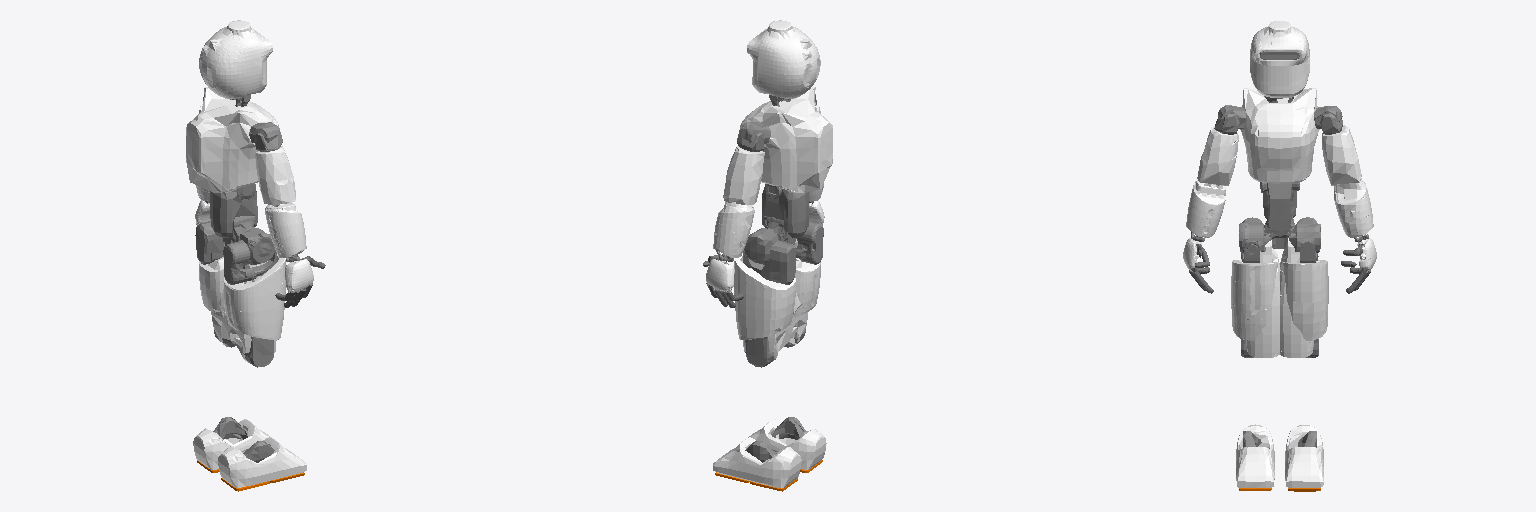
--- What the picture shows (computed from the rendered views, not written in the file) ---
3 views of the same robot in one strip: view 1: azimuth 30°, elevation 25°; view 2: azimuth 150°, elevation 25°; view 3: azimuth 270°, elevation 25° (orthographic).
Model ergoCub with 205 links and 204 joints (57 revolute, 147 fixed), rooted at root_link, posed all joints at 0 but 12 set to mid-range because 0 is outside their limits (r_middle_prox = 0.8356, r_pinkie_prox = 0.8352, r_ring_prox = 0.8356, r_thumb_prox = 0.8171, r_pinkie_dist = 0.828, r_index_prox = 0.8356, +6 more).
Links seen in each view (by area): view 1: chest, head, r_hip_3, r_ankle_2, r_upper_arm, r_forearm, l_ankle_2, torso_1, r_hip_2, l_hip_3, l_hip_2, r_hip_1 (+3 smaller); view 2: chest, head, l_hip_3, l_ankle_2, l_upper_arm, l_forearm, torso_1, r_ankle_2, l_hip_2, r_hip_3, r_hip_2, l_hip_1 (+2 smaller); view 3: chest, head, r_hip_3, l_hip_3, r_ankle_2, l_ankle_2, r_upper_arm, l_forearm, l_upper_arm, r_forearm, l_lower_leg, r_lower_leg (+3 smaller).
Link boxes in pixels (x1=…): chest: x1=186, y1=87, x2=278, y2=192; head: x1=199, y1=20, x2=272, y2=98; r_hip_3: x1=223, y1=255, x2=285, y2=339; r_ankle_2: x1=218, y1=437, x2=306, y2=487; r_upper_arm: x1=255, y1=146, x2=295, y2=204; r_forearm: x1=265, y1=203, x2=306, y2=257; l_ankle_2: x1=193, y1=419, x2=269, y2=469; torso_1: x1=210, y1=189, x2=257, y2=237; r_hip_2: x1=223, y1=240, x2=276, y2=284; l_hip_3: x1=199, y1=257, x2=223, y2=316; l_hip_2: x1=195, y1=221, x2=224, y2=264; r_hip_1: x1=240, y1=228, x2=274, y2=264; chest: x1=740, y1=87, x2=832, y2=192; head: x1=747, y1=20, x2=820, y2=98; l_hip_3: x1=734, y1=253, x2=795, y2=339; l_ankle_2: x1=713, y1=437, x2=801, y2=488; l_upper_arm: x1=723, y1=146, x2=764, y2=204; l_forearm: x1=713, y1=201, x2=754, y2=257; torso_1: x1=762, y1=184, x2=808, y2=237; r_ankle_2: x1=748, y1=419, x2=826, y2=469; l_hip_2: x1=743, y1=240, x2=795, y2=284; r_hip_3: x1=795, y1=258, x2=820, y2=317; r_hip_2: x1=796, y1=221, x2=823, y2=264; l_hip_1: x1=744, y1=228, x2=779, y2=264; chest: x1=1240, y1=88, x2=1319, y2=183; head: x1=1250, y1=21, x2=1309, y2=97; r_hip_3: x1=1231, y1=259, x2=1277, y2=340; l_hip_3: x1=1282, y1=260, x2=1328, y2=340; r_ankle_2: x1=1236, y1=424, x2=1274, y2=487; l_ankle_2: x1=1285, y1=425, x2=1323, y2=487; r_upper_arm: x1=1197, y1=126, x2=1238, y2=185; l_forearm: x1=1334, y1=178, x2=1373, y2=237; l_upper_arm: x1=1322, y1=125, x2=1361, y2=185; r_forearm: x1=1186, y1=180, x2=1225, y2=237; l_lower_leg: x1=1280, y1=238, x2=1313, y2=357; r_lower_leg: x1=1246, y1=240, x2=1279, y2=357.
Bounding box of the posed robot: 0.3293 × 0.5858 × 1.49 m (x, y, z).
67 mesh visuals loaded from 67 distinct referenced files (67 binary STL).

The robot description file, URDF, robot "ergoCub":
<?xml version="1.0"?>
<robot name="ergoCub">
  <link name="root_link">
    <inertial>
      <mass value="2.823751482824641"/>
      <origin xyz="0.0024748962432214403 -1.050794470993344e-4 0.023450368787955644" rpy="0 -0 0"/>
      <inertia ixx="0.005630606285299466" ixy="1.4369039688385168e-6" ixz="2.329934099458601e-5" iyy="0.004380033669258687" iyz="1.4098441290533537e-5" izz="0.003616681010808376"/>
    </inertial>
    <visual>
      <origin xyz="0 0 0" rpy="0 -0 0"/>
      <geometry>
        <mesh filename="package://ergoCub/meshes/simmechanics/sim_ecub_1-1_root_link.stl" scale="0.001 0.001 0.001"/>
      </geometry>
      <material name="">
        <color rgba="0.6 0.6 0.6 1"/>
      </material>
    </visual>
    <collision>
      <origin xyz="0 0 0" rpy="0 -0 0"/>
      <geometry>
        <mesh filename="package://ergoCub/meshes/simmechanics/sim_ecub_1-1_root_link.stl" scale="0.001 0.001 0.001"/>
      </geometry>
      <material name="">
        <color rgba="0.6 0.6 0.6 1"/>
      </material>
    </collision>
  </link>
  <joint name="l_hip_pitch" type="revolute">
    <origin xyz="0.02109999999999964 0.050500000000000836 1.942890293094024e-16" rpy="3.958535957527503e-15 3.810968172190701e-15 1.167434911886406e-16"/>
    <axis xyz="-5.772831379991284e-17 -1 -1.3843833381666392e-17"/>
    <parent link="root_link"/>
    <child link="l_hip_1"/>
    <limit lower="-0.767944870877505" upper="1.9198621771937625" effort="1e+9" velocity="1e+9"/>
    <dynamics damping="2" friction="0"/>
  </joint>
  <link name="l_hip_1">
    <inertial>
      <mass value="2.231768868859629"/>
      <origin xyz="-0.0040154224851623455 0.028247280560774652 -6.811143992383195e-4" rpy="0 -0 0"/>
      <inertia ixx="0.002210921814931002" ixy="5.971255499379551e-5" ixz="-1.5432160879022988e-5" iyy="0.002695326128467937" iyz="-5.838535051658118e-6" izz="0.0024610381641843883"/>
    </inertial>
    <visual>
      <origin xyz="0 0 0" rpy="0 -0 0"/>
      <geometry>
        <mesh filename="package://ergoCub/meshes/simmechanics/sim_ecub_1-1_l_hip_1.stl" scale="0.001 0.001 0.001"/>
      </geometry>
      <material name="">
        <color rgba="0.6 0.6 0.6 1"/>
      </material>
    </visual>
    <collision>
      <origin xyz="0 0 0" rpy="0 -0 0"/>
      <geometry>
        <mesh filename="package://ergoCub/meshes/simmechanics/sim_ecub_1-1_l_hip_1.stl" scale="0.001 0.001 0.001"/>
      </geometry>
      <material name="">
        <color rgba="0.6 0.6 0.6 1"/>
      </material>
    </collision>
  </link>
  <joint name="r_hip_pitch" type="revolute">
    <origin xyz="0.021099999999999643 -0.05049999999999917 -2.220446049250313e-16" rpy="3.986223624290839e-15 9.012328668422501e-14 4.978996250550603e-17"/>
    <axis xyz="-1.0880513989386065e-16 -1 1.384383338166008e-17"/>
    <parent link="root_link"/>
    <child link="r_hip_1"/>
    <limit lower="-0.767944870877505" upper="1.9198621771937625" effort="1e+9" velocity="1e+9"/>
    <dynamics damping="2" friction="0"/>
  </joint>
  <link name="r_hip_1">
    <inertial>
      <mass value="2.2320852637398954"/>
      <origin xyz="-0.004032117730258793 -0.028249385885545365 -6.739019720393702e-4" rpy="0 -0 0"/>
      <inertia ixx="0.00221225947743564" ixy="-6.126720536020865e-5" ixz="-1.5035655169601288e-5" iyy="0.002695545891317729" iyz="6.443355522460266e-6" izz="0.0024608876750051726"/>
    </inertial>
    <visual>
      <origin xyz="0 0 0" rpy="0 -0 0"/>
      <geometry>
        <mesh filename="package://ergoCub/meshes/simmechanics/sim_ecub_1-1_r_hip_1.stl" scale="0.001 0.001 0.001"/>
      </geometry>
      <material name="">
        <color rgba="0.6 0.6 0.6 1"/>
      </material>
    </visual>
    <collision>
      <origin xyz="0 0 0" rpy="0 -0 0"/>
      <geometry>
        <mesh filename="package://ergoCub/meshes/simmechanics/sim_ecub_1-1_r_hip_1.stl" scale="0.001 0.001 0.001"/>
      </geometry>
      <material name="">
        <color rgba="0.6 0.6 0.6 1"/>
      </material>
    </collision>
  </link>
  <joint name="torso_roll" type="revolute">
    <origin xyz="-2.2569638495687323e-18 5.551115123122706e-20 0.060500000000000054" rpy="0 -2.2470258116354473e-44 5.656623812198896e-30"/>
    <axis xyz="-1 0 1.4239886692466155e-15"/>
    <parent link="root_link"/>
    <child link="torso_1"/>
    <limit lower="-0.4363323129985824" upper="0.4363323129985824" effort="1e+9" velocity="1e+9"/>
    <dynamics damping="2" friction="0"/>
  </joint>
  <link name="torso_1">
    <inertial>
      <mass value="2.0645667"/>
      <origin xyz="-0.00963997362197503 6.168494736287859e-4 0.08244231288506354" rpy="0 -0 0"/>
      <inertia ixx="0.007406085999999999" ixy="0" ixz="0" iyy="0.0059470732999999994" iyz="0" izz="0.0031780111"/>
    </inertial>
    <visual>
      <origin xyz="0 0 0" rpy="0 -0 0"/>
      <geometry>
        <mesh filename="package://ergoCub/meshes/simmechanics/sim_ecub_1-1_torso_1.stl" scale="0.001 0.001 0.001"/>
      </geometry>
      <material name="">
        <color rgba="0.6 0.6 0.6 1"/>
      </material>
    </visual>
    <collision>
      <origin xyz="0 0 0" rpy="0 -0 0"/>
      <geometry>
        <mesh filename="package://ergoCub/meshes/simmechanics/sim_ecub_1-1_torso_1.stl" scale="0.001 0.001 0.001"/>
      </geometry>
      <material name="">
        <color rgba="0.6 0.6 0.6 1"/>
      </material>
    </collision>
  </link>
  <joint name="torso_pitch" type="revolute">
    <origin xyz="-5.38113111978747e-17 1.2992659680832192e-16 0.11800000000000001" rpy="3.9326723383983675e-15 1.4212932480528843e-15 -6.055761952500853e-16"/>
    <axis xyz="-6.055761952500853e-16 1 3.970745251080037e-17"/>
    <parent link="torso_1"/>
    <child link="torso_2"/>
    <limit lower="-0.3490658503988659" upper="1.1344640137963142" effort="1e+9" velocity="1e+9"/>
    <dynamics damping="2" friction="0"/>
  </joint>
  <link name="torso_2">
    <inertial>
      <mass value="0.8774795142816888"/>
      <origin xyz="4.802946268065555e-4 -0.00891620641408551 0.020260818168849178" rpy="0 -0 0"/>
      <inertia ixx="0.00163419325186844" ixy="-4.300310450507801e-6" ixz="-8.256581531804982e-6" iyy="8.541952711452276e-4" iyz="-1.5615184359413345e-4" izz="0.0013041130771172063"/>
    </inertial>
    <visual>
      <origin xyz="0 0 0" rpy="0 -0 0"/>
      <geometry>
        <mesh filename="package://ergoCub/meshes/simmechanics/sim_ecub_1-2_torso_2.stl" scale="0.001 0.001 0.001"/>
      </geometry>
      <material name="">
        <color rgba="0.6 0.6 0.6 1"/>
      </material>
    </visual>
    <collision>
      <origin xyz="0 0 0" rpy="0 -0 0"/>
      <geometry>
        <mesh filename="package://ergoCub/meshes/simmechanics/sim_ecub_1-2_torso_2.stl" scale="0.001 0.001 0.001"/>
      </geometry>
      <material name="">
        <color rgba="0.6 0.6 0.6 1"/>
      </material>
    </collision>
  </link>
  <joint name="torso_yaw" type="revolute">
    <origin xyz="2.2536066041728058e-15 2.936116736753903e-17 0.0744999999999999" rpy="-1.3484181051718323e-16 3.002886226091647e-14 5.984762474963518e-16"/>
    <axis xyz="5.752916687998266e-17 -1.447419303903344e-22 -1"/>
    <parent link="torso_2"/>
    <child link="chest"/>
    <limit lower="-0.7853981633974483" upper="0.7853981633974483" effort="1e+9" velocity="1e+9"/>
    <dynamics damping="2" friction="0"/>
  </joint>
  <link name="chest">
    <inertial>
      <mass value="8.169083432788879"/>
      <origin xyz="-0.03577155414469084 -4.1126494112009727e-4 0.08258002384912994" rpy="0 -0 0"/>
      <inertia ixx="0.0410145221879172" ixy="4.588408723680847e-5" ixz="2.1271671513563295e-5" iyy="0.05435611762471025" iyz="-1.1928930234383851e-4" izz="0.04217566475312"/>
    </inertial>
    <visual>
      <origin xyz="0 0 0" rpy="0 -0 0"/>
      <geometry>
        <mesh filename="package://ergoCub/meshes/simmechanics/sim_ecub_1-3_chest_wo_neck.stl" scale="0.001 0.001 0.001"/>
      </geometry>
      <material name="">
        <color rgba="1 1 1 1"/>
      </material>
    </visual>
    <collision>
      <origin xyz="0 0 0" rpy="0 -0 0"/>
      <geometry>
        <mesh filename="package://ergoCub/meshes/simmechanics/sim_ecub_1-3_chest_wo_neck.stl" scale="0.001 0.001 0.001"/>
      </geometry>
      <material name="">
        <color rgba="1 1 1 1"/>
      </material>
    </collision>
  </link>
  <joint name="l_shoulder_pitch" type="revolute">
    <origin xyz="-0.013518676842609795 0.06704761117227473 0.12351981080941817" rpy="0.2536123238732619 -0.052031605504489334 -0.27527873241387424"/>
    <axis xyz="-1.0373646386341306e-15 1.0000000000000002 3.0531133177191805e-16"/>
    <parent link="chest"/>
    <child link="l_shoulder_1"/>
    <limit lower="-2.9670597283903604" upper="0.6108652381980153" effort="1e+9" velocity="1e+9"/>
    <dynamics damping="2" friction="0"/>
  </joint>
  <link name="l_shoulder_1">
    <inertial>
      <mass value="0.7913756606310043"/>
      <origin xyz="1.4824275422014796e-4 0.06782971819041986 5.036196460999898e-4" rpy="0 -0 0"/>
      <inertia ixx="0.01" ixy="0" ixz="0" iyy="0.01" iyz="0" izz="0.01"/>
    </inertial>
    <visual>
      <origin xyz="0 0 0" rpy="0 -0 0"/>
      <geometry>
        <mesh filename="package://ergoCub/meshes/simmechanics/sim_ecub_1-1_l_shoulder_1.stl" scale="0.001 0.001 0.001"/>
      </geometry>
      <material name="">
        <color rgba="0.6 0.6 0.6 1"/>
      </material>
    </visual>
    <collision>
      <origin xyz="0 0 0" rpy="0 -0 0"/>
      <geometry>
        <mesh filename="package://ergoCub/meshes/simmechanics/sim_ecub_1-1_l_shoulder_1.stl" scale="0.001 0.001 0.001"/>
      </geometry>
      <material name="">
        <color rgba="0.6 0.6 0.6 1"/>
      </material>
    </collision>
  </link>
  <joint name="r_shoulder_pitch" type="revolute">
    <origin xyz="-0.013518676842610022 -0.06704761117227463 0.12351981080941811" rpy="-0.25360828496584126 -0.051731522979371364 0.27520084887423063"/>
    <axis xyz="-4.2500725161431774e-16 1.0000000000000002 3.58046925441613e-15"/>
    <parent link="chest"/>
    <child link="r_shoulder_1"/>
    <limit lower="-2.9670597283903604" upper="0.6108652381980153" effort="1e+9" velocity="1e+9"/>
    <dynamics damping="2" friction="0"/>
  </joint>
  <link name="r_shoulder_1">
    <inertial>
      <mass value="0.7922822880502421"/>
      <origin xyz="1.7243569867328445e-4 -0.06784040318161474 4.7600094527533443e-4" rpy="0 -0 0"/>
      <inertia ixx="0.01" ixy="0" ixz="0" iyy="0.01" iyz="0" izz="0.01"/>
    </inertial>
    <visual>
      <origin xyz="0 0 0" rpy="0 -0 0"/>
      <geometry>
        <mesh filename="package://ergoCub/meshes/simmechanics/sim_ecub_1-1_r_shoulder_1.stl" scale="0.001 0.001 0.001"/>
      </geometry>
      <material name="">
        <color rgba="0.6 0.6 0.6 1"/>
      </material>
    </visual>
    <collision>
      <origin xyz="0 0 0" rpy="0 -0 0"/>
      <geometry>
        <mesh filename="package://ergoCub/meshes/simmechanics/sim_ecub_1-1_r_shoulder_1.stl" scale="0.001 0.001 0.001"/>
      </geometry>
      <material name="">
        <color rgba="0.6 0.6 0.6 1"/>
      </material>
    </collision>
  </link>
  <joint name="neck_fixed_joint" type="fixed">
    <origin xyz="-0.0037500000000000224 7.160617258996019e-18 0.18230000000000013" rpy="1.1636614291924176e-16 -5.361598973742056e-17 -1.1031230768714217e-15"/>
    <parent link="chest"/>
    <child link="neck_1"/>
  </joint>
  <link name="neck_1">
    <inertial>
      <mass value="0.25627387976979793"/>
      <origin xyz="0.006551572810114587 -0.0027050942316333556 0.03528711380390005" rpy="0 -0 0"/>
      <inertia ixx="1.9974023662230547e-4" ixy="2.651751037073238e-7" ixz="-1.54446091528798e-5" iyy="1.2271241386755159e-4" iyz="4.168707548284002e-6" izz="1.2470608919718895e-4"/>
    </inertial>
    <visual>
      <origin xyz="0 0 0" rpy="0 -0 0"/>
      <geometry>
        <mesh filename="package://ergoCub/meshes/simmechanics/sim_ecub_1-3_head_neck_1.stl" scale="0.001 0.001 0.001"/>
      </geometry>
      <material name="">
        <color rgba="0.6 0.6 0.6 1"/>
      </material>
    </visual>
    <collision>
      <origin xyz="0 0 0" rpy="0 -0 0"/>
      <geometry>
        <mesh filename="package://ergoCub/meshes/simmechanics/sim_ecub_1-3_head_neck_1.stl" scale="0.001 0.001 0.001"/>
      </geometry>
      <material name="">
        <color rgba="0.6 0.6 0.6 1"/>
      </material>
    </collision>
  </link>
  <joint name="neck_pitch" type="revolute">
    <origin xyz="0.008650000000000047 6.05379956331667e-17 0.04500000000000004" rpy="-3.5421458065567654e-16 5.094543454338989e-17 -1.095302133069358e-15"/>
    <axis xyz="1.095302133069358e-15 -1 -3.5421458065567787e-16"/>
    <parent link="neck_1"/>
    <child link="neck_2"/>
    <limit lower="-0.7853981633974483" upper="0.3839724354387525" effort="1e+9" velocity="1e+9"/>
    <dynamics damping="2" friction="0"/>
  </joint>
  <link name="neck_2">
    <inertial>
      <mass value="0.2945770397905417"/>
      <origin xyz="-0.010459771530164481 2.0082617155355452e-4 0.009087209541868035" rpy="0 -0 0"/>
      <inertia ixx="1.2591560224570937e-4" ixy="-3.064039041078833e-6" ixz="2.6108646064688653e-6" iyy="2.3611402495028025e-4" iyz="-1.0387919568957451e-6" izz="3.055276927828535e-4"/>
    </inertial>
    <visual>
      <origin xyz="0 0 0" rpy="0 -0 0"/>
      <geometry>
        <mesh filename="package://ergoCub/meshes/simmechanics/sim_ecub_1-3_head_neck_2.stl" scale="0.001 0.001 0.001"/>
      </geometry>
      <material name="">
        <color rgba="0.6 0.6 0.6 1"/>
      </material>
    </visual>
    <collision>
      <origin xyz="0 0 0" rpy="0 -0 0"/>
      <geometry>
        <mesh filename="package://ergoCub/meshes/simmechanics/sim_ecub_1-3_head_neck_2.stl" scale="0.001 0.001 0.001"/>
      </geometry>
      <material name="">
        <color rgba="0.6 0.6 0.6 1"/>
      </material>
    </collision>
  </link>
  <joint name="neck_roll" type="revolute">
    <origin xyz="1.727699395961263e-8 7.447476889056201e-16 0.010999999999983912" rpy="-5.29209836021509e-15 1.57063582308918e-6 7.312551718703137e-15"/>
    <axis xyz="0.9999999999987667 5.181477640600676e-15 1.5706357525073104e-6"/>
    <parent link="neck_2"/>
    <child link="neck_3"/>
    <limit lower="-0.3490658503988659" upper="0.3490658503988659" effort="1e+9" velocity="1e+9"/>
    <dynamics damping="2" friction="0"/>
  </joint>
  <link name="neck_3">
    <inertial>
      <mass value="0.26196252682452986"/>
      <origin xyz="-0.01128743581519258 1.9992128363116957e-7 0.0441664976596047" rpy="0 -0 0"/>
      <inertia ixx="2.1042529365574477e-4" ixy="1.6665678269668257e-8" ixz="-8.803107073461479e-5" iyy="2.703191160638858e-4" iyz="0" izz="1.0757199897321482e-4"/>
    </inertial>
    <visual>
      <origin xyz="0 0 0" rpy="0 -0 0"/>
      <geometry>
        <mesh filename="package://ergoCub/meshes/simmechanics/sim_ecub_1-3_head_neck_3.stl" scale="0.001 0.001 0.001"/>
      </geometry>
      <material name="">
        <color rgba="0.6 0.6 0.6 1"/>
      </material>
    </visual>
    <collision>
      <origin xyz="0 0 0" rpy="0 -0 0"/>
      <geometry>
        <mesh filename="package://ergoCub/meshes/simmechanics/sim_ecub_1-3_head_neck_3.stl" scale="0.001 0.001 0.001"/>
      </geometry>
      <material name="">
        <color rgba="0.6 0.6 0.6 1"/>
      </material>
    </collision>
  </link>
  <joint name="neck_yaw" type="revolute">
    <origin xyz="-1.2588645634161594e-7 -3.511736027695927e-16 0.06914999999990112" rpy="5.476218470552679e-15 -1.5706357540219146e-6 5.308786623366525e-15"/>
    <axis xyz="1.5706357540212687e-6 5.476218470545924e-15 0.9999999999987664"/>
    <parent link="neck_3"/>
    <child link="head"/>
    <limit lower="-0.7853981633974483" upper="0.7853981633974483" effort="1e+9" velocity="1e+9"/>
    <dynamics damping="2" friction="0"/>
  </joint>
  <link name="head">
    <inertial>
      <mass value="1.6902682"/>
      <origin xyz="-0.01620091412622722 -0.002268813231724542 0.03500744217497026" rpy="0 -0 0"/>
      <inertia ixx="0.0097840569" ixy="0" ixz="0" iyy="0.010869342" iyz="0" izz="0.0070099259"/>
    </inertial>
    <visual>
      <origin xyz="0 0 0" rpy="0 -0 0"/>
      <geometry>
        <mesh filename="package://ergoCub/meshes/simmechanics/sim_ecub_1-1_head.stl" scale="0.001 0.001 0.001"/>
      </geometry>
      <material name="">
        <color rgba="1 1 1 1"/>
      </material>
    </visual>
    <collision>
      <origin xyz="0 0 0" rpy="0 -0 0"/>
      <geometry>
        <mesh filename="package://ergoCub/meshes/simmechanics/sim_ecub_1-1_head.stl" scale="0.001 0.001 0.001"/>
      </geometry>
      <material name="">
        <color rgba="1 1 1 1"/>
      </material>
    </collision>
  </link>
  <joint name="camera_tilt" type="revolute">
    <origin xyz="0.06251000000000004 -3.0000000001050474e-5 0.07639250000000042" rpy="9.111439807333146e-15 2.5958199361708845e-4 1.6567881612289887e-15"/>
    <axis xyz="2.46237494755185e-16 -1 -1.3590792672083997e-15"/>
    <parent link="head"/>
    <child link="realsense"/>
    <limit lower="-0.5235987755982988" upper="0.5235987755982988" effort="1e+9" velocity="1e+9"/>
    <dynamics damping="2" friction="0"/>
  </joint>
  <link name="realsense">
    <inertial>
      <mass value="0.0973042045264468"/>
      <origin xyz="-0.01566548310600667 0.004519995218644514 0.002745610154123612" rpy="0 -0 0"/>
      <inertia ixx="0.01" ixy="0" ixz="0" iyy="0.01" iyz="0" izz="0.01"/>
    </inertial>
    <visual>
      <origin xyz="0 0 0" rpy="0 -0 0"/>
      <geometry>
        <mesh filename="package://ergoCub/meshes/simmechanics/sim_ecub_1-1_realsense.stl" scale="0.001 0.001 0.001"/>
      </geometry>
      <material name="">
        <color rgba="0.6 0.6 0.6 1"/>
      </material>
    </visual>
    <collision>
      <origin xyz="0 0 0" rpy="0 -0 0"/>
      <geometry>
        <mesh filename="package://ergoCub/meshes/simmechanics/sim_ecub_1-1_realsense.stl" scale="0.001 0.001 0.001"/>
      </geometry>
      <material name="">
        <color rgba="0.6 0.6 0.6 1"/>
      </material>
    </collision>
  </link>
  <joint name="r_shoulder_roll" type="revolute">
    <origin xyz="0.0074999999999997725 -0.09329999999999986 -3.0531133177191805e-16" rpy="-9.714451465470112e-15 9.776901510605285e-15 -5.773159728050809e-15"/>
    <axis xyz="-1.0000000000000009 -1.2316536679444543e-16 -6.800116025828547e-16"/>
    <parent link="r_shoulder_1"/>
    <child link="r_shoulder_2"/>
    <limit lower="-0.2617993877991494" upper="2.6179938779914944" effort="1e+9" velocity="1e+9"/>
    <dynamics damping="2" friction="0"/>
  </joint>
  <link name="r_shoulder_2">
    <inertial>
      <mass value="0.4392272062642899"/>
      <origin xyz="0.005113618901434032 -2.13348557806331e-4 -0.020425805469504787" rpy="0 -0 0"/>
      <inertia ixx="0.01" ixy="0" ixz="0" iyy="0.01" iyz="0" izz="0.01"/>
    </inertial>
    <visual>
      <origin xyz="0 0 0" rpy="0 -0 0"/>
      <geometry>
        <mesh filename="package://ergoCub/meshes/simmechanics/sim_ecub_1-1_r_shoulder_2.stl" scale="0.001 0.001 0.001"/>
      </geometry>
      <material name="">
        <color rgba="0.6 0.6 0.6 1"/>
      </material>
    </visual>
    <collision>
      <origin xyz="0 0 0" rpy="0 -0 0"/>
      <geometry>
        <mesh filename="package://ergoCub/meshes/simmechanics/sim_ecub_1-1_r_shoulder_2.stl" scale="0.001 0.001 0.001"/>
      </geometry>
      <material name="">
        <color rgba="0.6 0.6 0.6 1"/>
      </material>
    </collision>
  </link>
  <joint name="r_arm_ft_sensor" type="fixed">
    <origin xyz="-0.0068499999999999985 -8.326672684688674e-17 -0.05429999999999996" rpy="-1.942890293094024e-16 -1.8735013540549517e-16 1.5543122344752182e-15"/>
    <parent link="r_shoulder_2"/>
    <child link="r_shoulder_3"/>
  </joint>
  <link name="r_shoulder_3">
    <inertial>
      <mass value="0.271466272759966"/>
      <origin xyz="-8.31167799586717e-5 -3.0654831449927755e-5 -0.007966545320293866" rpy="0 -0 0"/>
      <inertia ixx="0.01" ixy="0" ixz="0" iyy="0.01" iyz="0" izz="0.01"/>
    </inertial>
    <visual>
      <origin xyz="0 0 0" rpy="0 -0 0"/>
      <geometry>
        <mesh filename="package://ergoCub/meshes/simmechanics/sim_ecub_1-1_r_shoulder_3.stl" scale="0.001 0.001 0.001"/>
      </geometry>
      <material name="">
        <color rgba="0.6 0.6 0.6 1"/>
      </material>
    </visual>
    <collision>
      <origin xyz="0 0 0" rpy="0 -0 0"/>
      <geometry>
        <mesh filename="package://ergoCub/meshes/simmechanics/sim_ecub_1-1_r_shoulder_3.stl" scale="0.001 0.001 0.001"/>
      </geometry>
      <material name="">
        <color rgba="0.6 0.6 0.6 1"/>
      </material>
    </collision>
  </link>
  <joint name="r_shoulder_yaw" type="revolute">
    <origin xyz="1.734723475976807e-17 5.551115123125783e-17 -0.022500000000000034" rpy="2.7755575615628914e-17 -2.0816681711721685e-16 7.438494264988546e-15"/>
    <axis xyz="1.5959455978986687e-16 1.11022302462516e-16 1"/>
    <parent link="r_shoulder_3"/>
    <child link="r_upper_arm"/>
    <limit lower="-0.9075712110370514" upper="1.4311699866353502" effort="1e+9" velocity="1e+9"/>
    <dynamics damping="2" friction="0"/>
  </joint>
  <link name="r_upper_arm">
    <inertial>
      <mass value="1.7722348545631907"/>
      <origin xyz="1.4699786491786937e-4 -0.0023354938418406186 -0.05011711267210951" rpy="0 -0 0"/>
      <inertia ixx="0.0034219198528275844" ixy="3.081029189714289e-5" ixz="2.5743017599563002e-5" iyy="0.003510878854314856" iyz="-1.0938393403810045e-4" izz="0.0015765483711818404"/>
    </inertial>
    <visual>
      <origin xyz="0 0 0" rpy="0 -0 0"/>
      <geometry>
        <mesh filename="package://ergoCub/meshes/simmechanics/sim_ecub_1-1_r_upperarm.stl" scale="0.001 0.001 0.001"/>
      </geometry>
      <material name="">
        <color rgba="1 1 1 1"/>
      </material>
    </visual>
    <collision>
      <origin xyz="0 0 0" rpy="0 -0 0"/>
      <geometry>
        <mesh filename="package://ergoCub/meshes/simmechanics/sim_ecub_1-1_r_upperarm.stl" scale="0.001 0.001 0.001"/>
      </geometry>
      <material name="">
        <color rgba="1 1 1 1"/>
      </material>
    </collision>
  </link>
  <joint name="r_elbow" type="revolute">
    <origin xyz="0.009999999999999969 0.0015000000000003622 -0.12370000000000009" rpy="2.7755575615628852e-17 -5.835609773185979e-15 -7.882583474838586e-15"/>
    <axis xyz="-1.4398204850609735e-16 -1.0000000000000029 1.307287611496122e-14"/>
    <parent link="r_upper_arm"/>
    <child link="r_forearm"/>
    <limit lower="-0.08726646259971647" upper="2.0943951023931953" effort="1e+9" velocity="1e+9"/>
    <dynamics damping="2" friction="0"/>
  </joint>
  <link name="r_forearm">
    <inertial>
      <mass value="1.4760712424977045"/>
      <origin xyz="-0.01830687629472739 -0.002214887320910963 -0.08814943647449926" rpy="0 -0 0"/>
      <inertia ixx="0.009999999999999998" ixy="0" ixz="0" iyy="0.01" iyz="0" izz="0.01"/>
    </inertial>
    <visual>
      <origin xyz="0 0 0" rpy="0 -0 0"/>
      <geometry>
        <mesh filename="package://ergoCub/meshes/simmechanics/sim_ecub_1-1_r_forearm.stl" scale="0.001 0.001 0.001"/>
      </geometry>
      <material name="">
        <color rgba="1 1 1 1"/>
      </material>
    </visual>
    <collision>
      <origin xyz="0 0 0" rpy="0 -0 0"/>
      <geometry>
        <mesh filename="package://ergoCub/meshes/simmechanics/sim_ecub_1-1_r_forearm.stl" scale="0.001 0.001 0.001"/>
      </geometry>
      <material name="">
        <color rgba="1 1 1 1"/>
      </material>
    </collision>
  </link>
  <joint name="r_wrist_yaw" type="revolute">
    <origin xyz="-0.014999999999999706 -0.001999999999996449 -0.1943500000000011" rpy="-2.109423746787793e-15 -1.1622647289044608e-14 -2.7755575615628846e-15"/>
    <axis xyz="5.613565168260975e-15 -1.2656542480726807e-14 1.000000000000002"/>
    <parent link="r_forearm"/>
    <child link="r_wrist_1"/>
    <limit lower="-1.6057029118347832" upper="1.6057029118347832" effort="1e+9" velocity="1e+9"/>
    <dynamics damping="2" friction="0"/>
  </joint>
  <link name="r_wrist_1">
    <inertial>
      <mass value="0.12269276206782376"/>
      <origin xyz="-1.4544607175177166e-4 1.559247070407055e-4 0.022377800821402394" rpy="0 -0 0"/>
      <inertia ixx="0.01" ixy="0" ixz="0" iyy="0.01" iyz="0" izz="0.01"/>
    </inertial>
    <visual>
      <origin xyz="0 0 0" rpy="0 -0 0"/>
      <geometry>
        <mesh filename="package://ergoCub/meshes/simmechanics/sim_ecub_1-1_r_wrist_1.stl" scale="0.001 0.001 0.001"/>
      </geometry>
      <material name="">
        <color rgba="0.6 0.6 0.6 1"/>
      </material>
    </visual>
    <collision>
      <origin xyz="0 0 0" rpy="0 -0 0"/>
      <geometry>
        <mesh filename="package://ergoCub/meshes/simmechanics/sim_ecub_1-1_r_wrist_1.stl" scale="0.001 0.001 0.001"/>
      </geometry>
      <material name="">
        <color rgba="0.6 0.6 0.6 1"/>
      </material>
    </collision>
  </link>
  <joint name="r_wrist_roll" type="revolute">
    <origin xyz="1.1102230246251565e-16 -2.7755575615628914e-17 5.551115123125783e-17" rpy="4.1633363423443375e-16 -1.734723475976807e-16 -3.88578058618805e-16"/>
    <axis xyz="0.9999999999999994 1.4051260155412125e-16 -3.6082248300317597e-16"/>
    <parent link="r_wrist_1"/>
    <child link="r_wrist_2"/>
    <limit lower="-0.3490658503988659" upper="0.5235987755982988" effort="1e+9" velocity="1e+9"/>
    <dynamics damping="2" friction="0"/>
  </joint>
  <link name="r_wrist_2">
    <inertial>
      <mass value="0.021188357245777188"/>
      <origin xyz="5.05499045400093e-11 7.897372606293362e-4 -0.004696960055006527" rpy="0 -0 0"/>
      <inertia ixx="0.01" ixy="0" ixz="0" iyy="0.01" iyz="0" izz="0.01"/>
    </inertial>
    <visual>
      <origin xyz="0 0 0" rpy="0 -0 0"/>
      <geometry>
        <mesh filename="package://ergoCub/meshes/simmechanics/sim_ecub_1-1_r_wrist_2.stl" scale="0.001 0.001 0.001"/>
      </geometry>
      <material name="">
        <color rgba="0.5 0.5 0.5 1"/>
      </material>
    </visual>
    <collision>
      <origin xyz="0 0 0" rpy="0 -0 0"/>
      <geometry>
        <mesh filename="package://ergoCub/meshes/simmechanics/sim_ecub_1-1_r_wrist_2.stl" scale="0.001 0.001 0.001"/>
      </geometry>
      <material name="">
        <color rgba="0.5 0.5 0.5 1"/>
      </material>
    </collision>
  </link>
  <joint name="r_wrist_pitch" type="revolute">
    <origin xyz="-1.734723475976807e-17 1.3877787807814457e-16 0" rpy="4.440892098500627e-16 -3.469446951953614e-17 5.551115123125785e-17"/>
    <axis xyz="-3.1225022567582546e-17 -1 -6.38378239159465e-16"/>
    <parent link="r_wrist_2"/>
    <child link="r_hand_palm"/>
    <limit lower="-0.3490658503988659" upper="0.3490658503988659" effort="1e+9" velocity="1e+9"/>
    <dynamics damping="2" friction="0"/>
  </joint>
  <link name="r_hand_palm">
    <inertial>
      <mass value="0.2020068404688116"/>
      <origin xyz="-0.003982157972782507 -0.0021135289059891482 -0.05842371394186491" rpy="0 -0 0"/>
      <inertia ixx="0.01" ixy="0" ixz="0" iyy="0.01" iyz="0" izz="0.01"/>
    </inertial>
    <visual>
      <origin xyz="0 0 0" rpy="0 -0 0"/>
      <geometry>
        <mesh filename="package://ergoCub/meshes/simmechanics/sim_ecub_1-1_r_hand_palm.stl" scale="0.001 0.001 0.001"/>
      </geometry>
      <material name="">
        <color rgba="1 1 1 1"/>
      </material>
    </visual>
    <collision>
      <origin xyz="0 0 0" rpy="0 -0 0"/>
      <geometry>
        <mesh filename="package://ergoCub/meshes/simmechanics/sim_ecub_1-1_r_hand_palm.stl" scale="0.001 0.001 0.001"/>
      </geometry>
      <material name="">
        <color rgba="1 1 1 1"/>
      </material>
    </collision>
  </link>
  <joint name="r_index_add" type="revolute">
    <origin xyz="0.022499999999999742 0.0015000000000002789 -0.06859999999999963" rpy="-1.2770461711840311e-15 0.29670597283904027 3.141592653589792"/>
    <axis xyz="-4.834212114732264e-16 -0.9999999999999998 1.937758094941441e-15"/>
    <parent link="r_hand_palm"/>
    <child link="r_hand_index_1"/>
    <limit lower="0" upper="0.2617993877991494" effort="1e+9" velocity="1e+9"/>
    <dynamics damping="2" friction="0"/>
  </joint>
  <link name="r_hand_index_1">
    <inertial>
      <mass value="0.019232477290189804"/>
      <origin xyz="-0.008420124408709713 0.003850331678233287 -0.01714942611279774" rpy="0 -0 0"/>
      <inertia ixx="0.01" ixy="0" ixz="0" iyy="0.01" iyz="0" izz="0.01"/>
    </inertial>
    <visual>
      <origin xyz="0 0 0" rpy="0 -0 0"/>
      <geometry>
        <mesh filename="package://ergoCub/meshes/simmechanics/sim_ecub_1-1_r_hand_index_1.stl" scale="0.001 0.001 0.001"/>
      </geometry>
      <material name="">
        <color rgba="0.5 0.5 0.5 1"/>
      </material>
    </visual>
    <collision>
      <origin xyz="0 0 0" rpy="0 -0 0"/>
      <geometry>
        <mesh filename="package://ergoCub/meshes/simmechanics/sim_ecub_1-1_r_hand_index_1.stl" scale="0.001 0.001 0.001"/>
      </geometry>
      <material name="">
        <color rgba="0.5 0.5 0.5 1"/>
      </material>
    </collision>
  </link>
  <joint name="r_middle_prox" type="revolute">
    <origin xyz="0.009600000000000244 0.0015000000000005564 -0.10299999999999951" rpy="-1.693090112553364e-15 1.8318679906315083e-15 3.1415926535897927"/>
    <axis xyz="-0.9999999999999996 -4.395789288125233e-15 6.383782391594615e-16"/>
    <parent link="r_hand_palm"/>
    <child link="r_hand_middle_1"/>
    <limit lower="0.10035643198967395" upper="1.5707963267948966" effort="1e+9" velocity="1e+9"/>
    <dynamics damping="2" friction="0"/>
  </joint>
  <link name="r_hand_middle_1">
    <inertial>
      <mass value="0.007486365997467528"/>
      <origin xyz="5.610258533731913e-5 0.0011131046827904112 -0.01742880983276912" rpy="0 -0 0"/>
      <inertia ixx="0.01" ixy="0" ixz="0" iyy="0.01" iyz="0" izz="0.01"/>
    </inertial>
    <visual>
      <origin xyz="0 0 0" rpy="0 -0 0"/>
      <geometry>
        <mesh filename="package://ergoCub/meshes/simmechanics/sim_ecub_1-1_r_hand_middle_1.stl" scale="0.001 0.001 0.001"/>
      </geometry>
      <material name="">
        <color rgba="0.5 0.5 0.5 1"/>
      </material>
    </visual>
    <collision>
      <origin xyz="0 0 0" rpy="0 -0 0"/>
      <geometry>
        <mesh filename="package://ergoCub/meshes/simmechanics/sim_ecub_1-1_r_hand_middle_1.stl" scale="0.001 0.001 0.001"/>
      </geometry>
      <material name="">
        <color rgba="0.5 0.5 0.5 1"/>
      </material>
    </collision>
  </link>
  <joint name="r_pinkie_prox" type="revolute">
    <origin xyz="-0.035982680943166055 0.0023777595791097117 -0.09206828131946351" rpy="4.109534399434918e-4 -0.08726646259972853 3.115412714809877"/>
    <axis xyz="-0.9999999999999999 4.162814570048828e-15 -1.5265566588595902e-16"/>
    <parent link="r_hand_palm"/>
    <child link="r_hand_pinkie_1"/>
    <limit lower="0.09965830028887622" upper="1.5707963267948966" effort="1e+9" velocity="1e+9"/>
    <dynamics damping="2" friction="0"/>
  </joint>
  <link name="r_hand_pinkie_1">
    <inertial>
      <mass value="0.006357585733638135"/>
      <origin xyz="3.616260147435227e-5 0.0012147050941129778 -0.015053109692718447" rpy="0 -0 0"/>
      <inertia ixx="0.01" ixy="0" ixz="0" iyy="0.01" iyz="0" izz="0.01"/>
    </inertial>
    <visual>
      <origin xyz="0 0 0" rpy="0 -0 0"/>
      <geometry>
        <mesh filename="package://ergoCub/meshes/simmechanics/sim_ecub_1-1_r_hand_pinkie_1.stl" scale="0.001 0.001 0.001"/>
      </geometry>
      <material name="">
        <color rgba="0.5 0.5 0.5 1"/>
      </material>
    </visual>
    <collision>
      <origin xyz="0 0 0" rpy="0 -0 0"/>
      <geometry>
        <mesh filename="package://ergoCub/meshes/simmechanics/sim_ecub_1-1_r_hand_pinkie_1.stl" scale="0.001 0.001 0.001"/>
      </geometry>
      <material name="">
        <color rgba="0.5 0.5 0.5 1"/>
      </material>
    </collision>
  </link>
  <joint name="r_ring_prox" type="revolute">
    <origin xyz="-0.015417755558119792 0.0018498137284708727 -0.09788067183884416" rpy="-1.6995574417295673e-15 -0.08726646259972864 3.115412714809877"/>
    <axis xyz="-0.9999999999999997 -3.654951333042828e-15 -4.8155923693116165e-15"/>
    <parent link="r_hand_palm"/>
    <child link="r_hand_ring_1"/>
    <limit lower="0.10035643198967395" upper="1.5707963267948966" effort="1e+9" velocity="1e+9"/>
    <dynamics damping="2" friction="0"/>
  </joint>
  <link name="r_hand_ring_1">
    <inertial>
      <mass value="0.007486365997467528"/>
      <origin xyz="5.6102585337293107e-5 0.0011131045999587252 -0.017428809839565573" rpy="0 -0 0"/>
      <inertia ixx="0.01" ixy="0" ixz="0" iyy="0.01" iyz="0" izz="0.01"/>
    </inertial>
    <visual>
      <origin xyz="0 0 0" rpy="0 -0 0"/>
      <geometry>
        <mesh filename="package://ergoCub/meshes/simmechanics/sim_ecub_1-1_r_hand_ring_1.stl" scale="0.001 0.001 0.001"/>
      </geometry>
      <material name="">
        <color rgba="0.5 0.5 0.5 1"/>
      </material>
    </visual>
    <collision>
      <origin xyz="0 0 0" rpy="0 -0 0"/>
      <geometry>
        <mesh filename="package://ergoCub/meshes/simmechanics/sim_ecub_1-1_r_hand_ring_1.stl" scale="0.001 0.001 0.001"/>
      </geometry>
      <material name="">
        <color rgba="0.5 0.5 0.5 1"/>
      </material>
    </collision>
  </link>
  <joint name="r_thumb_add" type="revolute">
    <origin xyz="0.02337486325639066 0.0030000000000002525 -0.03452383847355414" rpy="1.6806540148409136e-15 -0.22689280275926532 -9.685124831286626e-16"/>
    <axis xyz="1.1657341758564144e-15 2.392230977218984e-15 1"/>
    <parent link="r_hand_palm"/>
    <child link="r_hand_thumb_1"/>
    <limit lower="0" upper="1.7453292519943295" effort="1e+9" velocity="1e+9"/>
    <dynamics damping="2" friction="0"/>
  </joint>
  <link name="r_hand_thumb_1">
    <inertial>
      <mass value="0.02894174189037044"/>
      <origin xyz="0.0183756324403817 -4.55521018183358e-5 0.002126473485347669" rpy="0 -0 0"/>
      <inertia ixx="0.01" ixy="0" ixz="0" iyy="0.01" iyz="0" izz="0.01"/>
    </inertial>
    <visual>
      <origin xyz="0 0 0" rpy="0 -0 0"/>
      <geometry>
        <mesh filename="package://ergoCub/meshes/simmechanics/sim_ecub_1-1_r_hand_thumb_1.stl" scale="0.001 0.001 0.001"/>
      </geometry>
      <material name="">
        <color rgba="0.5 0.5 0.5 1"/>
      </material>
    </visual>
    <collision>
      <origin xyz="0 0 0" rpy="0 -0 0"/>
      <geometry>
        <mesh filename="package://ergoCub/meshes/simmechanics/sim_ecub_1-1_r_hand_thumb_1.stl" scale="0.001 0.001 0.001"/>
      </geometry>
      <material name="">
        <color rgba="0.5 0.5 0.5 1"/>
      </material>
    </collision>
  </link>
  <joint name="r_thumb_prox" type="revolute">
    <origin xyz="0.03807465449956031 0.0034691095803253136 -0.0036017448035495503" rpy="1.4307927286319264 0.19703059795893463 -1.4222071875351316"/>
    <axis xyz="-1.0000000000000007 -1.4127587988355117e-14 2.0990154059319366e-15"/>
    <parent link="r_hand_thumb_1"/>
    <child link="r_hand_thumb_2"/>
    <limit lower="0.06335545184739416" upper="1.5707963267948966" effort="1e+9" velocity="1e+9"/>
    <dynamics damping="2" friction="0"/>
  </joint>
  <link name="r_hand_thumb_2">
    <inertial>
      <mass value="0.00744305878263309"/>
      <origin xyz="1.1691406974989604e-5 3.0451621296398446e-4 -0.014894613060785539" rpy="0 -0 0"/>
      <inertia ixx="0.01" ixy="0" ixz="0" iyy="0.01" iyz="0" izz="0.01"/>
    </inertial>
    <visual>
      <origin xyz="0 0 0" rpy="0 -0 0"/>
      <geometry>
        <mesh filename="package://ergoCub/meshes/simmechanics/sim_ecub_1-1_r_hand_thumb_2.stl" scale="0.001 0.001 0.001"/>
      </geometry>
      <material name="">
        <color rgba="0.5 0.5 0.5 1"/>
      </material>
    </visual>
    <collision>
      <origin xyz="0 0 0" rpy="0 -0 0"/>
      <geometry>
        <mesh filename="package://ergoCub/meshes/simmechanics/sim_ecub_1-1_r_hand_thumb_2.stl" scale="0.001 0.001 0.001"/>
      </geometry>
      <material name="">
        <color rgba="0.5 0.5 0.5 1"/>
      </material>
    </collision>
  </link>
  <joint name="r_thumb_dist" type="revolute">
    <origin xyz="-1.6653345369377348e-16 -0.003710625528295375 -0.034835057889843965" rpy="-0.06328877395262113 1.7208456881689926e-15 1.4162282457874628e-14"/>
    <axis xyz="-1.0000000000000018 -2.949391298346234e-14 1.4388438388751082e-15"/>
    <parent link="r_hand_thumb_2"/>
    <child link="r_hand_thumb_3"/>
    <limit lower="0" upper="1.6074482410867774" effort="1e+9" velocity="1e+9"/>
    <dynamics damping="2" friction="0"/>
  </joint>
  <link name="r_hand_thumb_3">
    <inertial>
      <mass value="0.008481423658381124"/>
      <origin xyz="-2.8601851543103015e-5 0.002737889256839321 -0.016935937291633126" rpy="0 -0 0"/>
      <inertia ixx="0.01" ixy="0" ixz="0" iyy="0.01" iyz="0" izz="0.01"/>
    </inertial>
    <visual>
      <origin xyz="0 0 0" rpy="0 -0 0"/>
      <geometry>
        <mesh filename="package://ergoCub/meshes/simmechanics/sim_ecub_1-1_r_hand_thumb_3.stl" scale="0.001 0.001 0.001"/>
      </geometry>
      <material name="">
        <color rgba="0.5 0.5 0.5 1"/>
      </material>
    </visual>
    <collision>
      <origin xyz="0 0 0" rpy="0 -0 0"/>
      <geometry>
        <mesh filename="package://ergoCub/meshes/simmechanics/sim_ecub_1-1_r_hand_thumb_3.stl" scale="0.001 0.001 0.001"/>
      </geometry>
      <material name="">
        <color rgba="0.5 0.5 0.5 1"/>
      </material>
    </collision>
  </link>
  <joint name="r_ring_dist" type="revolute">
    <origin xyz="3.642919299551295e-17 -0.0014999999999998348 -0.04000000000000026" rpy="-1.3877787807814462e-16 -6.245004513516506e-17 -8.326672684688677e-17"/>
    <axis xyz="-0.9999999999999997 2.602085213965211e-16 -3.469446951953781e-18"/>
    <parent link="r_hand_ring_1"/>
    <child link="r_hand_ring_2"/>
    <limit lower="0" upper="1.5502014416213634" effort="1e+9" velocity="1e+9"/>
    <dynamics damping="2" friction="0"/>
  </joint>
  <link name="r_hand_ring_2">
    <inertial>
      <mass value="0.007251413355667432"/>
      <origin xyz="4.43251343077225e-5 0.00275470906266162 -0.018890876418029168" rpy="0 -0 0"/>
      <inertia ixx="0.01" ixy="0" ixz="0" iyy="0.01" iyz="0" izz="0.01"/>
    </inertial>
    <visual>
      <origin xyz="0 0 0" rpy="0 -0 0"/>
      <geometry>
        <mesh filename="package://ergoCub/meshes/simmechanics/sim_ecub_1-1_r_hand_ring_2.stl" scale="0.001 0.001 0.001"/>
      </geometry>
      <material name="">
        <color rgba="0.5 0.5 0.5 1"/>
      </material>
    </visual>
    <collision>
      <origin xyz="0 0 0" rpy="0 -0 0"/>
      <geometry>
        <mesh filename="package://ergoCub/meshes/simmechanics/sim_ecub_1-1_r_hand_ring_2.stl" scale="0.001 0.001 0.001"/>
      </geometry>
      <material name="">
        <color rgba="0.5 0.5 0.5 1"/>
      </material>
    </collision>
  </link>
  <joint name="r_pinkie_dist" type="revolute">
    <origin xyz="2.7755575615628914e-17 -0.001514193309379186 -0.034999388832118394" rpy="-0.0012956915198226962 1.3877787807814457e-17 -1.1102230246251568e-16"/>
    <axis xyz="-0.9999999999999999 1.0701582508147451e-15 -2.652958239131663e-15"/>
    <parent link="r_hand_pinkie_1"/>
    <child link="r_hand_pinkie_2"/>
    <limit lower="0.04852015320544236" upper="1.6074482410867774" effort="1e+9" velocity="1e+9"/>
    <dynamics damping="2" friction="0"/>
  </joint>
  <link name="r_hand_pinkie_2">
    <inertial>
      <mass value="0.007240237490764073"/>
      <origin xyz="2.1391072559044655e-5 0.0027712863562942003 -0.018930305880602127" rpy="0 -0 0"/>
      <inertia ixx="0.01" ixy="0" ixz="0" iyy="0.01" iyz="0" izz="0.01"/>
    </inertial>
    <visual>
      <origin xyz="0 0 0" rpy="0 -0 0"/>
      <geometry>
        <mesh filename="package://ergoCub/meshes/simmechanics/sim_ecub_1-1_r_hand_pinkie_2.stl" scale="0.001 0.001 0.001"/>
      </geometry>
      <material name="">
        <color rgba="0.5 0.5 0.5 1"/>
      </material>
    </visual>
    <collision>
      <origin xyz="0 0 0" rpy="0 -0 0"/>
      <geometry>
        <mesh filename="package://ergoCub/meshes/simmechanics/sim_ecub_1-1_r_hand_pinkie_2.stl" scale="0.001 0.001 0.001"/>
      </geometry>
      <material name="">
        <color rgba="0.5 0.5 0.5 1"/>
      </material>
    </collision>
  </link>
  <joint name="r_middle_dist" type="revolute">
    <origin xyz="9.020562075079397e-17 -0.001499999999999807 -0.040000000000000036" rpy="-7.535550952675337e-8 -8.326672684688674e-17 -5.551115123125785e-17"/>
    <axis xyz="-0.9999999999999996 -2.347081101431665e-15 3.233524386538358e-15"/>
    <parent link="r_hand_middle_1"/>
    <child link="r_hand_middle_2"/>
    <limit lower="0" upper="1.5502014416213634" effort="1e+9" velocity="1e+9"/>
    <dynamics damping="2" friction="0"/>
  </joint>
  <link name="r_hand_middle_2">
    <inertial>
      <mass value="0.007251413355667432"/>
      <origin xyz="4.432513430769475e-5 0.0027547091926723166 -0.018890876399070666" rpy="0 -0 0"/>
      <inertia ixx="0.01" ixy="0" ixz="0" iyy="0.01" iyz="0" izz="0.01"/>
    </inertial>
    <visual>
      <origin xyz="0 0 0" rpy="0 -0 0"/>
      <geometry>
        <mesh filename="package://ergoCub/meshes/simmechanics/sim_ecub_1-1_r_hand_middle_2.stl" scale="0.001 0.001 0.001"/>
      </geometry>
      <material name="">
        <color rgba="0.5 0.5 0.5 1"/>
      </material>
    </visual>
    <collision>
      <origin xyz="0 0 0" rpy="0 -0 0"/>
      <geometry>
        <mesh filename="package://ergoCub/meshes/simmechanics/sim_ecub_1-1_r_hand_middle_2.stl" scale="0.001 0.001 0.001"/>
      </geometry>
      <material name="">
        <color rgba="0.5 0.5 0.5 1"/>
      </material>
    </collision>
  </link>
  <joint name="r_index_prox" type="revolute">
    <origin xyz="-0.009192533317427906 -8.326672684688674e-17 -0.030713451316238316" rpy="1.1140400056415111e-4 7.632783294297951e-17 -3.8857805861880484e-16"/>
    <axis xyz="-0.9999999999999999 3.3790279562200132e-15 -2.061234122742923e-15"/>
    <parent link="r_hand_index_1"/>
    <child link="r_hand_index_2"/>
    <limit lower="0.10035643198967395" upper="1.5707963267948966" effort="1e+9" velocity="1e+9"/>
    <dynamics damping="2" friction="0"/>
  </joint>
  <link name="r_hand_index_2">
    <inertial>
      <mass value="0.007486365997467528"/>
      <origin xyz="5.610258533736423e-5 0.0011131050125119946 -0.01742880980571504" rpy="0 -0 0"/>
      <inertia ixx="0.01" ixy="0" ixz="0" iyy="0.01" iyz="0" izz="0.01"/>
    </inertial>
    <visual>
      <origin xyz="0 0 0" rpy="0 -0 0"/>
      <geometry>
        <mesh filename="package://ergoCub/meshes/simmechanics/sim_ecub_1-1_r_hand_index_2.stl" scale="0.001 0.001 0.001"/>
      </geometry>
      <material name="">
        <color rgba="0.5 0.5 0.5 1"/>
      </material>
    </visual>
    <collision>
      <origin xyz="0 0 0" rpy="0 -0 0"/>
      <geometry>
        <mesh filename="package://ergoCub/meshes/simmechanics/sim_ecub_1-1_r_hand_index_2.stl" scale="0.001 0.001 0.001"/>
      </geometry>
      <material name="">
        <color rgba="0.5 0.5 0.5 1"/>
      </material>
    </collision>
  </link>
  <joint name="r_index_dist" type="revolute">
    <origin xyz="6.938893903907228e-17 -0.001500000000000029 -0.039999999999999925" rpy="-8.326672684688677e-17 2.7755575615628914e-17 -3.3306690738754706e-16"/>
    <axis xyz="-0.9999999999999998 -3.67761376907083e-16 -7.077671781985371e-16"/>
    <parent link="r_hand_index_2"/>
    <child link="r_hand_index_3"/>
    <limit lower="0" upper="1.5502014416213634" effort="1e+9" velocity="1e+9"/>
    <dynamics damping="2" friction="0"/>
  </joint>
  <link name="r_hand_index_3">
    <inertial>
      <mass value="0.007251413355667432"/>
      <origin xyz="4.432513430773638e-5 0.0027547026217409343 -0.01889087735725714" rpy="0 -0 0"/>
      <inertia ixx="0.01" ixy="0" ixz="0" iyy="0.01" iyz="0" izz="0.01"/>
    </inertial>
    <visual>
      <origin xyz="0 0 0" rpy="0 -0 0"/>
      <geometry>
        <mesh filename="package://ergoCub/meshes/simmechanics/sim_ecub_1-1_r_hand_index_3.stl" scale="0.001 0.001 0.001"/>
      </geometry>
      <material name="">
        <color rgba="0.5 0.5 0.5 1"/>
      </material>
    </visual>
    <collision>
      <origin xyz="0 0 0" rpy="0 -0 0"/>
      <geometry>
        <mesh filename="package://ergoCub/meshes/simmechanics/sim_ecub_1-1_r_hand_index_3.stl" scale="0.001 0.001 0.001"/>
      </geometry>
      <material name="">
        <color rgba="0.5 0.5 0.5 1"/>
      </material>
    </collision>
  </link>
  <joint name="l_shoulder_roll" type="revolute">
    <origin xyz="0.005000000000000063 0.09329999999999988 -1.942890293094024e-16" rpy="2.6867397195928788e-14 1.2073675392798577e-15 -2.275957200481571e-15"/>
    <axis xyz="1 3.781697177629856e-16 2.7200464103316824e-15"/>
    <parent link="l_shoulder_1"/>
    <child link="l_shoulder_2"/>
    <limit lower="-0.2617993877991494" upper="2.6179938779914944" effort="1e+9" velocity="1e+9"/>
    <dynamics damping="2" friction="0"/>
  </joint>
  <link name="l_shoulder_2">
    <inertial>
      <mass value="0.44093319265387243"/>
      <origin xyz="0.007519395712385758 1.8727197477702573e-4 -0.020486062588588566" rpy="0 -0 0"/>
      <inertia ixx="0.01" ixy="0" ixz="0" iyy="0.01" iyz="0" izz="0.01"/>
    </inertial>
    <visual>
      <origin xyz="0 0 0" rpy="0 -0 0"/>
      <geometry>
        <mesh filename="package://ergoCub/meshes/simmechanics/sim_ecub_1-1_l_shoulder_2.stl" scale="0.001 0.001 0.001"/>
      </geometry>
      <material name="">
        <color rgba="0.6 0.6 0.6 1"/>
      </material>
    </visual>
    <collision>
      <origin xyz="0 0 0" rpy="0 -0 0"/>
      <geometry>
        <mesh filename="package://ergoCub/meshes/simmechanics/sim_ecub_1-1_l_shoulder_2.stl" scale="0.001 0.001 0.001"/>
      </geometry>
      <material name="">
        <color rgba="0.6 0.6 0.6 1"/>
      </material>
    </collision>
  </link>
  <joint name="l_arm_ft_sensor" type="fixed">
    <origin xyz="-0.004349999999999986 0 -0.054300000000000015" rpy="1.6653345369377353e-16 3.469446951953614e-17 1.4432899320127049e-15"/>
    <parent link="l_shoulder_2"/>
    <child link="l_shoulder_3"/>
  </joint>
  <link name="l_shoulder_3">
    <inertial>
      <mass value="0.271466272759966"/>
      <origin xyz="8.311677995862313e-5 3.065483169523153e-5 -0.007966545320293866" rpy="0 -0 0"/>
      <inertia ixx="0.01" ixy="0" ixz="0" iyy="0.01" iyz="0" izz="0.01"/>
    </inertial>
    <visual>
      <origin xyz="0 0 0" rpy="0 -0 0"/>
      <geometry>
        <mesh filename="package://ergoCub/meshes/simmechanics/sim_ecub_1-1_l_shoulder_3.stl" scale="0.001 0.001 0.001"/>
      </geometry>
      <material name="">
        <color rgba="0.6 0.6 0.6 1"/>
      </material>
    </visual>
    <collision>
      <origin xyz="0 0 0" rpy="0 -0 0"/>
      <geometry>
        <mesh filename="package://ergoCub/meshes/simmechanics/sim_ecub_1-1_l_shoulder_3.stl" scale="0.001 0.001 0.001"/>
      </geometry>
      <material name="">
        <color rgba="0.6 0.6 0.6 1"/>
      </material>
    </collision>
  </link>
  <joint name="l_shoulder_yaw" type="revolute">
    <origin xyz="-3.8163916471489756e-17 2.7755575615628914e-17 -0.022500000000000034" rpy="-3.2196467714129615e-15 -3.0100921755149557e-14 6.16173778666964e-15"/>
    <axis xyz="-3.0156432906380815e-14 3.108624468950439e-15 -0.9999999999999977"/>
    <parent link="l_shoulder_3"/>
    <child link="l_upper_arm"/>
    <limit lower="-0.9075712110370514" upper="1.4311699866353502" effort="1e+9" velocity="1e+9"/>
    <dynamics damping="2" friction="0"/>
  </joint>
  <link name="l_upper_arm">
    <inertial>
      <mass value="1.7708527474969076"/>
      <origin xyz="1.3049265136780286e-4 0.0022530185376357925 -0.050065038959805325" rpy="0 -0 0"/>
      <inertia ixx="0.003417154867942194" ixy="-2.952452997527239e-5" ixz="2.6752323704214618e-5" iyy="0.0035109035513553296" iyz="1.0388063737032838e-4" izz="0.0015716101936389657"/>
    </inertial>
    <visual>
      <origin xyz="0 0 0" rpy="0 -0 0"/>
      <geometry>
        <mesh filename="package://ergoCub/meshes/simmechanics/sim_ecub_1-1_l_upperarm.stl" scale="0.001 0.001 0.001"/>
      </geometry>
      <material name="">
        <color rgba="1 1 1 1"/>
      </material>
    </visual>
    <collision>
      <origin xyz="0 0 0" rpy="0 -0 0"/>
      <geometry>
        <mesh filename="package://ergoCub/meshes/simmechanics/sim_ecub_1-1_l_upperarm.stl" scale="0.001 0.001 0.001"/>
      </geometry>
      <material name="">
        <color rgba="1 1 1 1"/>
      </material>
    </collision>
  </link>
  <joint name="l_elbow" type="revolute">
    <origin xyz="0.009999999999996267 -0.0014999999999996683 -0.12369999999999949" rpy="-3.275157922644225e-15 -3.0031532816110484e-14 -8.215650382226203e-15"/>
    <axis xyz="-3.295974604344064e-17 -0.9999999999999952 6.439293542825655e-15"/>
    <parent link="l_upper_arm"/>
    <child link="l_forearm"/>
    <limit lower="-0.08726646259971647" upper="2.0943951023931953" effort="1e+9" velocity="1e+9"/>
    <dynamics damping="2" friction="0"/>
  </joint>
  <link name="l_forearm">
    <inertial>
      <mass value="1.4604487031386884"/>
      <origin xyz="-0.018553263328673478 0.0023119252259846124 -0.08919372240797706" rpy="0 -0 0"/>
      <inertia ixx="0.009999999999999998" ixy="0" ixz="0" iyy="0.010000000000000002" iyz="0" izz="0.01"/>
    </inertial>
    <visual>
      <origin xyz="0 0 0" rpy="0 -0 0"/>
      <geometry>
        <mesh filename="package://ergoCub/meshes/simmechanics/sim_ecub_1-1_l_forearm.stl" scale="0.001 0.001 0.001"/>
      </geometry>
      <material name="">
        <color rgba="1 1 1 1"/>
      </material>
    </visual>
    <collision>
      <origin xyz="0 0 0" rpy="0 -0 0"/>
      <geometry>
        <mesh filename="package://ergoCub/meshes/simmechanics/sim_ecub_1-1_l_forearm.stl" scale="0.001 0.001 0.001"/>
      </geometry>
      <material name="">
        <color rgba="1 1 1 1"/>
      </material>
    </collision>
  </link>
  <joint name="l_wrist_yaw" type="revolute">
    <origin xyz="-0.014999999999992582 0.0020000000000007234 -0.19435000000000124" rpy="-1.9428902930940274e-16 -7.657069422961627e-14 -2.220446049250318e-16"/>
    <axis xyz="-3.017724958809254e-14 2.858824288409786e-15 -0.9999999999999982"/>
    <parent link="l_forearm"/>
    <child link="l_wrist_1"/>
    <limit lower="-1.6057029118347832" upper="1.6057029118347832" effort="1e+9" velocity="1e+9"/>
    <dynamics damping="2" friction="0"/>
  </joint>
  <link name="l_wrist_1">
    <inertial>
      <mass value="0.1226928"/>
      <origin xyz="1.4545073498396788e-4 -1.5595311920038601e-4 0.022377795694245" rpy="0 -0 0"/>
      <inertia ixx="0.01" ixy="0" ixz="0" iyy="0.01" iyz="0" izz="0.01"/>
    </inertial>
    <visual>
      <origin xyz="0 0 0" rpy="0 -0 0"/>
      <geometry>
        <mesh filename="package://ergoCub/meshes/simmechanics/sim_ecub_1-1_l_wrist_1.stl" scale="0.001 0.001 0.001"/>
      </geometry>
      <material name="">
        <color rgba="0.6 0.6 0.6 1"/>
      </material>
    </visual>
    <collision>
      <origin xyz="0 0 0" rpy="0 -0 0"/>
      <geometry>
        <mesh filename="package://ergoCub/meshes/simmechanics/sim_ecub_1-1_l_wrist_1.stl" scale="0.001 0.001 0.001"/>
      </geometry>
      <material name="">
        <color rgba="0.6 0.6 0.6 1"/>
      </material>
    </collision>
  </link>
  <joint name="l_wrist_roll" type="revolute">
    <origin xyz="4.163336342344337e-17 8.326672684688674e-17 -5.551115123125783e-17" rpy="5.828670879282071e-16 1.1796119636642288e-16 -3.8857805861880464e-16"/>
    <axis xyz="-1.0000000000000004 4.909267437014365e-16 -2.1510571102112398e-16"/>
    <parent link="l_wrist_1"/>
    <child link="l_wrist_2"/>
    <limit lower="-0.3490658503988659" upper="0.5235987755982988" effort="1e+9" velocity="1e+9"/>
    <dynamics damping="2" friction="0"/>
  </joint>
  <link name="l_wrist_2">
    <inertial>
      <mass value="0.02118836"/>
      <origin xyz="-7.4183919215875535e-9 -7.897157534373368e-4 -0.0046969679508168105" rpy="0 -0 0"/>
      <inertia ixx="0.01" ixy="0" ixz="0" iyy="0.01" iyz="0" izz="0.01"/>
    </inertial>
    <visual>
      <origin xyz="0 0 0" rpy="0 -0 0"/>
      <geometry>
        <mesh filename="package://ergoCub/meshes/simmechanics/sim_ecub_1-1_l_wrist_2.stl" scale="0.001 0.001 0.001"/>
      </geometry>
      <material name="">
        <color rgba="0.5 0.5 0.5 1"/>
      </material>
    </visual>
    <collision>
      <origin xyz="0 0 0" rpy="0 -0 0"/>
      <geometry>
        <mesh filename="package://ergoCub/meshes/simmechanics/sim_ecub_1-1_l_wrist_2.stl" scale="0.001 0.001 0.001"/>
      </geometry>
      <material name="">
        <color rgba="0.5 0.5 0.5 1"/>
      </material>
    </collision>
  </link>
  <joint name="l_wrist_pitch" type="revolute">
    <origin xyz="-1.457167719820518e-16 -2.7755575615628914e-16 2.220446049250313e-16" rpy="-1.9428902930940235e-16 -1.457167719820518e-16 -2.220446049250312e-16"/>
    <axis xyz="3.105155021998485e-16 -1.0000000000000004 -1.1379786002407855e-15"/>
    <parent link="l_wrist_2"/>
    <child link="l_hand_palm"/>
    <limit lower="-0.3490658503988659" upper="0.3490658503988659" effort="1e+9" velocity="1e+9"/>
    <dynamics damping="2" friction="0"/>
  </joint>
  <link name="l_hand_palm">
    <inertial>
      <mass value="0.20364988213680776"/>
      <origin xyz="-0.003950502224178115 0.0019881930945492288 -0.058015852438740544" rpy="0 -0 0"/>
      <inertia ixx="0.01" ixy="0" ixz="0" iyy="0.01" iyz="0" izz="0.01"/>
    </inertial>
    <visual>
      <origin xyz="0 0 0" rpy="0 -0 0"/>
      <geometry>
        <mesh filename="package://ergoCub/meshes/simmechanics/sim_ecub_1-1_l_hand_palm.stl" scale="0.001 0.001 0.001"/>
      </geometry>
      <material name="">
        <color rgba="1 1 1 1"/>
      </material>
    </visual>
    <collision>
      <origin xyz="0 0 0" rpy="0 -0 0"/>
      <geometry>
        <mesh filename="package://ergoCub/meshes/simmechanics/sim_ecub_1-1_l_hand_palm.stl" scale="0.001 0.001 0.001"/>
      </geometry>
      <material name="">
        <color rgba="1 1 1 1"/>
      </material>
    </collision>
  </link>
  <joint name="l_index_add" type="revolute">
    <origin xyz="0.02249999999999993 -0.0015000000000006952 -0.06859999999999966" rpy="-1.3060699478018485e-15 -0.29670597283903655 -1.1609510647127538e-16"/>
    <axis xyz="1.023000229600463e-15 1 -1.2595591059890244e-15"/>
    <parent link="l_hand_palm"/>
    <child link="l_hand_index_1"/>
    <limit lower="0" upper="0.2617993877991494" effort="1e+9" velocity="1e+9"/>
    <dynamics damping="2" friction="0"/>
  </joint>
  <link name="l_hand_index_1">
    <inertial>
      <mass value="0.01923264"/>
      <origin xyz="0.008430306749277854 0.0038510231844406384 -0.017148502808541133" rpy="0 -0 0"/>
      <inertia ixx="0.01" ixy="0" ixz="0" iyy="0.01" iyz="0" izz="0.01"/>
    </inertial>
    <visual>
      <origin xyz="0 0 0" rpy="0 -0 0"/>
      <geometry>
        <mesh filename="package://ergoCub/meshes/simmechanics/sim_ecub_1-1_l_hand_index_1.stl" scale="0.001 0.001 0.001"/>
      </geometry>
      <material name="">
        <color rgba="0.5 0.5 0.5 1"/>
      </material>
    </visual>
    <collision>
      <origin xyz="0 0 0" rpy="0 -0 0"/>
      <geometry>
        <mesh filename="package://ergoCub/meshes/simmechanics/sim_ecub_1-1_l_hand_index_1.stl" scale="0.001 0.001 0.001"/>
      </geometry>
      <material name="">
        <color rgba="0.5 0.5 0.5 1"/>
      </material>
    </collision>
  </link>
  <joint name="l_middle_prox" type="revolute">
    <origin xyz="0.009599999999999838 -0.0015000000000004177 -0.10299999999999992" rpy="5.479728916544173e-4 1.9567680809018384e-15 -7.771561172376093e-16"/>
    <axis xyz="-1.0000000000000004 1.6098145522958363e-16 3.663405274214013e-15"/>
    <parent link="l_hand_palm"/>
    <child link="l_hand_middle_1"/>
    <limit lower="0.10035643198967395" upper="1.5707963267948966" effort="1e+9" velocity="1e+9"/>
    <dynamics damping="2" friction="0"/>
  </joint>
  <link name="l_hand_middle_1">
    <inertial>
      <mass value="0.007486366"/>
      <origin xyz="5.609414423399586e-5 0.0010938363913530202 -0.0174225309754375" rpy="0 -0 0"/>
      <inertia ixx="0.01" ixy="0" ixz="0" iyy="0.01" iyz="0" izz="0.01"/>
    </inertial>
    <visual>
      <origin xyz="0 0 0" rpy="0 -0 0"/>
      <geometry>
        <mesh filename="package://ergoCub/meshes/simmechanics/sim_ecub_1-1_l_hand_middle_1.stl" scale="0.001 0.001 0.001"/>
      </geometry>
      <material name="">
        <color rgba="0.5 0.5 0.5 1"/>
      </material>
    </visual>
    <collision>
      <origin xyz="0 0 0" rpy="0 -0 0"/>
      <geometry>
        <mesh filename="package://ergoCub/meshes/simmechanics/sim_ecub_1-1_l_hand_middle_1.stl" scale="0.001 0.001 0.001"/>
      </geometry>
      <material name="">
        <color rgba="0.5 0.5 0.5 1"/>
      </material>
    </collision>
  </link>
  <joint name="l_pinkie_prox" type="revolute">
    <origin xyz="-0.03598232224952738 -0.0023883158589563525 -0.09206560929209867" rpy="-1.993458867755874e-5 0.08728175651239245 0.026187612448127187"/>
    <axis xyz="-0.9999999998538295 7.6447724638575e-6 -1.529375771061603e-5"/>
    <parent link="l_hand_palm"/>
    <child link="l_hand_pinkie_1"/>
    <limit lower="0.09965830028887622" upper="1.5707963267948966" effort="1e+9" velocity="1e+9"/>
    <dynamics damping="2" friction="0"/>
  </joint>
  <link name="l_hand_pinkie_1">
    <inertial>
      <mass value="0.006357586"/>
      <origin xyz="3.6554577562467744e-5 0.0012135491682558897 -0.015052861815374408" rpy="0 -0 0"/>
      <inertia ixx="0.01" ixy="0" ixz="0" iyy="0.01" iyz="0" izz="0.01"/>
    </inertial>
    <visual>
      <origin xyz="0 0 0" rpy="0 -0 0"/>
      <geometry>
        <mesh filename="package://ergoCub/meshes/simmechanics/sim_ecub_1-1_l_hand_pinkie_1.stl" scale="0.001 0.001 0.001"/>
      </geometry>
      <material name="">
        <color rgba="0.5 0.5 0.5 1"/>
      </material>
    </visual>
    <collision>
      <origin xyz="0 0 0" rpy="0 -0 0"/>
      <geometry>
        <mesh filename="package://ergoCub/meshes/simmechanics/sim_ecub_1-1_l_hand_pinkie_1.stl" scale="0.001 0.001 0.001"/>
      </geometry>
      <material name="">
        <color rgba="0.5 0.5 0.5 1"/>
      </material>
    </collision>
  </link>
  <joint name="l_ring_prox" type="revolute">
    <origin xyz="-0.015417755558119986 -0.0018498137284709004 -0.09788067183884425" rpy="-4.001819088229759e-5 0.08726646259973239 0.026179938779914397"/>
    <axis xyz="-1.0000000000000002 3.0008259738851725e-17 3.3861802251067274e-15"/>
    <parent link="l_hand_palm"/>
    <child link="l_hand_ring_1"/>
    <limit lower="0.10035643198967395" upper="1.5707963267948966" effort="1e+9" velocity="1e+9"/>
    <dynamics damping="2" friction="0"/>
  </joint>
  <link name="l_hand_ring_1">
    <inertial>
      <mass value="0.007486366"/>
      <origin xyz="5.610953414397422e-5 0.001113903955753115 -0.017428756834488968" rpy="0 -0 0"/>
      <inertia ixx="0.01" ixy="0" ixz="0" iyy="0.01" iyz="0" izz="0.01"/>
    </inertial>
    <visual>
      <origin xyz="0 0 0" rpy="0 -0 0"/>
      <geometry>
        <mesh filename="package://ergoCub/meshes/simmechanics/sim_ecub_1-1_l_hand_ring_1.stl" scale="0.001 0.001 0.001"/>
      </geometry>
      <material name="">
        <color rgba="0.5 0.5 0.5 1"/>
      </material>
    </visual>
    <collision>
      <origin xyz="0 0 0" rpy="0 -0 0"/>
      <geometry>
        <mesh filename="package://ergoCub/meshes/simmechanics/sim_ecub_1-1_l_hand_ring_1.stl" scale="0.001 0.001 0.001"/>
      </geometry>
      <material name="">
        <color rgba="0.5 0.5 0.5 1"/>
      </material>
    </collision>
  </link>
  <joint name="l_thumb_add" type="revolute">
    <origin xyz="0.023374863256390745 -0.003000000000000169 -0.03452383847355461" rpy="-0.04044970061859094 0.22331918636553416 2.9608435412698353"/>
    <axis xyz="-2.7755575615628914e-17 9.298117831235686e-16 -1"/>
    <parent link="l_hand_palm"/>
    <child link="l_hand_thumb_1"/>
    <limit lower="0" upper="1.7453292519943295" effort="1e+9" velocity="1e+9"/>
    <dynamics damping="2" friction="0"/>
  </joint>
  <link name="l_hand_thumb_1">
    <inertial>
      <mass value="0.029029542280278556"/>
      <origin xyz="-0.018039176431428286 -0.0028662725726853466 0.0021177719486905056" rpy="0 -0 0"/>
      <inertia ixx="0.01" ixy="0" ixz="0" iyy="0.01" iyz="0" izz="0.01"/>
    </inertial>
    <visual>
      <origin xyz="0 0 0" rpy="0 -0 0"/>
      <geometry>
        <mesh filename="package://ergoCub/meshes/simmechanics/sim_ecub_1-1_l_hand_thumb_1.stl" scale="0.001 0.001 0.001"/>
      </geometry>
      <material name="">
        <color rgba="0.5 0.5 0.5 1"/>
      </material>
    </visual>
    <collision>
      <origin xyz="0 0 0" rpy="0 -0 0"/>
      <geometry>
        <mesh filename="package://ergoCub/meshes/simmechanics/sim_ecub_1-1_l_hand_thumb_1.stl" scale="0.001 0.001 0.001"/>
      </geometry>
      <material name="">
        <color rgba="0.5 0.5 0.5 1"/>
      </material>
    </collision>
  </link>
  <joint name="l_thumb_prox" type="revolute">
    <origin xyz="-0.038093197450346235 -0.0032591938585447566 -0.00360174480372083" rpy="1.4305744121725275 -0.19703059799949263 1.5984202269739933"/>
    <axis xyz="-0.9999999999999997 1.5642404038729296e-11 1.7937474075524484e-10"/>
    <parent link="l_hand_thumb_1"/>
    <child link="l_hand_thumb_2"/>
    <limit lower="0.06335545184739416" upper="1.5707963267948966" effort="1e+9" velocity="1e+9"/>
    <dynamics damping="2" friction="0"/>
  </joint>
  <link name="l_hand_thumb_2">
    <inertial>
      <mass value="0.00744305878263309"/>
      <origin xyz="1.1691393252494242e-5 3.0451625727886955e-4 -0.014894613059881514" rpy="0 -0 0"/>
      <inertia ixx="0.01" ixy="0" ixz="0" iyy="0.01" iyz="0" izz="0.01"/>
    </inertial>
    <visual>
      <origin xyz="0 0 0" rpy="0 -0 0"/>
      <geometry>
        <mesh filename="package://ergoCub/meshes/simmechanics/sim_ecub_1-1_l_hand_thumb_2.stl" scale="0.001 0.001 0.001"/>
      </geometry>
      <material name="">
        <color rgba="0.5 0.5 0.5 1"/>
      </material>
    </visual>
    <collision>
      <origin xyz="0 0 0" rpy="0 -0 0"/>
      <geometry>
        <mesh filename="package://ergoCub/meshes/simmechanics/sim_ecub_1-1_l_hand_thumb_2.stl" scale="0.001 0.001 0.001"/>
      </geometry>
      <material name="">
        <color rgba="0.5 0.5 0.5 1"/>
      </material>
    </collision>
  </link>
  <joint name="l_thumb_dist" type="revolute">
    <origin xyz="1.1102230246251565e-16 -0.003710625424652614 -0.03483505790088371" rpy="-0.06328877097738345 6.661338147750939e-16 3.3653635433950077e-15"/>
    <axis xyz="-0.9999999999999994 4.264582097089499e-12 1.800055427914974e-10"/>
    <parent link="l_hand_thumb_2"/>
    <child link="l_hand_thumb_3"/>
    <limit lower="0" upper="1.6074482410867774" effort="1e+9" velocity="1e+9"/>
    <dynamics damping="2" friction="0"/>
  </joint>
  <link name="l_hand_thumb_3">
    <inertial>
      <mass value="0.00839103052424309"/>
      <origin xyz="-2.8909987974501394e-5 0.0027777675147018788 -0.016956792352400222" rpy="0 -0 0"/>
      <inertia ixx="0.01" ixy="0" ixz="0" iyy="0.01" iyz="0" izz="0.01"/>
    </inertial>
    <visual>
      <origin xyz="0 0 0" rpy="0 -0 0"/>
      <geometry>
        <mesh filename="package://ergoCub/meshes/simmechanics/sim_ecub_1-1_l_hand_thumb_3.stl" scale="0.001 0.001 0.001"/>
      </geometry>
      <material name="">
        <color rgba="0.5 0.5 0.5 1"/>
      </material>
    </visual>
    <collision>
      <origin xyz="0 0 0" rpy="0 -0 0"/>
      <geometry>
        <mesh filename="package://ergoCub/meshes/simmechanics/sim_ecub_1-1_l_hand_thumb_3.stl" scale="0.001 0.001 0.001"/>
      </geometry>
      <material name="">
        <color rgba="0.5 0.5 0.5 1"/>
      </material>
    </collision>
  </link>
  <joint name="l_ring_dist" type="revolute">
    <origin xyz="-9.107298248878237e-17 -0.0015000000000000568 -0.03999999999999998" rpy="-1.2044308636090684e-4 -2.0816681711721685e-16 -1.1102230246251565e-16"/>
    <axis xyz="-1 2.128533271077363e-15 -1.9406609352452043e-16"/>
    <parent link="l_hand_ring_1"/>
    <child link="l_hand_ring_2"/>
    <limit lower="0" upper="1.5502014416213634" effort="1e+9" velocity="1e+9"/>
    <dynamics damping="2" friction="0"/>
  </joint>
  <link name="l_hand_ring_2">
    <inertial>
      <mass value="0.007251413"/>
      <origin xyz="4.433654030530642e-5 0.0027546754597598533 -0.01889085949732494" rpy="0 -0 0"/>
      <inertia ixx="0.01" ixy="0" ixz="0" iyy="0.01" iyz="0" izz="0.01"/>
    </inertial>
    <visual>
      <origin xyz="0 0 0" rpy="0 -0 0"/>
      <geometry>
        <mesh filename="package://ergoCub/meshes/simmechanics/sim_ecub_1-1_l_hand_ring_2.stl" scale="0.001 0.001 0.001"/>
      </geometry>
      <material name="">
        <color rgba="0.5 0.5 0.5 1"/>
      </material>
    </visual>
    <collision>
      <origin xyz="0 0 0" rpy="0 -0 0"/>
      <geometry>
        <mesh filename="package://ergoCub/meshes/simmechanics/sim_ecub_1-1_l_hand_ring_2.stl" scale="0.001 0.001 0.001"/>
      </geometry>
      <material name="">
        <color rgba="0.5 0.5 0.5 1"/>
      </material>
    </collision>
  </link>
  <joint name="l_pinkie_dist" type="revolute">
    <origin xyz="-5.204170427930421e-17 -0.0014999999959516286 -0.03500000000409337" rpy="-4.438681233668093e-5 -3.469446951953614e-17 -2.2204460492503136e-16"/>
    <axis xyz="-0.9999999998538291 7.645451295684913e-6 -1.529341837105445e-5"/>
    <parent link="l_hand_pinkie_1"/>
    <child link="l_hand_pinkie_2"/>
    <limit lower="0.04852015320544236" upper="1.6074482410867774" effort="1e+9" velocity="1e+9"/>
    <dynamics damping="2" friction="0"/>
  </joint>
  <link name="l_hand_pinkie_2">
    <inertial>
      <mass value="0.007240237"/>
      <origin xyz="2.2378292628411067e-5 0.0027712834790767915 -0.018930353878106154" rpy="0 -0 0"/>
      <inertia ixx="0.01" ixy="0" ixz="0" iyy="0.01" iyz="0" izz="0.01"/>
    </inertial>
    <visual>
      <origin xyz="0 0 0" rpy="0 -0 0"/>
      <geometry>
        <mesh filename="package://ergoCub/meshes/simmechanics/sim_ecub_1-1_l_hand_pinkie_2.stl" scale="0.001 0.001 0.001"/>
      </geometry>
      <material name="">
        <color rgba="0.5 0.5 0.5 1"/>
      </material>
    </visual>
    <collision>
      <origin xyz="0 0 0" rpy="0 -0 0"/>
      <geometry>
        <mesh filename="package://ergoCub/meshes/simmechanics/sim_ecub_1-1_l_hand_pinkie_2.stl" scale="0.001 0.001 0.001"/>
      </geometry>
      <material name="">
        <color rgba="0.5 0.5 0.5 1"/>
      </material>
    </collision>
  </link>
  <joint name="l_middle_dist" type="revolute">
    <origin xyz="0 -0.0015000000000000013 -0.040000000000000036" rpy="0.017535706363213326 1.3877787807814457e-17 -5.551115123125783e-17"/>
    <axis xyz="-1 -2.6981348892220745e-16 -3.1133679763001863e-15"/>
    <parent link="l_hand_middle_1"/>
    <child link="l_hand_middle_2"/>
    <limit lower="0" upper="1.5502014416213634" effort="1e+9" velocity="1e+9"/>
    <dynamics damping="2" friction="0"/>
  </joint>
  <link name="l_hand_middle_2">
    <inertial>
      <mass value="0.007251413"/>
      <origin xyz="4.4316320155644157e-5 0.0027547229469275236 -0.018890877319942878" rpy="0 -0 0"/>
      <inertia ixx="0.01" ixy="0" ixz="0" iyy="0.01" iyz="0" izz="0.01"/>
    </inertial>
    <visual>
      <origin xyz="0 0 0" rpy="0 -0 0"/>
      <geometry>
        <mesh filename="package://ergoCub/meshes/simmechanics/sim_ecub_1-1_l_hand_middle_2.stl" scale="0.001 0.001 0.001"/>
      </geometry>
      <material name="">
        <color rgba="0.5 0.5 0.5 1"/>
      </material>
    </visual>
    <collision>
      <origin xyz="0 0 0" rpy="0 -0 0"/>
      <geometry>
        <mesh filename="package://ergoCub/meshes/simmechanics/sim_ecub_1-1_l_hand_middle_2.stl" scale="0.001 0.001 0.001"/>
      </geometry>
      <material name="">
        <color rgba="0.5 0.5 0.5 1"/>
      </material>
    </collision>
  </link>
  <joint name="l_index_prox" type="revolute">
    <origin xyz="0.00919253331742774 -8.326672684688674e-17 -0.030713451316238316" rpy="3.885780586188048e-16 -2.0816681711721685e-17 0"/>
    <axis xyz="-1 8.049116928532401e-16 4.2743586448068535e-15"/>
    <parent link="l_hand_index_1"/>
    <child link="l_hand_index_2"/>
    <limit lower="0.10035643198967395" upper="1.5707963267948966" effort="1e+9" velocity="1e+9"/>
    <dynamics damping="2" friction="0"/>
  </joint>
  <link name="l_hand_index_2">
    <inertial>
      <mass value="0.007486366"/>
      <origin xyz="5.6100110941745274e-5 0.001113133191428639 -0.01742880406449937" rpy="0 -0 0"/>
      <inertia ixx="0.01" ixy="0" ixz="0" iyy="0.01" iyz="0" izz="0.01"/>
    </inertial>
    <visual>
      <origin xyz="0 0 0" rpy="0 -0 0"/>
      <geometry>
        <mesh filename="package://ergoCub/meshes/simmechanics/sim_ecub_1-1_l_hand_index_2.stl" scale="0.001 0.001 0.001"/>
      </geometry>
      <material name="">
        <color rgba="0.5 0.5 0.5 1"/>
      </material>
    </visual>
    <collision>
      <origin xyz="0 0 0" rpy="0 -0 0"/>
      <geometry>
        <mesh filename="package://ergoCub/meshes/simmechanics/sim_ecub_1-1_l_hand_index_2.stl" scale="0.001 0.001 0.001"/>
      </geometry>
      <material name="">
        <color rgba="0.5 0.5 0.5 1"/>
      </material>
    </collision>
  </link>
  <joint name="l_index_dist" type="revolute">
    <origin xyz="-6.938893903907228e-17 -0.001500000000000029 -0.04000000000000009" rpy="-7.482326133678726e-8 1.3877787807814457e-17 0"/>
    <axis xyz="-1 2.081667921960643e-16 1.7347235486634922e-16"/>
    <parent link="l_hand_index_2"/>
    <child link="l_hand_index_3"/>
    <limit lower="0" upper="1.5502014416213634" effort="1e+9" velocity="1e+9"/>
    <dynamics damping="2" friction="0"/>
  </joint>
  <link name="l_hand_index_3">
    <inertial>
      <mass value="0.007251413"/>
      <origin xyz="4.431356673249148e-5 0.0027546711855188366 -0.018890916917498335" rpy="0 -0 0"/>
      <inertia ixx="0.01" ixy="0" ixz="0" iyy="0.01" iyz="0" izz="0.01"/>
    </inertial>
    <visual>
      <origin xyz="0 0 0" rpy="0 -0 0"/>
      <geometry>
        <mesh filename="package://ergoCub/meshes/simmechanics/sim_ecub_1-1_l_hand_index_3.stl" scale="0.001 0.001 0.001"/>
      </geometry>
      <material name="">
        <color rgba="0.5 0.5 0.5 1"/>
      </material>
    </visual>
    <collision>
      <origin xyz="0 0 0" rpy="0 -0 0"/>
      <geometry>
        <mesh filename="package://ergoCub/meshes/simmechanics/sim_ecub_1-1_l_hand_index_3.stl" scale="0.001 0.001 0.001"/>
      </geometry>
      <material name="">
        <color rgba="0.5 0.5 0.5 1"/>
      </material>
    </collision>
  </link>
  <joint name="r_hip_roll" type="revolute">
    <origin xyz="-0.047250000000000625 -0.033099999999999824 -0.009000000000000091" rpy="-2.73316156054826e-16 2.504641391024977e-16 -3.1036377681447894e-15"/>
    <axis xyz="-1 -3.3813287685016297e-16 -7.120227705451219e-17"/>
    <parent link="r_hip_1"/>
    <child link="r_hip_2"/>
    <limit lower="-0.3490658503988659" upper="1.9373154697137058" effort="1e+9" velocity="1e+9"/>
    <dynamics damping="2" friction="0"/>
  </joint>
  <link name="r_hip_2">
    <inertial>
      <mass value="1.8425374083524118"/>
      <origin xyz="-0.004338858395569037 -4.276785411407025e-5 -0.03711583728304848" rpy="0 -0 0"/>
      <inertia ixx="0.003120303249647105" ixy="2.3735315120274186e-6" ixz="0.0010124685247925123" iyy="0.005459166113270065" iyz="-1.8523984061140002e-6" izz="0.003419002844852166"/>
    </inertial>
    <visual>
      <origin xyz="0 0 0" rpy="0 -0 0"/>
      <geometry>
        <mesh filename="package://ergoCub/meshes/simmechanics/sim_ecub_1-1_r_hip_2.stl" scale="0.001 0.001 0.001"/>
      </geometry>
      <material name="">
        <color rgba="0.6 0.6 0.6 1"/>
      </material>
    </visual>
    <collision>
      <origin xyz="0 0 0" rpy="0 -0 0"/>
      <geometry>
        <mesh filename="package://ergoCub/meshes/simmechanics/sim_ecub_1-1_r_hip_2.stl" scale="0.001 0.001 0.001"/>
      </geometry>
      <material name="">
        <color rgba="0.6 0.6 0.6 1"/>
      </material>
    </collision>
  </link>
  <joint name="r_leg_ft_sensor" type="fixed">
    <origin xyz="0.036699999999999976 -5.551115123125783e-17 -0.08969999999999992" rpy="-1.3775953441385743e-15 5.490828022886651e-16 1.6105578736269433e-15"/>
    <parent link="r_hip_2"/>
    <child link="r_hip_3"/>
  </joint>
  <link name="r_hip_3">
    <inertial>
      <mass value="2.147900058066585"/>
      <origin xyz="0.0051510124501743006 0.012832092744145235 -0.05168842502826221" rpy="0 -0 0"/>
      <inertia ixx="0.007193177523135792" ixy="3.498727117566612e-5" ixz="2.4096738440560362e-5" iyy="0.008149001665389528" iyz="-1.2572783372468582e-4" izz="0.0057278283877820494"/>
    </inertial>
    <visual>
      <origin xyz="0 0 0" rpy="0 -0 0"/>
      <geometry>
        <mesh filename="package://ergoCub/meshes/simmechanics/sim_ecub_1-1_r_hip_3.stl" scale="0.001 0.001 0.001"/>
      </geometry>
      <material name="">
        <color rgba="1 1 1 1"/>
      </material>
    </visual>
    <collision>
      <origin xyz="0 0 0" rpy="0 -0 0"/>
      <geometry>
        <mesh filename="package://ergoCub/meshes/simmechanics/sim_ecub_1-1_r_hip_3.stl" scale="0.001 0.001 0.001"/>
      </geometry>
      <material name="">
        <color rgba="1 1 1 1"/>
      </material>
    </collision>
  </link>
  <joint name="r_hip_yaw" type="revolute">
    <origin xyz="-2.8275992658421956e-16 0.014999999999999764 -0.07269999999999871" rpy="-3.9451416337953255e-15 7.430123072146073e-16 1.2193157749540274e-6"/>
    <axis xyz="-2.3953050245594653e-20 1.4749328491810898e-15 -1"/>
    <parent link="r_hip_3"/>
    <child link="r_upper_leg"/>
    <limit lower="-1.413716694115407" upper="1.413716694115407" effort="1e+9" velocity="1e+9"/>
    <dynamics damping="2" friction="0"/>
  </joint>
  <link name="r_upper_leg">
    <inertial>
      <mass value="2.784923431729287"/>
      <origin xyz="0.008517474024287675 -0.014468465702474021 -0.12674960557185616" rpy="0 -0 0"/>
      <inertia ixx="0.01186013252999811" ixy="5.455450241372543e-5" ixz="5.393573740676933e-4" iyy="0.01210913335208505" iyz="-4.0331041015476653e-4" izz="0.0022609706907693243"/>
    </inertial>
    <visual>
      <origin xyz="0 0 0" rpy="0 -0 0"/>
      <geometry>
        <mesh filename="package://ergoCub/meshes/simmechanics/sim_ecub_1-1_r_upper_leg.stl" scale="0.001 0.001 0.001"/>
      </geometry>
      <material name="">
        <color rgba="0.6 0.6 0.6 1"/>
      </material>
    </visual>
    <collision>
      <origin xyz="0 0 0" rpy="0 -0 0"/>
      <geometry>
        <mesh filename="package://ergoCub/meshes/simmechanics/sim_ecub_1-1_r_upper_leg.stl" scale="0.001 0.001 0.001"/>
      </geometry>
      <material name="">
        <color rgba="0.6 0.6 0.6 1"/>
      </material>
    </collision>
  </link>
  <joint name="r_knee" type="revolute">
    <origin xyz="0.01060000963260985 0.00789998707525931 -0.17970000000000058" rpy="6.892643261935339e-14 -6.650159361880639e-14 -1.219315770090442e-6"/>
    <axis xyz="1.2193157766326317e-6 -0.9999999999992567 4.719551160658935e-15"/>
    <parent link="r_upper_leg"/>
    <child link="r_lower_leg"/>
    <limit lower="-1.8325957145940461" upper="0.12217304763960307" effort="1e+9" velocity="1e+9"/>
    <dynamics damping="2" friction="0"/>
  </joint>
  <link name="r_lower_leg">
    <inertial>
      <mass value="3.7621532589747924"/>
      <origin xyz="0.0012157689164458522 -0.006184734585333342 -0.21372759879868175" rpy="0 -0 0"/>
      <inertia ixx="0.04644215616821937" ixy="3.7269274872175814e-5" ixz="-8.519885904633137e-4" iyy="0.047738936736850285" iyz="-0.0018042981721195497" izz="0.004839671863500647"/>
    </inertial>
    <visual>
      <origin xyz="0 0 0" rpy="0 -0 0"/>
      <geometry>
        <mesh filename="package://ergoCub/meshes/simmechanics/sim_ecub_1-1_r_lower_leg.stl" scale="0.001 0.001 0.001"/>
      </geometry>
      <material name="">
        <color rgba="1 1 1 1"/>
      </material>
    </visual>
    <collision>
      <origin xyz="0 0 0" rpy="0 -0 0"/>
      <geometry>
        <mesh filename="package://ergoCub/meshes/simmechanics/sim_ecub_1-1_r_lower_leg.stl" scale="0.001 0.001 0.001"/>
      </geometry>
      <material name="">
        <color rgba="1 1 1 1"/>
      </material>
    </collision>
  </link>
  <joint name="r_ankle_pitch" type="revolute">
    <origin xyz="-5.936223734792634e-15 -0.03190000000000005 -0.3210000000000002" rpy="-2.9932805576414174e-15 -2.0242047360524565e-14 8.880636788937802e-17"/>
    <axis xyz="-3.505264366441263e-17 1 -1.331317022347139e-16"/>
    <parent link="r_lower_leg"/>
    <child link="r_ankle_1"/>
    <limit lower="-0.7853981633974483" upper="0.7853981633974483" effort="1e+9" velocity="1e+9"/>
    <dynamics damping="2" friction="0"/>
  </joint>
  <link name="r_ankle_1">
    <inertial>
      <mass value="0.3481278950635556"/>
      <origin xyz="-0.0013672309746954776 -6.60186959019704e-4 -0.014087432401547305" rpy="0 -0 0"/>
      <inertia ixx="0.01" ixy="0" ixz="0" iyy="0.01" iyz="0" izz="0.01"/>
    </inertial>
    <visual>
      <origin xyz="0 0 0" rpy="0 -0 0"/>
      <geometry>
        <mesh filename="package://ergoCub/meshes/simmechanics/sim_ecub_1-1_r_ankle_1.stl" scale="0.001 0.001 0.001"/>
      </geometry>
      <material name="">
        <color rgba="0.6 0.6 0.6 1"/>
      </material>
    </visual>
    <collision>
      <origin xyz="0 0 0" rpy="0 -0 0"/>
      <geometry>
        <mesh filename="package://ergoCub/meshes/simmechanics/sim_ecub_1-1_r_ankle_1.stl" scale="0.001 0.001 0.001"/>
      </geometry>
      <material name="">
        <color rgba="0.6 0.6 0.6 1"/>
      </material>
    </collision>
  </link>
  <joint name="r_ankle_roll" type="revolute">
    <origin xyz="-0.052750000000001546 0.018200000000000008 -0.0349999999999977" rpy="-1.0176053241861382e-24 3.8838282931741325e-14 -9.278622199115707e-23"/>
    <axis xyz="-1 -1.628246671334752e-16 2.560295622560413e-15"/>
    <parent link="r_ankle_1"/>
    <child link="r_ankle_2"/>
    <limit lower="-0.4363323129985824" upper="0.4363323129985824" effort="1e+9" velocity="1e+9"/>
    <dynamics damping="2" friction="0"/>
  </joint>
  <link name="r_ankle_2">
    <inertial>
      <mass value="1.5418216247038539"/>
      <origin xyz="0.04052646811695935 -8.642493098851012e-5 -0.023871143533700234" rpy="0 -0 0"/>
      <inertia ixx="0.01" ixy="0" ixz="0" iyy="0.009999999999999998" iyz="0" izz="0.01"/>
    </inertial>
    <visual>
      <origin xyz="0 0 0" rpy="0 -0 0"/>
      <geometry>
        <mesh filename="package://ergoCub/meshes/simmechanics/sim_ecub_1-1_r_ankle_2.stl" scale="0.001 0.001 0.001"/>
      </geometry>
      <material name="">
        <color rgba="1 1 1 1"/>
      </material>
    </visual>
    <collision>
      <origin xyz="0 0 0" rpy="0 -0 0"/>
      <geometry>
        <mesh filename="package://ergoCub/meshes/simmechanics/sim_ecub_1-1_r_ankle_2.stl" scale="0.001 0.001 0.001"/>
      </geometry>
      <material name="">
        <color rgba="1 1 1 1"/>
      </material>
    </collision>
  </link>
  <joint name="r_foot_front_ft_sensor" type="fixed">
    <origin xyz="0.13525000000000004 0 -0.04789999999999972" rpy="2.6613913647124785e-17 -9.20811369242055e-17 -1.4551888385804406e-15"/>
    <parent link="r_ankle_2"/>
    <child link="r_foot_front"/>
  </joint>
  <link name="r_foot_front">
    <inertial>
      <mass value="0.22110467939552797"/>
      <origin xyz="5.879202911245884e-4 -3.747924692820703e-9 -0.02000061661590058" rpy="0 -0 0"/>
      <inertia ixx="0.009999999999999998" ixy="0" ixz="0" iyy="0.01" iyz="0" izz="0.01"/>
    </inertial>
    <visual>
      <origin xyz="0 0 0" rpy="0 -0 0"/>
      <geometry>
        <mesh filename="package://ergoCub/meshes/simmechanics/sim_ecub_1-1_r_foot_front.stl" scale="0.001 0.001 0.001"/>
      </geometry>
      <material name="">
        <color rgba="1 0.51 0 1"/>
      </material>
    </visual>
    <collision>
      <origin xyz="0 0 -0.0193" rpy="0 -0 0"/>
      <geometry>
        <box size="0.117 0.1 0.006"/>
      </geometry>
    </collision>
  </link>
  <joint name="r_foot_rear_ft_sensor" type="fixed">
    <origin xyz="0.016 0 -0.04789999999999961" rpy="2.6613913647112164e-17 -9.208113692420588e-17 -1.566211141042955e-15"/>
    <parent link="r_ankle_2"/>
    <child link="r_foot_rear"/>
  </joint>
  <link name="r_foot_rear">
    <inertial>
      <mass value="0.22110467939552797"/>
      <origin xyz="5.879202911244878e-4 -3.747924665065128e-9 -0.020000616615901023" rpy="0 -0 0"/>
      <inertia ixx="0.01" ixy="0" ixz="0" iyy="0.01" iyz="0" izz="0.01"/>
    </inertial>
    <visual>
      <origin xyz="0 0 0" rpy="0 -0 0"/>
      <geometry>
        <mesh filename="package://ergoCub/meshes/simmechanics/sim_ecub_1-1_r_foot_rear.stl" scale="0.001 0.001 0.001"/>
      </geometry>
      <material name="">
        <color rgba="1 0.51 0 1"/>
      </material>
    </visual>
    <collision>
      <origin xyz="0 0 -0.0193" rpy="0 -0 0"/>
      <geometry>
        <box size="0.117 0.1 0.006"/>
      </geometry>
    </collision>
  </link>
  <joint name="l_hip_roll" type="revolute">
    <origin xyz="-0.04725000000000078 0.033100000000000004 -0.009000000000000119" rpy="7.584245024416732e-16 1.5745686587446743e-30 1.1102230246251548e-16"/>
    <axis xyz="1 -6.123233995736708e-17 6.3201403498236e-16"/>
    <parent link="l_hip_1"/>
    <child link="l_hip_2"/>
    <limit lower="-0.3490658503988659" upper="1.9373154697137058" effort="1e+9" velocity="1e+9"/>
    <dynamics damping="2" friction="0"/>
  </joint>
  <link name="l_hip_2">
    <inertial>
      <mass value="1.8338392164825101"/>
      <origin xyz="-0.004125697068299468 3.917475804632309e-5 -0.03750964603556273" rpy="0 -0 0"/>
      <inertia ixx="0.003159514595905926" ixy="-1.6542815235215681e-6" ixz="9.977368607484037e-4" iyy="0.005488243677251951" iyz="-2.1904093887368695e-6" izz="0.0033984945726571185"/>
    </inertial>
    <visual>
      <origin xyz="0 0 0" rpy="0 -0 0"/>
      <geometry>
        <mesh filename="package://ergoCub/meshes/simmechanics/sim_ecub_1-1_l_hip_2.stl" scale="0.001 0.001 0.001"/>
      </geometry>
      <material name="">
        <color rgba="0.6 0.6 0.6 1"/>
      </material>
    </visual>
    <collision>
      <origin xyz="0 0 0" rpy="0 -0 0"/>
      <geometry>
        <mesh filename="package://ergoCub/meshes/simmechanics/sim_ecub_1-1_l_hip_2.stl" scale="0.001 0.001 0.001"/>
      </geometry>
      <material name="">
        <color rgba="0.6 0.6 0.6 1"/>
      </material>
    </collision>
  </link>
  <joint name="l_leg_ft_sensor" type="fixed">
    <origin xyz="0.036699999999999844 -1.3877787807814457e-17 -0.08970000000000003" rpy="-1.1075796462727634e-15 -1.9903300580169828e-30 2.775557561562846e-16"/>
    <parent link="l_hip_2"/>
    <child link="l_hip_3"/>
  </joint>
  <link name="l_hip_3">
    <inertial>
      <mass value="2.147524084050246"/>
      <origin xyz="0.005176125839593024 -0.01282881302682233 -0.05174852447453404" rpy="0 -0 0"/>
      <inertia ixx="0.007242161971060034" ixy="-3.321392954197042e-5" ixz="2.505985505401264e-5" iyy="0.008197962692605146" iyz="1.2474874840596051e-4" izz="0.005727458772759987"/>
    </inertial>
    <visual>
      <origin xyz="0 0 0" rpy="0 -0 0"/>
      <geometry>
        <mesh filename="package://ergoCub/meshes/simmechanics/sim_ecub_1-1_l_hip_3.stl" scale="0.001 0.001 0.001"/>
      </geometry>
      <material name="">
        <color rgba="1 1 1 1"/>
      </material>
    </visual>
    <collision>
      <origin xyz="0 0 0" rpy="0 -0 0"/>
      <geometry>
        <mesh filename="package://ergoCub/meshes/simmechanics/sim_ecub_1-1_l_hip_3.stl" scale="0.001 0.001 0.001"/>
      </geometry>
      <material name="">
        <color rgba="1 1 1 1"/>
      </material>
    </collision>
  </link>
  <joint name="l_hip_yaw" type="revolute">
    <origin xyz="-8.396061623727746e-16 -0.014999999999999944 -0.07269999999999993" rpy="3.0118838875648327e-16 1.1431429037212378e-14 -2.775557561562751e-16"/>
    <axis xyz="-8.622588011769357e-16 1.5936665473077025e-16 1"/>
    <parent link="l_hip_3"/>
    <child link="l_upper_leg"/>
    <limit lower="-1.413716694115407" upper="1.413716694115407" effort="1e+9" velocity="1e+9"/>
    <dynamics damping="2" friction="0"/>
  </joint>
  <link name="l_upper_leg">
    <inertial>
      <mass value="2.784923431765453"/>
      <origin xyz="0.008503494694160183 0.014484874736048647 -0.12674659802303312" rpy="0 -0 0"/>
      <inertia ixx="0.011852293952284196" ixy="-4.907145319317264e-5" ixz="5.393933817879138e-4" iyy="0.012109807149567942" iyz="3.9208918647670385e-4" izz="0.002253627916731084"/>
    </inertial>
    <visual>
      <origin xyz="0 0 0" rpy="0 -0 0"/>
      <geometry>
        <mesh filename="package://ergoCub/meshes/simmechanics/sim_ecub_1-1_l_upper_leg.stl" scale="0.001 0.001 0.001"/>
      </geometry>
      <material name="">
        <color rgba="0.6 0.6 0.6 1"/>
      </material>
    </visual>
    <collision>
      <origin xyz="0 0 0" rpy="0 -0 0"/>
      <geometry>
        <mesh filename="package://ergoCub/meshes/simmechanics/sim_ecub_1-1_l_upper_leg.stl" scale="0.001 0.001 0.001"/>
      </geometry>
      <material name="">
        <color rgba="0.6 0.6 0.6 1"/>
      </material>
    </collision>
  </link>
  <joint name="l_knee" type="revolute">
    <origin xyz="0.010600000000000822 -0.007900000000000185 -0.17969999999999958" rpy="1.970486418692682e-16 -1.1419428146632273e-14 2.8602839935211434e-15"/>
    <axis xyz="-2.608937546411318e-16 -1 5.166588955193111e-17"/>
    <parent link="l_upper_leg"/>
    <child link="l_lower_leg"/>
    <limit lower="-1.8325957145940461" upper="0.12217304763960307" effort="1e+9" velocity="1e+9"/>
    <dynamics damping="2" friction="0"/>
  </joint>
  <link name="l_lower_leg">
    <inertial>
      <mass value="3.767581145212888"/>
      <origin xyz="0.0014201768088090358 0.006186333743956739 -0.21383298861124922" rpy="0 -0 0"/>
      <inertia ixx="0.04647110900067475" ixy="-2.1189289797886653e-5" ixz="-8.110710215722959e-4" iyy="0.04776726641499918" iyz="0.0018123762001582078" izz="0.004840491251955261"/>
    </inertial>
    <visual>
      <origin xyz="0 0 0" rpy="0 -0 0"/>
      <geometry>
        <mesh filename="package://ergoCub/meshes/simmechanics/sim_ecub_1-1_l_lower_leg.stl" scale="0.001 0.001 0.001"/>
      </geometry>
      <material name="">
        <color rgba="1 1 1 1"/>
      </material>
    </visual>
    <collision>
      <origin xyz="0 0 0" rpy="0 -0 0"/>
      <geometry>
        <mesh filename="package://ergoCub/meshes/simmechanics/sim_ecub_1-1_l_lower_leg.stl" scale="0.001 0.001 0.001"/>
      </geometry>
      <material name="">
        <color rgba="1 1 1 1"/>
      </material>
    </collision>
  </link>
  <joint name="l_ankle_pitch" type="revolute">
    <origin xyz="-4.468647674116255e-15 0.03189999999999981 -0.3209999999999995" rpy="-1.9704864186927032e-16 -8.673617379880112e-19 -1.8683953730959558e-16"/>
    <axis xyz="-2.389602037081462e-16 1 1.4538275231733847e-16"/>
    <parent link="l_lower_leg"/>
    <child link="l_ankle_1"/>
    <limit lower="-0.7853981633974483" upper="0.7853981633974483" effort="1e+9" velocity="1e+9"/>
    <dynamics damping="2" friction="0"/>
  </joint>
  <link name="l_ankle_1">
    <inertial>
      <mass value="0.3481278951519182"/>
      <origin xyz="-0.0013852125067176195 6.601869600093568e-4 -0.014087432474324535" rpy="0 -0 0"/>
      <inertia ixx="0.01" ixy="0" ixz="0" iyy="0.01" iyz="0" izz="0.01"/>
    </inertial>
    <visual>
      <origin xyz="0 0 0" rpy="0 -0 0"/>
      <geometry>
        <mesh filename="package://ergoCub/meshes/simmechanics/sim_ecub_1-1_l_ankle_1.stl" scale="0.001 0.001 0.001"/>
      </geometry>
      <material name="">
        <color rgba="0.6 0.6 0.6 1"/>
      </material>
    </visual>
    <collision>
      <origin xyz="0 0 0" rpy="0 -0 0"/>
      <geometry>
        <mesh filename="package://ergoCub/meshes/simmechanics/sim_ecub_1-1_l_ankle_1.stl" scale="0.001 0.001 0.001"/>
      </geometry>
      <material name="">
        <color rgba="0.6 0.6 0.6 1"/>
      </material>
    </collision>
  </link>
  <joint name="l_ankle_roll" type="revolute">
    <origin xyz="-0.052750000000000324 -0.01819999999999991 -0.03499999999999959" rpy="3.340196646750626e-19 1.1217589357404033e-14 -2.3665827156630354e-30"/>
    <axis xyz="1 -4.05028482201375e-16 -1.2496691978128869e-15"/>
    <parent link="l_ankle_1"/>
    <child link="l_ankle_2"/>
    <limit lower="-0.4363323129985824" upper="0.4363323129985824" effort="1e+9" velocity="1e+9"/>
    <dynamics damping="2" friction="0"/>
  </joint>
  <link name="l_ankle_2">
    <inertial>
      <mass value="1.5418216247038539"/>
      <origin xyz="0.0405224005088543 -9.790751646740482e-5 -0.02387114353368558" rpy="0 -0 0"/>
      <inertia ixx="0.01" ixy="0" ixz="0" iyy="0.010000000000000002" iyz="0" izz="0.01"/>
    </inertial>
    <visual>
      <origin xyz="0 0 0" rpy="0 -0 0"/>
      <geometry>
        <mesh filename="package://ergoCub/meshes/simmechanics/sim_ecub_1-1_l_ankle_2.stl" scale="0.001 0.001 0.001"/>
      </geometry>
      <material name="">
        <color rgba="1 1 1 1"/>
      </material>
    </visual>
    <collision>
      <origin xyz="0 0 0" rpy="0 -0 0"/>
      <geometry>
        <mesh filename="package://ergoCub/meshes/simmechanics/sim_ecub_1-1_l_ankle_2.stl" scale="0.001 0.001 0.001"/>
      </geometry>
      <material name="">
        <color rgba="1 1 1 1"/>
      </material>
    </collision>
  </link>
  <joint name="l_foot_front_ft_sensor" type="fixed">
    <origin xyz="0.13524999999999998 -5.551115123125783e-17 -0.04789999999999894" rpy="-8.997944700177166e-31 1.9428902930939596e-16 -9.788946385468152e-16"/>
    <parent link="l_ankle_2"/>
    <child link="l_foot_front"/>
  </joint>
  <link name="l_foot_front">
    <inertial>
      <mass value="0.22110467939552797"/>
      <origin xyz="5.879202911245329e-4 -3.747924692820703e-9 -0.02000061661590158" rpy="0 -0 0"/>
      <inertia ixx="0.01" ixy="0" ixz="0" iyy="0.01" iyz="0" izz="0.01"/>
    </inertial>
    <visual>
      <origin xyz="0 0 0" rpy="0 -0 0"/>
      <geometry>
        <mesh filename="package://ergoCub/meshes/simmechanics/sim_ecub_1-1_l_foot_front.stl" scale="0.001 0.001 0.001"/>
      </geometry>
      <material name="">
        <color rgba="1 0.51 0 1"/>
      </material>
    </visual>
    <collision>
      <origin xyz="0 0 -0.0193" rpy="0 -0 0"/>
      <geometry>
        <box size="0.117 0.1 0.006"/>
      </geometry>
    </collision>
  </link>
  <joint name="l_foot_rear_ft_sensor" type="fixed">
    <origin xyz="0.015999999999999986 -4.163336342344337e-17 -0.04789999999999994" rpy="-1.0970096963229695e-30 1.942890293093975e-16 2.0306083615826833e-17"/>
    <parent link="l_ankle_2"/>
    <child link="l_foot_rear"/>
  </joint>
  <link name="l_foot_rear">
    <inertial>
      <mass value="0.22110467939552797"/>
      <origin xyz="5.879202911244826e-4 -3.7479246789429155e-9 -0.020000616615901134" rpy="0 -0 0"/>
      <inertia ixx="0.01" ixy="0" ixz="0" iyy="0.01" iyz="0" izz="0.01"/>
    </inertial>
    <visual>
      <origin xyz="0 0 0" rpy="0 -0 0"/>
      <geometry>
        <mesh filename="package://ergoCub/meshes/simmechanics/sim_ecub_1-1_l_foot_rear.stl" scale="0.001 0.001 0.001"/>
      </geometry>
      <material name="">
        <color rgba="1 0.51 0 1"/>
      </material>
    </visual>
    <collision>
      <origin xyz="0 0 -0.0193" rpy="0 -0 0"/>
      <geometry>
        <box size="0.117 0.1 0.006"/>
      </geometry>
    </collision>
  </link>
  <link name="head_imu_0"/>
  <joint name="head_imu_0_fixed_joint" type="fixed">
    <origin xyz="-0.004299999999999899 -0.005500000000001061 0.03823450000000106" rpy="-3.141592653589788 -9.688477917552238e-15 1.5707963267948986"/>
    <parent link="head"/>
    <child link="head_imu_0"/>
  </joint>
  <link name="realsense_imu_0"/>
  <joint name="realsense_imu_0_fixed_joint" type="fixed">
    <origin xyz="0.007515481871156526 0.010000000000000002 1.7352099479506222e-8" rpy="-1.5707963267948966 3.7596758519972983e-16 -1.5707963267948966"/>
    <parent link="realsense"/>
    <child link="realsense_imu_0"/>
  </joint>
  <link name="l_arm_ft"/>
  <joint name="l_arm_ft_fixed_joint" type="fixed">
    <origin xyz="-0.004349999999999996 -2.7755575615628914e-17 -0.054300000000000015" rpy="3.141592653589793 2.498001805406602e-16 -1.5707963267948952"/>
    <parent link="l_shoulder_2"/>
    <child link="l_arm_ft"/>
  </joint>
  <link name="l_foot_front_ft"/>
  <joint name="l_foot_front_ft_fixed_joint" type="fixed">
    <origin xyz="0.13525 -4.163336342344337e-17 -0.047899999999999054" rpy="-4.259189482954547e-17 -7.513330770412076e-17 -2.0943951023931966"/>
    <parent link="l_ankle_2"/>
    <child link="l_foot_front_ft"/>
  </joint>
  <link name="l_foot_rear_ft"/>
  <joint name="l_foot_rear_ft_fixed_joint" type="fixed">
    <origin xyz="0.015999999999999993 -2.7755575615628914e-17 -0.04789999999999983" rpy="-4.259189482954531e-17 -7.513330770412153e-17 -2.0943951023931957"/>
    <parent link="l_ankle_2"/>
    <child link="l_foot_rear_ft"/>
  </joint>
  <link name="l_leg_ft"/>
  <joint name="l_leg_ft_fixed_joint" type="fixed">
    <origin xyz="0.03669999999999986 -1.3877787807814457e-17 -0.08969999999999997" rpy="-3.1415926535897927 -1.4675346083959194e-15 2.617993877991494"/>
    <parent link="l_hip_2"/>
    <child link="l_leg_ft"/>
  </joint>
  <link name="r_arm_ft"/>
  <joint name="r_arm_ft_fixed_joint" type="fixed">
    <origin xyz="-0.006849999999999986 -2.7755575615628914e-17 -0.05429999999999999" rpy="3.141592653589793 1.6653345369377348e-16 1.5707963267948981"/>
    <parent link="r_shoulder_2"/>
    <child link="r_arm_ft"/>
  </joint>
  <link name="r_foot_front_ft"/>
  <joint name="r_foot_front_ft_fixed_joint" type="fixed">
    <origin xyz="0.13525 1.3877787807814457e-17 -0.04789999999999983" rpy="-4.2591894829555776e-17 -7.513330770412949e-17 -2.094395102393197"/>
    <parent link="r_ankle_2"/>
    <child link="r_foot_front_ft"/>
  </joint>
  <link name="r_foot_rear_ft"/>
  <joint name="r_foot_rear_ft_fixed_joint" type="fixed">
    <origin xyz="0.016 1.3877787807814457e-17 -0.04789999999999994" rpy="-4.2591894829543154e-17 -7.513330770412949e-17 -2.0943951023931966"/>
    <parent link="r_ankle_2"/>
    <child link="r_foot_rear_ft"/>
  </joint>
  <link name="r_leg_ft"/>
  <joint name="r_leg_ft_fixed_joint" type="fixed">
    <origin xyz="0.03669999999999999 0 -0.08969999999999997" rpy="-3.1415926535897927 -8.654368135774127e-16 -2.6179938779914935"/>
    <parent link="r_hip_2"/>
    <child link="r_leg_ft"/>
  </joint>
  <link name="realsense_depth_frame"/>
  <joint name="realsense_depth_frame_fixed_joint" type="fixed">
    <origin xyz="0.007515481871156526 0.010000000000000002 1.7352099479506222e-8" rpy="-1.5707963267948966 3.7596758519972983e-16 -1.5707963267948966"/>
    <parent link="realsense"/>
    <child link="realsense_depth_frame"/>
  </joint>
  <link name="imu_frame"/>
  <joint name="imu_frame_fixed_joint" type="fixed">
    <origin xyz="-0.004299999999999899 -0.005500000000001061 0.03823450000000106" rpy="-3.141592653589788 -9.688477917552238e-15 1.5707963267948986"/>
    <parent link="head"/>
    <child link="imu_frame"/>
  </joint>
  <link name="realsense_rgb_frame"/>
  <joint name="realsense_rgb_frame_fixed_joint" type="fixed">
    <origin xyz="0.007515481871156526 -0.011499999999999996 1.7352099701550827e-8" rpy="-1.5707963267948966 3.7596758519972983e-16 -1.5707963267948966"/>
    <parent link="realsense"/>
    <child link="realsense_rgb_frame"/>
  </joint>
  <link name="head_laser_frame"/>
  <joint name="head_laser_frame_fixed_joint" type="fixed">
    <origin xyz="5.000000000061726e-5 -1.938549701738834e-15 0.13480249990363524" rpy="9.721954681893984e-15 5.33156930061495e-15 3.167605067133685e-15"/>
    <parent link="head"/>
    <child link="head_laser_frame"/>
  </joint>
  <link name="l_hand_index_skin_0"/>
  <joint name="l_hand_index_skin_0_fixed_joint" type="fixed">
    <origin xyz="-1.3877787807814457e-17 -0.002433918058236534 -0.03140545777888892" rpy="-5.286130912234566e-16 1.2225055986691187 -1.570796326794897"/>
    <parent link="l_hand_index_3"/>
    <child link="l_hand_index_skin_0"/>
  </joint>
  <link name="l_hand_index_skin_1"/>
  <joint name="l_hand_index_skin_1_fixed_joint" type="fixed">
    <origin xyz="0.0032999999999999974 -0.0031311476143919548 -0.033280418005286916" rpy="-5.049308804587452e-16 1.2200949024613605 -1.570796326794897"/>
    <parent link="l_hand_index_3"/>
    <child link="l_hand_index_skin_1"/>
  </joint>
  <link name="l_hand_index_skin_10"/>
  <joint name="l_hand_index_skin_10_fixed_joint" type="fixed">
    <origin xyz="-0.003300000000000025 -0.004081940988398508 -0.03776668459795801" rpy="-3.1415926535897913 1.5049109712528748 1.5707963267948997"/>
    <parent link="l_hand_index_3"/>
    <child link="l_hand_index_skin_10"/>
  </joint>
  <link name="l_hand_index_skin_11"/>
  <joint name="l_hand_index_skin_11_fixed_joint" type="fixed">
    <origin xyz="-0.0033000000000000113 -0.0031311476143919548 -0.033280418005286916" rpy="-5.049308804587451e-16 1.2200949024613599 -1.570796326794897"/>
    <parent link="l_hand_index_3"/>
    <child link="l_hand_index_skin_11"/>
  </joint>
  <link name="l_hand_index_skin_2"/>
  <joint name="l_hand_index_skin_2_fixed_joint" type="fixed">
    <origin xyz="-6.938893903907228e-18 -0.003758241653579991 -0.035192049408458936" rpy="-6.620570360759466e-16 1.3056813328515076 -1.5707963267948972"/>
    <parent link="l_hand_index_3"/>
    <child link="l_hand_index_skin_2"/>
  </joint>
  <link name="l_hand_index_skin_3"/>
  <joint name="l_hand_index_skin_3_fixed_joint" type="fixed">
    <origin xyz="0.0032999999999999974 -0.004081940988398425 -0.03776668459795801" rpy="-3.1415926535897913 1.5049109712528748 1.5707963267948997"/>
    <parent link="l_hand_index_3"/>
    <child link="l_hand_index_skin_3"/>
  </joint>
  <link name="l_hand_index_skin_4"/>
  <joint name="l_hand_index_skin_4_fixed_joint" type="fixed">
    <origin xyz="0.005929525942276338 -0.001192320688661208 -0.03799999999999998" rpy="3.1415926535897922 1.2994442229713599 2.7771555423255903"/>
    <parent link="l_hand_index_3"/>
    <child link="l_hand_index_skin_4"/>
  </joint>
  <link name="l_hand_index_skin_5"/>
  <joint name="l_hand_index_skin_5_fixed_joint" type="fixed">
    <origin xyz="1.3877787807814457e-17 -0.0034840921633512434 -0.03982136611863335" rpy="-3.1415926535897927 1.088751329798359 1.5707963267948972"/>
    <parent link="l_hand_index_3"/>
    <child link="l_hand_index_skin_5"/>
  </joint>
  <link name="l_hand_index_skin_6"/>
  <joint name="l_hand_index_skin_6_fixed_joint" type="fixed">
    <origin xyz="0.0032999999999999696 -0.001828801718873424 -0.04176963440415199" rpy="3.141592653589793 0.7788155893137823 2.5320677565812"/>
    <parent link="l_hand_index_3"/>
    <child link="l_hand_index_skin_6"/>
  </joint>
  <link name="l_hand_index_skin_7"/>
  <joint name="l_hand_index_skin_7_fixed_joint" type="fixed">
    <origin xyz="-6.938893903907228e-18 -2.9018466437888413e-4 -0.043259640911881" rpy="-3.141592653589793 0.6209480183022732 1.571212482632116"/>
    <parent link="l_hand_index_3"/>
    <child link="l_hand_index_skin_7"/>
  </joint>
  <link name="l_hand_index_skin_8"/>
  <joint name="l_hand_index_skin_8_fixed_joint" type="fixed">
    <origin xyz="-0.003300000000000025 -0.0018288017188733685 -0.041769634404151934" rpy="-3.1415926535897927 0.7788155893137829 0.6095248970085935"/>
    <parent link="l_hand_index_3"/>
    <child link="l_hand_index_skin_8"/>
  </joint>
  <link name="l_hand_index_skin_9"/>
  <joint name="l_hand_index_skin_9_fixed_joint" type="fixed">
    <origin xyz="-0.005929525942276387 -0.001192320688661208 -0.03799999999999998" rpy="-3.141592653589792 1.2994442229713608 0.36443711126420336"/>
    <parent link="l_hand_index_3"/>
    <child link="l_hand_index_skin_9"/>
  </joint>
  <link name="l_hand_middle_skin_0"/>
  <joint name="l_hand_middle_skin_0_fixed_joint" type="fixed">
    <origin xyz="0 -0.002433918058236506 -0.03140545777888887" rpy="1.626501819149097e-16 1.22250559866912 -1.5707963267948966"/>
    <parent link="l_hand_middle_2"/>
    <child link="l_hand_middle_skin_0"/>
  </joint>
  <link name="l_hand_middle_skin_1"/>
  <joint name="l_hand_middle_skin_1_fixed_joint" type="fixed">
    <origin xyz="0.0033000000000000043 -0.003131147614391927 -0.033280418005286805" rpy="1.615778817467984e-16 1.2200949024613614 -1.5707963267948966"/>
    <parent link="l_hand_middle_2"/>
    <child link="l_hand_middle_skin_1"/>
  </joint>
  <link name="l_hand_middle_skin_10"/>
  <joint name="l_hand_middle_skin_10_fixed_joint" type="fixed">
    <origin xyz="-0.003299999999999973 -0.004081940988398425 -0.037766684597957956" rpy="3.1415926535897922 1.5049109712528765 1.5707963267948972"/>
    <parent link="l_hand_middle_2"/>
    <child link="l_hand_middle_skin_10"/>
  </joint>
  <link name="l_hand_middle_skin_11"/>
  <joint name="l_hand_middle_skin_11_fixed_joint" type="fixed">
    <origin xyz="-0.003299999999999994 -0.0031311476143918715 -0.033280418005286805" rpy="1.615778817467984e-16 1.2200949024613614 -1.5707963267948966"/>
    <parent link="l_hand_middle_2"/>
    <child link="l_hand_middle_skin_11"/>
  </joint>
  <link name="l_hand_middle_skin_2"/>
  <joint name="l_hand_middle_skin_2_fixed_joint" type="fixed">
    <origin xyz="-6.938893903907228e-18 -0.0037582416535799634 -0.035192049408458936" rpy="2.118582515443029e-16 1.305681332851508 -1.5707963267948966"/>
    <parent link="l_hand_middle_2"/>
    <child link="l_hand_middle_skin_2"/>
  </joint>
  <link name="l_hand_middle_skin_3"/>
  <joint name="l_hand_middle_skin_3_fixed_joint" type="fixed">
    <origin xyz="0.0033000000000000113 -0.004081940988398369 -0.03776668459795801" rpy="3.1415926535897922 1.5049109712528765 1.5707963267948968"/>
    <parent link="l_hand_middle_2"/>
    <child link="l_hand_middle_skin_3"/>
  </joint>
  <link name="l_hand_middle_skin_4"/>
  <joint name="l_hand_middle_skin_4_fixed_joint" type="fixed">
    <origin xyz="0.005929525942276356 -0.0011923206886611804 -0.03799999999999998" rpy="3.1415926535897922 1.2994442229713614 2.7771555423255903"/>
    <parent link="l_hand_middle_2"/>
    <child link="l_hand_middle_skin_4"/>
  </joint>
  <link name="l_hand_middle_skin_5"/>
  <joint name="l_hand_middle_skin_5_fixed_joint" type="fixed">
    <origin xyz="1.0408340855860843e-17 -0.0034840921633511046 -0.03982136611863335" rpy="3.141592653589793 1.0887513297983595 1.570796326794897"/>
    <parent link="l_hand_middle_2"/>
    <child link="l_hand_middle_skin_5"/>
  </joint>
  <link name="l_hand_middle_skin_6"/>
  <joint name="l_hand_middle_skin_6_fixed_joint" type="fixed">
    <origin xyz="0.003300000000000008 -0.0018288017188733685 -0.04176963440415188" rpy="3.1415926535897927 0.7788155893137828 2.5320677565811995"/>
    <parent link="l_hand_middle_2"/>
    <child link="l_hand_middle_skin_6"/>
  </joint>
  <link name="l_hand_middle_skin_7"/>
  <joint name="l_hand_middle_skin_7_fixed_joint" type="fixed">
    <origin xyz="-3.469446951953614e-18 -2.9018466437885637e-4 -0.04325964091188095" rpy="3.141592653589793 0.6209480183022731 1.571212482632116"/>
    <parent link="l_hand_middle_2"/>
    <child link="l_hand_middle_skin_7"/>
  </joint>
  <link name="l_hand_middle_skin_8"/>
  <joint name="l_hand_middle_skin_8_fixed_joint" type="fixed">
    <origin xyz="-0.003299999999999994 -0.0018288017188733963 -0.041769634404151934" rpy="-3.141592653589793 0.7788155893137828 0.6095248970085932"/>
    <parent link="l_hand_middle_2"/>
    <child link="l_hand_middle_skin_8"/>
  </joint>
  <link name="l_hand_middle_skin_9"/>
  <joint name="l_hand_middle_skin_9_fixed_joint" type="fixed">
    <origin xyz="-0.0059295259422763695 -0.001192320688661208 -0.03799999999999998" rpy="-3.1415926535897922 1.2994442229713608 0.3644371112642029"/>
    <parent link="l_hand_middle_2"/>
    <child link="l_hand_middle_skin_9"/>
  </joint>
  <link name="l_hand_pinkie_skin_0"/>
  <joint name="l_hand_pinkie_skin_0_fixed_joint" type="fixed">
    <origin xyz="1.1364587082021704e-6 -0.0024339180633243807 -0.03140545776518122" rpy="4.4810406990145916e-5 1.222505598463966 -1.5707618523704918"/>
    <parent link="l_hand_pinkie_2"/>
    <child link="l_hand_pinkie_skin_0"/>
  </joint>
  <link name="l_hand_pinkie_skin_1"/>
  <joint name="l_hand_pinkie_skin_1_fixed_joint" type="fixed">
    <origin xyz="0.003301159802142385 -0.003131172849448638 -0.033280367523160825" rpy="4.451498643578038e-5 1.2200949022586114 -1.5707621667995164"/>
    <parent link="l_hand_pinkie_2"/>
    <child link="l_hand_pinkie_skin_1"/>
  </joint>
  <link name="l_hand_pinkie_skin_10"/>
  <joint name="l_hand_pinkie_skin_10_fixed_joint" type="fixed">
    <origin xyz="-0.003298778855785424 -0.004081915763448796 -0.037766735051979805" rpy="3.14136036390978 1.5049109693635563 1.5705568956520668"/>
    <parent link="l_hand_pinkie_2"/>
    <child link="l_hand_pinkie_skin_10"/>
  </joint>
  <link name="l_hand_pinkie_skin_11"/>
  <joint name="l_hand_pinkie_skin_11_fixed_joint" type="fixed">
    <origin xyz="-0.003298840196892895 -0.0031311223894700813 -0.033280468459722046" rpy="4.4514986435780384e-5 1.2200949022586114 -1.5707621667995162"/>
    <parent link="l_hand_pinkie_2"/>
    <child link="l_hand_pinkie_skin_11"/>
  </joint>
  <link name="l_hand_pinkie_skin_2"/>
  <joint name="l_hand_pinkie_skin_2_fixed_joint" type="fixed">
    <origin xyz="1.1842435866243894e-6 -0.0037582416586290635 -0.0351920493944633" rpy="5.8367315429754e-5 1.305681332537708 -1.570747644146057"/>
    <parent link="l_hand_pinkie_2"/>
    <child link="l_hand_pinkie_skin_2"/>
  </joint>
  <link name="l_hand_pinkie_skin_3"/>
  <joint name="l_hand_pinkie_skin_3_fixed_joint" type="fixed">
    <origin xyz="0.0033012211432498564 -0.00408196622342738 -0.03776663411541853" rpy="3.14136036390978 1.5049109693635563 1.5705568956520668"/>
    <parent link="l_hand_pinkie_2"/>
    <child link="l_hand_pinkie_skin_3"/>
  </joint>
  <link name="l_hand_pinkie_skin_4"/>
  <joint name="l_hand_pinkie_skin_4_fixed_joint" type="fixed">
    <origin xyz="0.005930772745783179 -0.0011923660276871306 -0.037999909302654955" rpy="3.141572315440389 1.2994585118923023 2.7771283028717044"/>
    <parent link="l_hand_pinkie_2"/>
    <child link="l_hand_pinkie_skin_4"/>
  </joint>
  <link name="l_hand_pinkie_skin_5"/>
  <joint name="l_hand_pinkie_skin_5_fixed_joint" type="fixed">
    <origin xyz="1.2571376604118834e-6 -0.003484092168408337 -0.03982136610406428" rpy="3.1415596646367674 1.0887513294579219 1.570759451523612"/>
    <parent link="l_hand_pinkie_2"/>
    <child link="l_hand_pinkie_skin_5"/>
  </joint>
  <link name="l_hand_pinkie_skin_6"/>
  <joint name="l_hand_pinkie_skin_6_fixed_joint" type="fixed">
    <origin xyz="0.0033012995883024976 -0.00182882695396816 -0.04176958392088087" rpy="3.1415803523625088 0.7788281285900823 2.532051470238895"/>
    <parent link="l_hand_pinkie_2"/>
    <child link="l_hand_pinkie_skin_6"/>
  </joint>
  <link name="l_hand_pinkie_skin_7"/>
  <joint name="l_hand_pinkie_skin_7_fixed_joint" type="fixed">
    <origin xyz="1.3341394995113054e-6 -2.901846695293475e-4 -0.04325964089653633" rpy="3.141573850067606 0.6209480244661378 1.571193897169884"/>
    <parent link="l_hand_pinkie_2"/>
    <child link="l_hand_pinkie_skin_7"/>
  </joint>
  <link name="l_hand_pinkie_skin_8"/>
  <joint name="l_hand_pinkie_skin_8_fixed_joint" type="fixed">
    <origin xyz="-0.003298700410732769 -0.0018287764939896034 -0.041769684857442146" rpy="3.1415803529363586 0.7788030498279591 0.6095086111791652"/>
    <parent link="l_hand_pinkie_2"/>
    <child link="l_hand_pinkie_skin_8"/>
  </joint>
  <link name="l_hand_pinkie_skin_9"/>
  <joint name="l_hand_pinkie_skin_9_fixed_joint" type="fixed">
    <origin xyz="-0.005928279137036092 -0.0011922753598834768 -0.0380000906680969" rpy="3.14157231834453 1.2994299338602708 0.36440987468608"/>
    <parent link="l_hand_pinkie_2"/>
    <child link="l_hand_pinkie_skin_9"/>
  </joint>
  <link name="l_hand_ring_skin_0"/>
  <joint name="l_hand_ring_skin_0_fixed_joint" type="fixed">
    <origin xyz="6.938893903907228e-18 -0.0024339180582365616 -0.03140545777888881" rpy="5.692756367021836e-16 1.222505598669119 -1.5707963267948966"/>
    <parent link="l_hand_ring_2"/>
    <child link="l_hand_ring_skin_0"/>
  </joint>
  <link name="l_hand_ring_skin_1"/>
  <joint name="l_hand_ring_skin_1_fixed_joint" type="fixed">
    <origin xyz="0.0033000000000000095 -0.0031311476143919548 -0.033280418005286805" rpy="5.655225861137946e-16 1.2200949024613605 -1.5707963267948966"/>
    <parent link="l_hand_ring_2"/>
    <child link="l_hand_ring_skin_1"/>
  </joint>
  <link name="l_hand_ring_skin_10"/>
  <joint name="l_hand_ring_skin_10_fixed_joint" type="fixed">
    <origin xyz="-0.0033000000000000043 -0.004081940988398369 -0.037766684597957956" rpy="3.141592653589791 1.5049109712528765 1.5707963267948966"/>
    <parent link="l_hand_ring_2"/>
    <child link="l_hand_ring_skin_10"/>
  </joint>
  <link name="l_hand_ring_skin_11"/>
  <joint name="l_hand_ring_skin_11_fixed_joint" type="fixed">
    <origin xyz="-0.0032999999999999887 -0.003131147614391927 -0.03328041800528686" rpy="5.655225861137945e-16 1.2200949024613605 -1.5707963267948966"/>
    <parent link="l_hand_ring_2"/>
    <child link="l_hand_ring_skin_11"/>
  </joint>
  <link name="l_hand_ring_skin_2"/>
  <joint name="l_hand_ring_skin_2_fixed_joint" type="fixed">
    <origin xyz="-5.204170427930421e-18 -0.003758241653579991 -0.03519204940845888" rpy="6.885393175189842e-16 1.305681332851508 -1.5707963267948963"/>
    <parent link="l_hand_ring_2"/>
    <child link="l_hand_ring_skin_2"/>
  </joint>
  <link name="l_hand_ring_skin_3"/>
  <joint name="l_hand_ring_skin_3_fixed_joint" type="fixed">
    <origin xyz="0.003300000000000008 -0.004081940988398397 -0.037766684597957956" rpy="3.141592653589791 1.5049109712528765 1.5707963267948968"/>
    <parent link="l_hand_ring_2"/>
    <child link="l_hand_ring_skin_3"/>
  </joint>
  <link name="l_hand_ring_skin_4"/>
  <joint name="l_hand_ring_skin_4_fixed_joint" type="fixed">
    <origin xyz="0.005929525942276373 -0.0011923206886612359 -0.03799999999999992" rpy="3.141592653589792 1.299444222971361 2.7771555423255903"/>
    <parent link="l_hand_ring_2"/>
    <child link="l_hand_ring_skin_4"/>
  </joint>
  <link name="l_hand_ring_skin_5"/>
  <joint name="l_hand_ring_skin_5_fixed_joint" type="fixed">
    <origin xyz="6.938893903907228e-18 -0.00348409216335116 -0.03982136611863335" rpy="3.1415926535897927 1.088751329798359 1.5707963267948968"/>
    <parent link="l_hand_ring_2"/>
    <child link="l_hand_ring_skin_5"/>
  </joint>
  <link name="l_hand_ring_skin_6"/>
  <joint name="l_hand_ring_skin_6_fixed_joint" type="fixed">
    <origin xyz="0.003299999999999994 -0.0018288017188733685 -0.041769634404151934" rpy="3.1415926535897927 0.7788155893137829 2.5320677565811995"/>
    <parent link="l_hand_ring_2"/>
    <child link="l_hand_ring_skin_6"/>
  </joint>
  <link name="l_hand_ring_skin_7"/>
  <joint name="l_hand_ring_skin_7_fixed_joint" type="fixed">
    <origin xyz="1.9081958235744878e-17 -2.9018466437888413e-4 -0.04325964091188089" rpy="3.141592653589793 0.6209480183022733 1.5712124826321159"/>
    <parent link="l_hand_ring_2"/>
    <child link="l_hand_ring_skin_7"/>
  </joint>
  <link name="l_hand_ring_skin_8"/>
  <joint name="l_hand_ring_skin_8_fixed_joint" type="fixed">
    <origin xyz="-0.0032999999999999852 -0.0018288017188733685 -0.041769634404151934" rpy="-3.141592653589793 0.7788155893137823 0.6095248970085929"/>
    <parent link="l_hand_ring_2"/>
    <child link="l_hand_ring_skin_8"/>
  </joint>
  <link name="l_hand_ring_skin_9"/>
  <joint name="l_hand_ring_skin_9_fixed_joint" type="fixed">
    <origin xyz="-0.005929525942276356 -0.0011923206886611804 -0.03799999999999992" rpy="-3.1415926535897927 1.2994442229713594 0.3644371112642026"/>
    <parent link="l_hand_ring_2"/>
    <child link="l_hand_ring_skin_9"/>
  </joint>
  <link name="l_sole"/>
  <joint name="l_sole_fixed_joint" type="fixed">
    <origin xyz="0.059629999999999996 -1.3877787807814457e-17 -0.024299999999999877" rpy="0 1.5094274020956558e-31 0"/>
    <parent link="l_foot_rear"/>
    <child link="l_sole"/>
  </joint>
  <link name="l_hand_thumb_skin_0"/>
  <joint name="l_hand_thumb_skin_0_fixed_joint" type="fixed">
    <origin xyz="-2.2125551391027898e-11 -0.002433587294553452 -0.026405457778888853" rpy="-1.1609482034540493e-11 -1.2225055986691151 1.5707963268683354"/>
    <parent link="l_hand_thumb_3"/>
    <child link="l_hand_thumb_skin_0"/>
  </joint>
  <link name="l_hand_thumb_skin_1"/>
  <joint name="l_hand_thumb_skin_1_fixed_joint" type="fixed">
    <origin xyz="0.003299999977533996 -0.0031308168507229173 -0.028280418005880898" rpy="3.141592653571252 -0.6108652381980162 -1.570796327023918"/>
    <parent link="l_hand_thumb_3"/>
    <child link="l_hand_thumb_skin_1"/>
  </joint>
  <link name="l_hand_thumb_skin_10"/>
  <joint name="l_hand_thumb_skin_10_fixed_joint" type="fixed">
    <origin xyz="-0.003300000023277627 -0.004081610224701271 -0.03276668459736391" rpy="3.1415926535743104 -1.5049109712528579 -1.5707963267955443"/>
    <parent link="l_hand_thumb_3"/>
    <child link="l_hand_thumb_skin_10"/>
  </joint>
  <link name="l_hand_thumb_skin_11"/>
  <joint name="l_hand_thumb_skin_11_fixed_joint" type="fixed">
    <origin xyz="-0.003300000022465971 -0.0031308168506947176 -0.02828041800469284" rpy="-1.1627790682026587e-11 -1.220094902461357 1.5707963268688572"/>
    <parent link="l_hand_thumb_3"/>
    <child link="l_hand_thumb_skin_11"/>
  </joint>
  <link name="l_hand_thumb_skin_2"/>
  <joint name="l_hand_thumb_skin_2_fixed_joint" type="fixed">
    <origin xyz="-2.2812751687695254e-11 -0.0037579108898968816 -0.030192049408458887" rpy="-1.0975528579504133e-11 -1.305681332851502 1.5707963268508718"/>
    <parent link="l_hand_thumb_3"/>
    <child link="l_hand_thumb_skin_2"/>
  </joint>
  <link name="l_hand_thumb_skin_3"/>
  <joint name="l_hand_thumb_skin_3_fixed_joint" type="fixed">
    <origin xyz="0.0032999999767223676 -0.004081610224729415 -0.03276668459855195" rpy="3.141592653571252 -0.6108652381980161 -1.570796327023918"/>
    <parent link="l_hand_thumb_3"/>
    <child link="l_hand_thumb_skin_3"/>
  </joint>
  <link name="l_hand_thumb_skin_4"/>
  <joint name="l_hand_thumb_skin_4_fixed_joint" type="fixed">
    <origin xyz="0.005929525918969086 -0.0011919899250033839 -0.03300000000106727" rpy="1.570796323948815 -1.507507555817487 -1.5707963239587988"/>
    <parent link="l_hand_thumb_3"/>
    <child link="l_hand_thumb_skin_4"/>
  </joint>
  <link name="l_hand_thumb_skin_5"/>
  <joint name="l_hand_thumb_skin_5_fixed_joint" type="fixed">
    <origin xyz="-2.364491935580304e-11 -0.0034837613996680783 -0.034821366118633304" rpy="3.141592653576766 -1.0887513297983578 -1.57079632687865"/>
    <parent link="l_hand_thumb_3"/>
    <child link="l_hand_thumb_skin_5"/>
  </joint>
  <link name="l_hand_thumb_skin_6"/>
  <joint name="l_hand_thumb_skin_6_fixed_joint" type="fixed">
    <origin xyz="0.0032999999760114918 -0.0018284709552043588 -0.03676963440474591" rpy="-4.620360040236946e-16 -0.7657426237199224 -1.5707963267949006"/>
    <parent link="l_hand_thumb_3"/>
    <child link="l_hand_thumb_skin_6"/>
  </joint>
  <link name="l_hand_thumb_skin_7"/>
  <joint name="l_hand_thumb_skin_7_fixed_joint" type="fixed">
    <origin xyz="-2.4250157437677444e-11 -2.898539006957468e-4 -0.038259640911880916" rpy="-3.1415628662062685 -0.620948017682013 -1.5704313693095489"/>
    <parent link="l_hand_thumb_3"/>
    <child link="l_hand_thumb_skin_7"/>
  </joint>
  <link name="l_hand_thumb_skin_8"/>
  <joint name="l_hand_thumb_skin_8_fixed_joint" type="fixed">
    <origin xyz="-0.0033000000239885308 -0.0018284709551761869 -0.036769634403557905" rpy="3.071469777395219 -0.7763161157147594 -2.432155397543958"/>
    <parent link="l_hand_thumb_3"/>
    <child link="l_hand_thumb_skin_8"/>
  </joint>
  <link name="l_hand_thumb_skin_9"/>
  <joint name="l_hand_thumb_skin_9_fixed_joint" type="fixed">
    <origin xyz="-0.005929525965583604 -0.0011919899249527854 -0.032999999998932564" rpy="2.9258803345668243 -1.2928372761145006 -2.5531132071417293"/>
    <parent link="l_hand_thumb_3"/>
    <child link="l_hand_thumb_skin_9"/>
  </joint>
  <link name="r_hand_index_skin_0"/>
  <joint name="r_hand_index_skin_0_fixed_joint" type="fixed">
    <origin xyz="3.469446951953614e-17 -0.002433928982192385 -0.03140545693228214" rpy="2.8463754567347765e-16 1.2225052508328904 -1.5707963267948963"/>
    <parent link="r_hand_index_3"/>
    <child link="r_hand_index_skin_0"/>
  </joint>
  <link name="r_hand_index_skin_1"/>
  <joint name="r_hand_index_skin_1_fixed_joint" type="fixed">
    <origin xyz="0.0032999999999999974 -0.0031311591905268388 -0.033280416916158295" rpy="2.4236659217065896e-16 1.2200945546251307 -1.5707963267948963"/>
    <parent link="r_hand_index_3"/>
    <child link="r_hand_index_skin_1"/>
  </joint>
  <link name="r_hand_index_skin_10"/>
  <joint name="r_hand_index_skin_10_fixed_joint" type="fixed">
    <origin xyz="-0.0032999999999999696 -0.0040819541250192715 -0.03776668317810877" rpy="3.1415926535897922 1.5049113190891115 1.5707963267948952"/>
    <parent link="r_hand_index_3"/>
    <child link="r_hand_index_skin_10"/>
  </joint>
  <link name="r_hand_index_skin_11"/>
  <joint name="r_hand_index_skin_11_fixed_joint" type="fixed">
    <origin xyz="-0.0033000000000000043 -0.0031311591905267833 -0.033280416916158295" rpy="2.4236659217065896e-16 1.2200945546251307 -1.5707963267948963"/>
    <parent link="r_hand_index_3"/>
    <child link="r_hand_index_skin_11"/>
  </joint>
  <link name="r_hand_index_skin_2"/>
  <joint name="r_hand_index_skin_2_fixed_joint" type="fixed">
    <origin xyz="6.938893903907228e-18 -0.003758253894649538 -0.03519204810120419" rpy="3.177869701880381e-16 1.3056809850152777 -1.5707963267948961"/>
    <parent link="r_hand_index_3"/>
    <child link="r_hand_index_skin_2"/>
  </joint>
  <link name="r_hand_index_skin_3"/>
  <joint name="r_hand_index_skin_3_fixed_joint" type="fixed">
    <origin xyz="0.0033000000000000043 -0.004081954125019299 -0.03776668317810877" rpy="3.1415926535897922 1.5049113190891115 1.5707963267948952"/>
    <parent link="r_hand_index_3"/>
    <child link="r_hand_index_skin_3"/>
  </joint>
  <link name="r_hand_index_skin_4"/>
  <joint name="r_hand_index_skin_4_fixed_joint" type="fixed">
    <origin xyz="0.005929525942276359 -0.0011923339064377758 -0.03799999958526529" rpy="-3.1415914410880514 1.299444346948154 2.777156710461142"/>
    <parent link="r_hand_index_3"/>
    <child link="r_hand_index_skin_4"/>
  </joint>
  <link name="r_hand_index_skin_5"/>
  <joint name="r_hand_index_skin_5_fixed_joint" type="fixed">
    <origin xyz="6.938893903907228e-18 -0.003484106014664784 -0.03982136490673749" rpy="3.141592653589793 1.0887516776345891 1.5707963267948963"/>
    <parent link="r_hand_index_3"/>
    <child link="r_hand_index_skin_5"/>
  </joint>
  <link name="r_hand_index_skin_6"/>
  <joint name="r_hand_index_skin_6_fixed_joint" type="fixed">
    <origin xyz="0.0033000000000000043 -0.0018288162478654058 -0.04176963376802595" rpy="-3.141592252887904 0.7788157884423246 2.5320680380490246"/>
    <parent link="r_hand_index_3"/>
    <child link="r_hand_index_skin_6"/>
  </joint>
  <link name="r_hand_index_skin_7"/>
  <joint name="r_hand_index_skin_7_fixed_joint" type="fixed">
    <origin xyz="-2.7755575615628914e-17 -2.901997116492028e-4 -0.04325964081094158" rpy="-3.1415926534118155 0.6209483661384732 1.5712124827356644"/>
    <parent link="r_hand_index_3"/>
    <child link="r_hand_index_skin_7"/>
  </joint>
  <link name="r_hand_index_skin_8"/>
  <joint name="r_hand_index_skin_8_fixed_joint" type="fixed">
    <origin xyz="-0.0032999999999999835 -0.0018288162478654058 -0.04176963376802595" rpy="3.141592252887904 0.7788157884423246 0.6095246155407682"/>
    <parent link="r_hand_index_3"/>
    <child link="r_hand_index_skin_8"/>
  </joint>
  <link name="r_hand_index_skin_9"/>
  <joint name="r_hand_index_skin_9_fixed_joint" type="fixed">
    <origin xyz="-0.005929525942276352 -0.0011923339064378036 -0.03799999958526534" rpy="3.1415914410880514 1.2994443469481536 0.36443594312865046"/>
    <parent link="r_hand_index_3"/>
    <child link="r_hand_index_skin_9"/>
  </joint>
  <link name="r_hand_middle_skin_0"/>
  <joint name="r_hand_middle_skin_0_fixed_joint" type="fixed">
    <origin xyz="-2.0816681711721685e-17 -0.002433918058236506 -0.03140545777888887" rpy="-2.4397527287236403e-16 1.2225055986691193 -1.570796326794897"/>
    <parent link="r_hand_middle_2"/>
    <child link="r_hand_middle_skin_0"/>
  </joint>
  <link name="r_hand_middle_skin_1"/>
  <joint name="r_hand_middle_skin_1_fixed_joint" type="fixed">
    <origin xyz="0.003299999999999987 -0.0031311476143918993 -0.033280418005286916" rpy="-2.4236682262019717e-16 1.2200949024613599 -1.5707963267948972"/>
    <parent link="r_hand_middle_2"/>
    <child link="r_hand_middle_skin_1"/>
  </joint>
  <link name="r_hand_middle_skin_10"/>
  <joint name="r_hand_middle_skin_10_fixed_joint" type="fixed">
    <origin xyz="-0.0033000000000000113 -0.004081940988398369 -0.03776668459795801" rpy="-3.141592653589792 1.5049109712528799 1.5707963267948983"/>
    <parent link="r_hand_middle_2"/>
    <child link="r_hand_middle_skin_10"/>
  </joint>
  <link name="r_hand_middle_skin_11"/>
  <joint name="r_hand_middle_skin_11_fixed_joint" type="fixed">
    <origin xyz="-0.003300000000000025 -0.0031311476143918715 -0.03328041800528686" rpy="-2.4236682262019727e-16 1.2200949024613594 -1.5707963267948972"/>
    <parent link="r_hand_middle_2"/>
    <child link="r_hand_middle_skin_11"/>
  </joint>
  <link name="r_hand_middle_skin_2"/>
  <joint name="r_hand_middle_skin_2_fixed_joint" type="fixed">
    <origin xyz="-4.5102810375396984e-17 -0.003758241653579991 -0.035192049408458936" rpy="-3.177873773164535e-16 1.3056813328515076 -1.5707963267948972"/>
    <parent link="r_hand_middle_2"/>
    <child link="r_hand_middle_skin_2"/>
  </joint>
  <link name="r_hand_middle_skin_3"/>
  <joint name="r_hand_middle_skin_3_fixed_joint" type="fixed">
    <origin xyz="0.003299999999999942 -0.004081940988398425 -0.03776668459795801" rpy="-3.141592653589792 1.5049109712528799 1.5707963267948986"/>
    <parent link="r_hand_middle_2"/>
    <child link="r_hand_middle_skin_3"/>
  </joint>
  <link name="r_hand_middle_skin_4"/>
  <joint name="r_hand_middle_skin_4_fixed_joint" type="fixed">
    <origin xyz="0.005929525942276321 -0.001192320688661208 -0.03799999999999998" rpy="-3.141592653589792 1.2994442229713614 2.7771555423255876"/>
    <parent link="r_hand_middle_2"/>
    <child link="r_hand_middle_skin_4"/>
  </joint>
  <link name="r_hand_middle_skin_5"/>
  <joint name="r_hand_middle_skin_5_fixed_joint" type="fixed">
    <origin xyz="-2.42861286636753e-17 -0.0034840921633511046 -0.03982136611863335" rpy="-3.141592653589793 1.08875132979836 1.5707963267948968"/>
    <parent link="r_hand_middle_2"/>
    <child link="r_hand_middle_skin_5"/>
  </joint>
  <link name="r_hand_middle_skin_6"/>
  <joint name="r_hand_middle_skin_6_fixed_joint" type="fixed">
    <origin xyz="0.0032999999999999766 -0.0018288017188733963 -0.041769634404151934" rpy="-3.1415926535897927 0.778815589313783 2.532067756581199"/>
    <parent link="r_hand_middle_2"/>
    <child link="r_hand_middle_skin_6"/>
  </joint>
  <link name="r_hand_middle_skin_7"/>
  <joint name="r_hand_middle_skin_7_fixed_joint" type="fixed">
    <origin xyz="-5.204170427930421e-17 -2.9018466437888413e-4 -0.04325964091188089" rpy="-3.141592653589793 0.6209480183022739 1.5712124826321157"/>
    <parent link="r_hand_middle_2"/>
    <child link="r_hand_middle_skin_7"/>
  </joint>
  <link name="r_hand_middle_skin_8"/>
  <joint name="r_hand_middle_skin_8_fixed_joint" type="fixed">
    <origin xyz="-0.0033000000000000217 -0.0018288017188733408 -0.04176963440415199" rpy="3.1415926535897927 0.778815589313783 0.6095248970085936"/>
    <parent link="r_hand_middle_2"/>
    <child link="r_hand_middle_skin_8"/>
  </joint>
  <link name="r_hand_middle_skin_9"/>
  <joint name="r_hand_middle_skin_9_fixed_joint" type="fixed">
    <origin xyz="-0.00592952594227638 -0.0011923206886611526 -0.03799999999999998" rpy="3.141592653589792 1.299444222971361 0.3644371112642049"/>
    <parent link="r_hand_middle_2"/>
    <child link="r_hand_middle_skin_9"/>
  </joint>
  <link name="r_hand_pinkie_skin_0"/>
  <joint name="r_hand_pinkie_skin_0_fixed_joint" type="fixed">
    <origin xyz="0 -0.0024339180582408637 -0.03140545777888881" rpy="2.6430654561173425e-16 1.2225055986691284 -1.5707963267948966"/>
    <parent link="r_hand_pinkie_2"/>
    <child link="r_hand_pinkie_skin_0"/>
  </joint>
  <link name="r_hand_pinkie_skin_1"/>
  <joint name="r_hand_pinkie_skin_1_fixed_joint" type="fixed">
    <origin xyz="0.0033000000000000113 -0.0031311476143962846 -0.03328041800528675" rpy="1.8177511696515236e-16 1.2200949024613699 -1.5707963267948966"/>
    <parent link="r_hand_pinkie_2"/>
    <child link="r_hand_pinkie_skin_1"/>
  </joint>
  <link name="r_hand_pinkie_skin_10"/>
  <joint name="r_hand_pinkie_skin_10_fixed_joint" type="fixed">
    <origin xyz="-0.0032999999999999974 -0.004081940988402782 -0.037766684597957845" rpy="3.1415926535897922 1.5049109712528714 1.5707963267948974"/>
    <parent link="r_hand_pinkie_2"/>
    <child link="r_hand_pinkie_skin_10"/>
  </joint>
  <link name="r_hand_pinkie_skin_11"/>
  <joint name="r_hand_pinkie_skin_11_fixed_joint" type="fixed">
    <origin xyz="-0.0032999999999999904 -0.0031311476143963124 -0.033280418005286805" rpy="1.8177511696515236e-16 1.2200949024613699 -1.5707963267948966"/>
    <parent link="r_hand_pinkie_2"/>
    <child link="r_hand_pinkie_skin_11"/>
  </joint>
  <link name="r_hand_pinkie_skin_2"/>
  <joint name="r_hand_pinkie_skin_2_fixed_joint" type="fixed">
    <origin xyz="0 -0.003758241653584321 -0.03519204940845877" rpy="3.17787377316464e-16 1.3056813328515169 -1.5707963267948966"/>
    <parent link="r_hand_pinkie_2"/>
    <child link="r_hand_pinkie_skin_2"/>
  </joint>
  <link name="r_hand_pinkie_skin_3"/>
  <joint name="r_hand_pinkie_skin_3_fixed_joint" type="fixed">
    <origin xyz="0.003300000000000018 -0.004081940988402699 -0.0377666845979579" rpy="3.1415926535897922 1.5049109712528714 1.5707963267948977"/>
    <parent link="r_hand_pinkie_2"/>
    <child link="r_hand_pinkie_skin_3"/>
  </joint>
  <link name="r_hand_pinkie_skin_4"/>
  <joint name="r_hand_pinkie_skin_4_fixed_joint" type="fixed">
    <origin xyz="0.005929525942276366 -0.0011923206886655102 -0.03799999999999981" rpy="3.1415926535897625 1.2994442229713585 2.777155542325558"/>
    <parent link="r_hand_pinkie_2"/>
    <child link="r_hand_pinkie_skin_4"/>
  </joint>
  <link name="r_hand_pinkie_skin_5"/>
  <joint name="r_hand_pinkie_skin_5_fixed_joint" type="fixed">
    <origin xyz="1.3877787807814457e-17 -0.00348409216335549 -0.03982136611863324" rpy="3.141592653589793 1.0887513297983513 1.5707963267948968"/>
    <parent link="r_hand_pinkie_2"/>
    <child link="r_hand_pinkie_skin_5"/>
  </joint>
  <link name="r_hand_pinkie_skin_6"/>
  <joint name="r_hand_pinkie_skin_6_fixed_joint" type="fixed">
    <origin xyz="0.0033000000000000043 -0.0018288017188776429 -0.04176963440415177" rpy="3.1415926535897833 0.778815589313778 2.532067756581192"/>
    <parent link="r_hand_pinkie_2"/>
    <child link="r_hand_pinkie_skin_6"/>
  </joint>
  <link name="r_hand_pinkie_skin_7"/>
  <joint name="r_hand_pinkie_skin_7_fixed_joint" type="fixed">
    <origin xyz="-6.938893903907228e-18 -2.901846643830752e-4 -0.04325964091188084" rpy="3.141592653589793 0.620948018302265 1.5712124826321159"/>
    <parent link="r_hand_pinkie_2"/>
    <child link="r_hand_pinkie_skin_7"/>
  </joint>
  <link name="r_hand_pinkie_skin_8"/>
  <joint name="r_hand_pinkie_skin_8_fixed_joint" type="fixed">
    <origin xyz="-0.0032999999999999904 -0.0018288017188776429 -0.04176963440415177" rpy="-3.1415926535897833 0.7788155893137778 0.6095248970086008"/>
    <parent link="r_hand_pinkie_2"/>
    <child link="r_hand_pinkie_skin_8"/>
  </joint>
  <link name="r_hand_pinkie_skin_9"/>
  <joint name="r_hand_pinkie_skin_9_fixed_joint" type="fixed">
    <origin xyz="-0.005929525942276352 -0.0011923206886654825 -0.03799999999999981" rpy="-3.141592653589763 1.299444222971359 0.3644371112642355"/>
    <parent link="r_hand_pinkie_2"/>
    <child link="r_hand_pinkie_skin_9"/>
  </joint>
  <link name="r_hand_ring_skin_0"/>
  <joint name="r_hand_ring_skin_0_fixed_joint" type="fixed">
    <origin xyz="3.469446951953614e-18 -0.0024339182743748355 -0.03140545776213821" rpy="1.4231890647798227e-16 1.222505591786931 -1.5707963267948966"/>
    <parent link="r_hand_ring_2"/>
    <child link="r_hand_ring_skin_0"/>
  </joint>
  <link name="r_hand_ring_skin_1"/>
  <joint name="r_hand_ring_skin_1_fixed_joint" type="fixed">
    <origin xyz="0.0032999999999999974 -0.0031311478434340456 -0.03328041798373782" rpy="1.4138064386867392e-16 1.2200948955791715 -1.5707963267948966"/>
    <parent link="r_hand_ring_2"/>
    <child link="r_hand_ring_skin_1"/>
  </joint>
  <link name="r_hand_ring_skin_10"/>
  <joint name="r_hand_ring_skin_10_fixed_joint" type="fixed">
    <origin xyz="-0.0033000000000000113 -0.004081941248315957 -0.03776668456986537" rpy="3.1415926535897927 1.5049109781350702 1.5707963267948977"/>
    <parent link="r_hand_ring_2"/>
    <child link="r_hand_ring_skin_10"/>
  </joint>
  <link name="r_hand_ring_skin_11"/>
  <joint name="r_hand_ring_skin_11_fixed_joint" type="fixed">
    <origin xyz="-0.0033000000000000026 -0.0031311478434340456 -0.033280417983737876" rpy="1.4138064386867392e-16 1.2200948955791715 -1.5707963267948966"/>
    <parent link="r_hand_ring_2"/>
    <child link="r_hand_ring_skin_11"/>
  </joint>
  <link name="r_hand_ring_skin_2"/>
  <joint name="r_hand_ring_skin_2_fixed_joint" type="fixed">
    <origin xyz="1.214306433183765e-17 -0.0037582418957782804 -0.035192049382594015" rpy="1.324114038587985e-16 1.305681325969319 -1.5707963267948966"/>
    <parent link="r_hand_ring_2"/>
    <child link="r_hand_ring_skin_2"/>
  </joint>
  <link name="r_hand_ring_skin_3"/>
  <joint name="r_hand_ring_skin_3_fixed_joint" type="fixed">
    <origin xyz="0.003299999999999987 -0.004081941248315901 -0.03776668456986537" rpy="3.1415926535897927 1.5049109781350702 1.5707963267948974"/>
    <parent link="r_hand_ring_2"/>
    <child link="r_hand_ring_skin_3"/>
  </joint>
  <link name="r_hand_ring_skin_4"/>
  <joint name="r_hand_ring_skin_4_fixed_joint" type="fixed">
    <origin xyz="0.005929525942276352 -0.0011923209501843446 -0.03799999999179421" rpy="-3.1415926295995895 1.2994442254243346 2.777155565437974"/>
    <parent link="r_hand_ring_2"/>
    <child link="r_hand_ring_skin_4"/>
  </joint>
  <link name="r_hand_ring_skin_5"/>
  <joint name="r_hand_ring_skin_5_fixed_joint" type="fixed">
    <origin xyz="-1.214306433183765e-17 -0.0034840924374092974 -0.03982136609465514" rpy="3.141592653589793 1.0887513366805477 1.570796326794897"/>
    <parent link="r_hand_ring_2"/>
    <child link="r_hand_ring_skin_5"/>
  </joint>
  <link name="r_hand_ring_skin_6"/>
  <joint name="r_hand_ring_skin_6_fixed_joint" type="fixed">
    <origin xyz="0.0032999999999999974 -0.0018288020063398913 -0.04176963439156578" rpy="-3.141592645661621 0.7788155932536848 2.53206776215024"/>
    <parent link="r_hand_ring_2"/>
    <child link="r_hand_ring_skin_6"/>
  </joint>
  <link name="r_hand_ring_skin_7"/>
  <joint name="r_hand_ring_skin_7_fixed_joint" type="fixed">
    <origin xyz="3.469446951953614e-18 -2.901849620998431e-4 -0.04325964090988388" rpy="-3.141592653586272 0.6209480251844615 1.5712124826341647"/>
    <parent link="r_hand_ring_2"/>
    <child link="r_hand_ring_skin_7"/>
  </joint>
  <link name="r_hand_ring_skin_8"/>
  <joint name="r_hand_ring_skin_8_fixed_joint" type="fixed">
    <origin xyz="-0.0032999999999999956 -0.0018288020063398913 -0.04176963439156589" rpy="3.141592645661621 0.7788155932536843 0.6095248914395535"/>
    <parent link="r_hand_ring_2"/>
    <child link="r_hand_ring_skin_8"/>
  </joint>
  <link name="r_hand_ring_skin_9"/>
  <joint name="r_hand_ring_skin_9_fixed_joint" type="fixed">
    <origin xyz="-0.0059295259422763695 -0.0011923209501843723 -0.03799999999179421" rpy="3.141592629599589 1.2994442254243332 0.36443708815181947"/>
    <parent link="r_hand_ring_2"/>
    <child link="r_hand_ring_skin_9"/>
  </joint>
  <link name="r_sole"/>
  <joint name="r_sole_fixed_joint" type="fixed">
    <origin xyz="0.05963 -1.3877787807814457e-17 -0.02429999999999999" rpy="0 3.1371750050201436e-30 0"/>
    <parent link="r_foot_rear"/>
    <child link="r_sole"/>
  </joint>
  <link name="r_hand_thumb_skin_0"/>
  <joint name="r_hand_thumb_skin_0_fixed_joint" type="fixed">
    <origin xyz="-5.551115123125783e-17 -0.002433587294553591 -0.026405457778889127" rpy="2.765053092553465e-15 -1.22250559866914 1.5707963267948857"/>
    <parent link="r_hand_thumb_3"/>
    <child link="r_hand_thumb_skin_0"/>
  </joint>
  <link name="r_hand_thumb_skin_1"/>
  <joint name="r_hand_thumb_skin_1_fixed_joint" type="fixed">
    <origin xyz="0.0032999999999999696 -0.0031308168507089285 -0.02828041800528714" rpy="3.1415926535897922 -0.6108652381980179 -1.5707963267949114"/>
    <parent link="r_hand_thumb_3"/>
    <child link="r_hand_thumb_skin_1"/>
  </joint>
  <link name="r_hand_thumb_skin_10"/>
  <joint name="r_hand_thumb_skin_10_fixed_joint" type="fixed">
    <origin xyz="-0.003300000000000053 -0.004081610224715565 -0.032766684597958284" rpy="3.141592653589779 -1.5049109712529725 -1.570796326794926"/>
    <parent link="r_hand_thumb_3"/>
    <child link="r_hand_thumb_skin_10"/>
  </joint>
  <link name="r_hand_thumb_skin_11"/>
  <joint name="r_hand_thumb_skin_11_fixed_joint" type="fixed">
    <origin xyz="-0.003300000000000053 -0.0031308168507090395 -0.02828041800528719" rpy="2.908401871442372e-15 -1.2200949024613812 1.5707963267948855"/>
    <parent link="r_hand_thumb_3"/>
    <child link="r_hand_thumb_skin_11"/>
  </joint>
  <link name="r_hand_thumb_skin_2"/>
  <joint name="r_hand_thumb_skin_2_fixed_joint" type="fixed">
    <origin xyz="0 -0.0037579108898970204 -0.03019204940845916" rpy="3.389732024708853e-15 -1.3056813328515338 1.5707963267948863"/>
    <parent link="r_hand_thumb_3"/>
    <child link="r_hand_thumb_skin_2"/>
  </joint>
  <link name="r_hand_thumb_skin_3"/>
  <joint name="r_hand_thumb_skin_3_fixed_joint" type="fixed">
    <origin xyz="0.0032999999999999974 -0.004081610224715454 -0.032766684597958305" rpy="3.1415926535897922 -0.6108652381980177 -1.5707963267949112"/>
    <parent link="r_hand_thumb_3"/>
    <child link="r_hand_thumb_skin_3"/>
  </joint>
  <link name="r_hand_thumb_skin_4"/>
  <joint name="r_hand_thumb_skin_4_fixed_joint" type="fixed">
    <origin xyz="0.005929525942276387 -0.0011919899249781263 -0.03300000000000026" rpy="1.5707963267948817 -1.507507552842365 -1.5707963267949265"/>
    <parent link="r_hand_thumb_3"/>
    <child link="r_hand_thumb_skin_4"/>
  </joint>
  <link name="r_hand_thumb_skin_5"/>
  <joint name="r_hand_thumb_skin_5_fixed_joint" type="fixed">
    <origin xyz="-5.551115123125783e-17 -0.003483761399668245 -0.034821366118633644" rpy="3.1415926535897913 -1.088751329798369 -1.5707963267949128"/>
    <parent link="r_hand_thumb_3"/>
    <child link="r_hand_thumb_skin_5"/>
  </joint>
  <link name="r_hand_thumb_skin_6"/>
  <joint name="r_hand_thumb_skin_6_fixed_joint" type="fixed">
    <origin xyz="0.0032999999999999974 -0.0018284709551903977 -0.036769634404152235" rpy="-1.3861080081060772e-15 -0.7657426207446857 -1.5707963267949117"/>
    <parent link="r_hand_thumb_3"/>
    <child link="r_hand_thumb_skin_6"/>
  </joint>
  <link name="r_hand_thumb_skin_7"/>
  <joint name="r_hand_thumb_skin_7_fixed_joint" type="fixed">
    <origin xyz="-2.7755575615628914e-17 -2.898539006959133e-4 -0.038259640911881256" rpy="-3.1415628661866624 -0.6209480176820894 -1.570431369087355"/>
    <parent link="r_hand_thumb_3"/>
    <child link="r_hand_thumb_skin_7"/>
  </joint>
  <link name="r_hand_thumb_skin_8"/>
  <joint name="r_hand_thumb_skin_8_fixed_joint" type="fixed">
    <origin xyz="-0.0032999999999999974 -0.0018284709551905087 -0.03676963440415227" rpy="3.071469774250236 -0.7763161153414891 -2.432155392931655"/>
    <parent link="r_hand_thumb_3"/>
    <child link="r_hand_thumb_skin_8"/>
  </joint>
  <link name="r_hand_thumb_skin_9"/>
  <joint name="r_hand_thumb_skin_9_fixed_joint" type="fixed">
    <origin xyz="-0.005929525942276387 -0.0011919899249783206 -0.03300000000000024" rpy="2.9258803249384773 -1.2928372753400146 -2.553113197096302"/>
    <parent link="r_hand_thumb_3"/>
    <child link="r_hand_thumb_skin_9"/>
  </joint>
  <gazebo reference="l_arm_ft_sensor">
    <sensor name="l_arm_ft" type="force_torque">
      <always_on>1</always_on>
      <update_rate>100</update_rate>
      <force_torque>
        <frame>sensor</frame>
        <measure_direction>child_to_parent</measure_direction>
      </force_torque>
      <pose>-3.46945e-18 0 0 3.14159 1.94289e-16 -1.5708 </pose>
      <plugin name="left_arm_ft_plugin" filename="libgazebo_yarp_forcetorque.so">
        <yarpConfigurationFile>model://ergoCub/conf/FT/gazebo_ergocub_left_arm_ft.ini</yarpConfigurationFile>
      </plugin>
    </sensor>
  </gazebo>
  <sensor name="l_arm_ft" type="force_torque">
    <parent joint="l_arm_ft_sensor"/>
    <force_torque>
      <frame>sensor</frame>
      <measure_direction>child_to_parent</measure_direction>
    </force_torque>
    <origin rpy="3.14159 1.94289e-16 -1.5708 " xyz="-3.46945e-18 0 0"/>
  </sensor>
  <gazebo reference="l_foot_front_ft_sensor">
    <sensor name="l_foot_front_ft" type="force_torque">
      <always_on>1</always_on>
      <update_rate>100</update_rate>
      <force_torque>
        <frame>sensor</frame>
        <measure_direction>parent_to_child</measure_direction>
      </force_torque>
      <pose>0 0 0 1.25667e-16 2.20112e-17 -2.0944 </pose>
      <plugin name="left_foot_front_ft_plugin" filename="libgazebo_yarp_forcetorque.so">
        <yarpConfigurationFile>model://ergoCub/conf/FT/gazebo_ergocub_left_foot_front_ft.ini</yarpConfigurationFile>
      </plugin>
    </sensor>
  </gazebo>
  <sensor name="l_foot_front_ft" type="force_torque">
    <parent joint="l_foot_front_ft_sensor"/>
    <force_torque>
      <frame>sensor</frame>
      <measure_direction>parent_to_child</measure_direction>
    </force_torque>
    <origin rpy="1.25667e-16 2.20112e-17 -2.0944 " xyz="0 0 0"/>
  </sensor>
  <gazebo reference="l_foot_rear_ft_sensor">
    <sensor name="l_foot_rear_ft" type="force_torque">
      <always_on>1</always_on>
      <update_rate>100</update_rate>
      <force_torque>
        <frame>sensor</frame>
        <measure_direction>parent_to_child</measure_direction>
      </force_torque>
      <pose>0 0 0 1.25667e-16 2.20112e-17 -2.0944 </pose>
      <plugin name="left_foot_rear_ft_plugin" filename="libgazebo_yarp_forcetorque.so">
        <yarpConfigurationFile>model://ergoCub/conf/FT/gazebo_ergocub_left_foot_rear_ft.ini</yarpConfigurationFile>
      </plugin>
    </sensor>
  </gazebo>
  <sensor name="l_foot_rear_ft" type="force_torque">
    <parent joint="l_foot_rear_ft_sensor"/>
    <force_torque>
      <frame>sensor</frame>
      <measure_direction>parent_to_child</measure_direction>
    </force_torque>
    <origin rpy="1.25667e-16 2.20112e-17 -2.0944 " xyz="0 0 0"/>
  </sensor>
  <gazebo reference="l_leg_ft_sensor">
    <sensor name="l_leg_ft" type="force_torque">
      <always_on>1</always_on>
      <update_rate>100</update_rate>
      <force_torque>
        <frame>sensor</frame>
        <measure_direction>child_to_parent</measure_direction>
      </force_torque>
      <pose>5.20417e-18 0 0 3.14159 -2.02132e-15 2.61799 </pose>
      <plugin name="left_leg_ft_plugin" filename="libgazebo_yarp_forcetorque.so">
        <yarpConfigurationFile>model://ergoCub/conf/FT/gazebo_ergocub_left_leg_ft.ini</yarpConfigurationFile>
      </plugin>
    </sensor>
  </gazebo>
  <sensor name="l_leg_ft" type="force_torque">
    <parent joint="l_leg_ft_sensor"/>
    <force_torque>
      <frame>sensor</frame>
      <measure_direction>child_to_parent</measure_direction>
    </force_torque>
    <origin rpy="3.14159 -2.02132e-15 2.61799 " xyz="5.20417e-18 0 0"/>
  </sensor>
  <gazebo reference="r_arm_ft_sensor">
    <sensor name="r_arm_ft" type="force_torque">
      <always_on>1</always_on>
      <update_rate>100</update_rate>
      <force_torque>
        <frame>sensor</frame>
        <measure_direction>child_to_parent</measure_direction>
      </force_torque>
      <pose>0 0 0 -3.14159 -2.77556e-17 1.5708 </pose>
      <plugin name="right_arm_ft_plugin" filename="libgazebo_yarp_forcetorque.so">
        <yarpConfigurationFile>model://ergoCub/conf/FT/gazebo_ergocub_right_arm_ft.ini</yarpConfigurationFile>
      </plugin>
    </sensor>
  </gazebo>
  <sensor name="r_arm_ft" type="force_torque">
    <parent joint="r_arm_ft_sensor"/>
    <force_torque>
      <frame>sensor</frame>
      <measure_direction>child_to_parent</measure_direction>
    </force_torque>
    <origin rpy="-3.14159 -2.77556e-17 1.5708 " xyz="0 0 0"/>
  </sensor>
  <gazebo reference="r_foot_front_ft_sensor">
    <sensor name="r_foot_front_ft" type="force_torque">
      <always_on>1</always_on>
      <update_rate>100</update_rate>
      <force_torque>
        <frame>sensor</frame>
        <measure_direction>parent_to_child</measure_direction>
      </force_torque>
      <pose>0 1.38778e-17 1.11022e-16 -1.0903e-16 -1.44222e-16 -2.0944 </pose>
      <plugin name="right_foot_front_ft_plugin" filename="libgazebo_yarp_forcetorque.so">
        <yarpConfigurationFile>model://ergoCub/conf/FT/gazebo_ergocub_right_foot_front_ft.ini</yarpConfigurationFile>
      </plugin>
    </sensor>
  </gazebo>
  <sensor name="r_foot_front_ft" type="force_torque">
    <parent joint="r_foot_front_ft_sensor"/>
    <force_torque>
      <frame>sensor</frame>
      <measure_direction>parent_to_child</measure_direction>
    </force_torque>
    <origin rpy="-1.0903e-16 -1.44222e-16 -2.0944 " xyz="0 1.38778e-17 1.11022e-16"/>
  </sensor>
  <gazebo reference="r_foot_rear_ft_sensor">
    <sensor name="r_foot_rear_ft" type="force_torque">
      <always_on>1</always_on>
      <update_rate>100</update_rate>
      <force_torque>
        <frame>sensor</frame>
        <measure_direction>parent_to_child</measure_direction>
      </force_torque>
      <pose>3.46945e-18 0 0 -1.0903e-16 -1.44222e-16 -2.0944 </pose>
      <plugin name="right_foot_rear_ft_plugin" filename="libgazebo_yarp_forcetorque.so">
        <yarpConfigurationFile>model://ergoCub/conf/FT/gazebo_ergocub_right_foot_rear_ft.ini</yarpConfigurationFile>
      </plugin>
    </sensor>
  </gazebo>
  <sensor name="r_foot_rear_ft" type="force_torque">
    <parent joint="r_foot_rear_ft_sensor"/>
    <force_torque>
      <frame>sensor</frame>
      <measure_direction>parent_to_child</measure_direction>
    </force_torque>
    <origin rpy="-1.0903e-16 -1.44222e-16 -2.0944 " xyz="3.46945e-18 0 0"/>
  </sensor>
  <gazebo reference="r_leg_ft_sensor">
    <sensor name="r_leg_ft" type="force_torque">
      <always_on>1</always_on>
      <update_rate>100</update_rate>
      <force_torque>
        <frame>sensor</frame>
        <measure_direction>child_to_parent</measure_direction>
      </force_torque>
      <pose>1.21431e-17 2.77556e-17 5.55112e-17 3.14159 2.98881e-16 -2.61799 </pose>
      <plugin name="right_leg_ft_plugin" filename="libgazebo_yarp_forcetorque.so">
        <yarpConfigurationFile>model://ergoCub/conf/FT/gazebo_ergocub_right_leg_ft.ini</yarpConfigurationFile>
      </plugin>
    </sensor>
  </gazebo>
  <sensor name="r_leg_ft" type="force_torque">
    <parent joint="r_leg_ft_sensor"/>
    <force_torque>
      <frame>sensor</frame>
      <measure_direction>child_to_parent</measure_direction>
    </force_torque>
    <origin rpy="3.14159 2.98881e-16 -2.61799 " xyz="1.21431e-17 2.77556e-17 5.55112e-17"/>
  </sensor>
  <gazebo reference="head">
    <sensor name="head_imu_0" type="imu">
      <always_on>1</always_on>
      <update_rate>100.000000</update_rate>
      <pose>-0.0043 -0.0055 0.0382345 -3.14159 -9.68848e-15 1.5708 </pose>
      <plugin name="ergocub_yarp_gazebo_plugin_IMU" filename="libgazebo_yarp_imu.so">
        <yarpConfigurationFile>model://ergoCub/conf/gazebo_ergocub_inertial.ini</yarpConfigurationFile>
      </plugin>
    </sensor>
  </gazebo>
  <sensor name="head_imu_0" type="accelerometer">
    <parent link="head"/>
    <origin rpy="-3.14159 -9.68848e-15 1.5708 " xyz="-0.0043 -0.0055 0.0382345"/>
  </sensor>
  <gazebo reference="realsense">
    <sensor name="realsense_head_depth" type="depth">
      <always_on>1</always_on>
      <update_rate>30.000000</update_rate>
      <pose>0.00751548 -0.0115 1.73521e-08 -1.5708 3.75968e-16 -1.5708 </pose>
      <camera name="intel_realsense_depth_camera">
        <pose>0 0 0 -1.57079 -1.57079 3.14159</pose>
        <horizontal_fov>1.2217</horizontal_fov>
        <distortion>
          <k1>0</k1>
          <k2>0</k2>
          <k3>0</k3>
          <p1>0</p1>
          <p2>0</p2>
          <center>319.5 239.5</center>
        </distortion>
        <image>
          <width>640</width>
          <height>480</height>
          <format>R8G8B8</format>
        </image>
        <clip>
          <near>0.175</near>
          <far>3000</far>
        </clip>
      </camera>
      <visualize>false</visualize>
      <plugin name="ergocub_yarp_gazebo_plugin_depthCamera" filename="libgazebo_yarp_depthCamera.so">
        <yarpConfigurationFile>model://ergoCub/conf/sensors/gazebo_ergocub_rgbd_camera.ini</yarpConfigurationFile>
      </plugin>
    </sensor>
  </gazebo>
  <sensor name="realsense_head_depth" type="depth">
    <parent link="realsense"/>
    <origin rpy="-1.5708 3.75968e-16 -1.5708 " xyz="0.00751548 -0.0115 1.73521e-08"/>
  </sensor>
  <gazebo reference="realsense">
    <sensor name="realsense_head_rgb" type="camera">
      <always_on>1</always_on>
      <update_rate>30.000000</update_rate>
      <pose>0.00751548 -0.0115 1.73521e-08 -1.5708 3.75968e-16 -1.5708 </pose>
      <camera name="intel_realsense_rgb_camera">
        <pose>0 0 0 -1.57079 -1.57079 3.14159</pose>
        <horizontal_fov>1.2217</horizontal_fov>
        <distortion>
          <k1>0</k1>
          <k2>0</k2>
          <k3>0</k3>
          <p1>0</p1>
          <p2>0</p2>
          <center>319.5 239.5</center>
        </distortion>
        <image>
          <width>640</width>
          <height>480</height>
          <format>R8G8B8</format>
        </image>
        <clip>
          <near>0.02</near>
          <far>3000</far>
        </clip>
      </camera>
      <visualize>false</visualize>
      <plugin name="ergocub_yarp_gazebo_plugin_camera" filename="libgazebo_yarp_camera.so">
        <yarpConfigurationFile>model://ergoCub/conf/gazebo_ergocub_rgb_camera.ini</yarpConfigurationFile>
      </plugin>
    </sensor>
  </gazebo>
  <sensor name="realsense_head_rgb" type="camera">
    <parent link="realsense"/>
    <origin rpy="-1.5708 3.75968e-16 -1.5708 " xyz="0.00751548 -0.0115 1.73521e-08"/>
  </sensor>
  <gazebo reference="realsense">
    <sensor name="realsense_imu_0" type="imu">
      <always_on>1</always_on>
      <update_rate>100.000000</update_rate>
      <pose>0.00751548 0.01 1.73521e-08 -1.5708 3.75968e-16 -1.5708 </pose>
      <plugin name="ergocub_yarp_gazebo_plugin_IMU" filename="libgazebo_yarp_imu.so">
        <yarpConfigurationFile>model://ergoCub/conf/gazebo_ergocub_realsense_inertial.ini</yarpConfigurationFile>
      </plugin>
    </sensor>
  </gazebo>
  <sensor name="realsense_imu_0" type="accelerometer">
    <parent link="realsense"/>
    <origin rpy="-1.5708 3.75968e-16 -1.5708 " xyz="0.00751548 0.01 1.73521e-08"/>
  </sensor>
  <gazebo reference="head">
    <sensor name="lasersensor_head" type="gpu_lidar">
      <always_on>1</always_on>
      <update_rate>100.000000</update_rate>
      <pose>5e-05 -1.93855e-15 0.134802 9.72195e-15 5.33157e-15 3.16761e-15 </pose>
      <always_on>1</always_on>
      <visualize>true</visualize>
      <update_rate>40</update_rate>
      <ray>
        <scan>
          <horizontal>
            <samples>720</samples>
            <resolution>0.5</resolution>
            <min_angle>0</min_angle>
            <max_angle>6.28</max_angle>
          </horizontal>
        </scan>
        <range>
          <min>0.2</min>
          <max>5</max>
          <resolution>0.01</resolution>
        </range>
        <noise>
          <type>gaussian</type>
          <mean>0</mean>
          <stddev>0.005</stddev>
        </noise>
      </ray>
      <plugin name="ergocub_yarp_gazebo_plugin_laser" filename="libgazebo_yarp_lasersensor.so">
        <yarpConfigurationFile>model://ergoCub/conf/sensors/gazebo_ergocub_lidar.ini</yarpConfigurationFile>
      </plugin>
    </sensor>
  </gazebo>
  <sensor name="lasersensor_head" type="gpu_lidar">
    <parent link="head"/>
    <origin rpy="9.72195e-15 5.33157e-15 3.16761e-15 " xyz="5e-05 -1.93855e-15 0.134802"/>
  </sensor>
  <gazebo reference="l_foot_front">
    <sensor name="l_foot_front_ft_imu" type="imu">
      <always_on>1</always_on>
      <update_rate>100.000000</update_rate>
      <pose>0 0 0 1.25667e-16 2.20112e-17 -2.0944 </pose>
      <plugin name="ergocub_yarp_gazebo_plugin_IMU" filename="libgazebo_yarp_imu.so">
        <yarpConfigurationFile>model://ergoCub/conf/gazebo_ergocub_l_foot_front_ft_sensor_inertial.ini</yarpConfigurationFile>
      </plugin>
    </sensor>
  </gazebo>
  <sensor name="l_foot_front_ft_imu" type="accelerometer">
    <parent link="l_foot_front"/>
    <origin rpy="1.25667e-16 2.20112e-17 -2.0944 " xyz="0 0 0"/>
  </sensor>
  <gazebo reference="l_foot_rear">
    <sensor name="l_foot_rear_ft_imu" type="imu">
      <always_on>1</always_on>
      <update_rate>100.000000</update_rate>
      <pose>0 0 0 1.25667e-16 2.20112e-17 -2.0944 </pose>
      <plugin name="ergocub_yarp_gazebo_plugin_IMU" filename="libgazebo_yarp_imu.so">
        <yarpConfigurationFile>model://ergoCub/conf/gazebo_ergocub_l_foot_rear_ft_sensor_inertial.ini</yarpConfigurationFile>
      </plugin>
    </sensor>
  </gazebo>
  <sensor name="l_foot_rear_ft_imu" type="accelerometer">
    <parent link="l_foot_rear"/>
    <origin rpy="1.25667e-16 2.20112e-17 -2.0944 " xyz="0 0 0"/>
  </sensor>
  <gazebo reference="r_foot_front">
    <sensor name="r_foot_front_ft_imu" type="imu">
      <always_on>1</always_on>
      <update_rate>100.000000</update_rate>
      <pose>0 1.38778e-17 1.11022e-16 -1.0903e-16 -1.44222e-16 -2.0944 </pose>
      <plugin name="ergocub_yarp_gazebo_plugin_IMU" filename="libgazebo_yarp_imu.so">
        <yarpConfigurationFile>model://ergoCub/conf/gazebo_ergocub_r_foot_front_ft_sensor_inertial.ini</yarpConfigurationFile>
      </plugin>
    </sensor>
  </gazebo>
  <sensor name="r_foot_front_ft_imu" type="accelerometer">
    <parent link="r_foot_front"/>
    <origin rpy="-1.0903e-16 -1.44222e-16 -2.0944 " xyz="0 1.38778e-17 1.11022e-16"/>
  </sensor>
  <gazebo reference="r_foot_rear">
    <sensor name="r_foot_rear_ft_imu" type="imu">
      <always_on>1</always_on>
      <update_rate>100.000000</update_rate>
      <pose>3.46945e-18 0 0 -1.0903e-16 -1.44222e-16 -2.0944 </pose>
      <plugin name="ergocub_yarp_gazebo_plugin_IMU" filename="libgazebo_yarp_imu.so">
        <yarpConfigurationFile>model://ergoCub/conf/gazebo_ergocub_r_foot_rear_ft_sensor_inertial.ini</yarpConfigurationFile>
      </plugin>
    </sensor>
  </gazebo>
  <sensor name="r_foot_rear_ft_imu" type="accelerometer">
    <parent link="r_foot_rear"/>
    <origin rpy="-1.0903e-16 -1.44222e-16 -2.0944 " xyz="3.46945e-18 0 0"/>
  </sensor>
  <gazebo reference="l_shoulder_3">
    <sensor name="l_arm_ft_imu" type="imu">
      <always_on>1</always_on>
      <update_rate>100.000000</update_rate>
      <pose>-3.46945e-18 0 0 3.14159 1.94289e-16 -1.5708 </pose>
      <plugin name="ergocub_yarp_gazebo_plugin_IMU" filename="libgazebo_yarp_imu.so">
        <yarpConfigurationFile>model://ergoCub/conf/gazebo_ergocub_l_arm_ft_sensor_inertial.ini</yarpConfigurationFile>
      </plugin>
    </sensor>
  </gazebo>
  <sensor name="l_arm_ft_imu" type="accelerometer">
    <parent link="l_shoulder_3"/>
    <origin rpy="3.14159 1.94289e-16 -1.5708 " xyz="-3.46945e-18 0 0"/>
  </sensor>
  <gazebo reference="r_shoulder_3">
    <sensor name="r_arm_ft_imu" type="imu">
      <always_on>1</always_on>
      <update_rate>100.000000</update_rate>
      <pose>0 0 0 -3.14159 -2.77556e-17 1.5708 </pose>
      <plugin name="ergocub_yarp_gazebo_plugin_IMU" filename="libgazebo_yarp_imu.so">
        <yarpConfigurationFile>model://ergoCub/conf/gazebo_ergocub_r_arm_ft_sensor_inertial.ini</yarpConfigurationFile>
      </plugin>
    </sensor>
  </gazebo>
  <sensor name="r_arm_ft_imu" type="accelerometer">
    <parent link="r_shoulder_3"/>
    <origin rpy="-3.14159 -2.77556e-17 1.5708 " xyz="0 0 0"/>
  </sensor>
  <gazebo reference="l_hip_3">
    <sensor name="l_leg_ft_imu" type="imu">
      <always_on>1</always_on>
      <update_rate>100.000000</update_rate>
      <pose>5.20417e-18 0 0 3.14159 -2.02132e-15 2.61799 </pose>
      <plugin name="ergocub_yarp_gazebo_plugin_IMU" filename="libgazebo_yarp_imu.so">
        <yarpConfigurationFile>model://ergoCub/conf/gazebo_ergocub_l_leg_ft_sensor_inertial.ini</yarpConfigurationFile>
      </plugin>
    </sensor>
  </gazebo>
  <sensor name="l_leg_ft_imu" type="accelerometer">
    <parent link="l_hip_3"/>
    <origin rpy="3.14159 -2.02132e-15 2.61799 " xyz="5.20417e-18 0 0"/>
  </sensor>
  <gazebo reference="r_hip_3">
    <sensor name="r_leg_ft_imu" type="imu">
      <always_on>1</always_on>
      <update_rate>100.000000</update_rate>
      <pose>1.21431e-17 2.77556e-17 5.55112e-17 3.14159 2.98881e-16 -2.61799 </pose>
      <plugin name="ergocub_yarp_gazebo_plugin_IMU" filename="libgazebo_yarp_imu.so">
        <yarpConfigurationFile>model://ergoCub/conf/gazebo_ergocub_r_leg_ft_sensor_inertial.ini</yarpConfigurationFile>
      </plugin>
    </sensor>
  </gazebo>
  <sensor name="r_leg_ft_imu" type="accelerometer">
    <parent link="r_hip_3"/>
    <origin rpy="3.14159 2.98881e-16 -2.61799 " xyz="1.21431e-17 2.77556e-17 5.55112e-17"/>
  </sensor>
  <gazebo>
    <plugin name="controlboard_left_hand" filename="libgazebo_yarp_controlboard.so">
      <yarpConfigurationFile>model://ergoCub/conf/gazebo_ergocub_left_hand_mk5_2.ini</yarpConfigurationFile>
      <initialConfiguration>0.0 0.06335 0.0 0.0 0.10036 0.0 0.10036 0.0 0.10036 0.0 0.10036 0.048519</initialConfiguration>
    </plugin>
  </gazebo>
  <gazebo>
    <plugin name="gzyarp::ControlBoard" filename="gz-sim-yarp-controlboard-system">
      <yarpConfigurationFile>model://ergoCub/conf/gazebo_ergocub_left_hand_mk5_2.ini</yarpConfigurationFile>
      <initialConfiguration>0.0 0.06335 0.0 0.0 0.10036 0.0 0.10036 0.0 0.10036 0.0 0.10036 0.048519</initialConfiguration>
    </plugin>
  </gazebo>
  <gazebo>
    <plugin name="controlboard_right_hand" filename="libgazebo_yarp_controlboard.so">
      <yarpConfigurationFile>model://ergoCub/conf/gazebo_ergocub_right_hand_mk5_2.ini</yarpConfigurationFile>
      <initialConfiguration>0.0 0.06335 0.0 0.0 0.10036 0.0 0.10036 0.0 0.10036 0.0 0.10036 0.048519</initialConfiguration>
    </plugin>
  </gazebo>
  <gazebo>
    <plugin name="gzyarp::ControlBoard" filename="gz-sim-yarp-controlboard-system">
      <yarpConfigurationFile>model://ergoCub/conf/gazebo_ergocub_right_hand_mk5_2.ini</yarpConfigurationFile>
      <initialConfiguration>0.0 0.06335 0.0 0.0 0.10036 0.0 0.10036 0.0 0.10036 0.0 0.10036 0.048519</initialConfiguration>
    </plugin>
  </gazebo>
  <link name="waist_imu_0"/>
  <joint name="waist_imu_0_fixed_joint" type="fixed">
    <origin xyz="0.0606 -0.00639428 0.01745" rpy="1.5708 -0.000105208 -1.5708"/>
    <parent link="torso_1"/>
    <child link="waist_imu_0"/>
    <dynamics damping="0.1"/>
  </joint>
  <gazebo>
    <plugin name="ergocub_yarp_gazebo_plugin_IMU" filename="libgazebo_yarp_imu.so">
      <yarpConfigurationFile>model://ergoCub/conf/gazebo_ergocub_waist_inertial.ini</yarpConfigurationFile>
    </plugin>
  </gazebo>
  <gazebo reference="torso_1">
    <sensor name="waist_imu_0" type="imu">
      <always_on>1</always_on>
      <update_rate>100</update_rate>
      <pose>0.0606 -0.00639428 0.01745 1.5708 -0.000105208 -1.5708</pose>
      <plugin name="ergocub_yarp_gazebo_plugin_IMU" filename="libgazebo_yarp_imu.so">
        <yarpConfigurationFile>model://ergoCub/conf/gazebo_ergocub_waist_inertial.ini</yarpConfigurationFile>
      </plugin>
    </sensor>
  </gazebo>
  <gazebo>
    <plugin name="gzyarp::Imu" filename="gz-sim-yarp-imu-system">
      <yarpConfigurationFile>model://ergoCub/conf/gazebo_ergocub_waist_inertial.ini</yarpConfigurationFile>
    </plugin>
  </gazebo>
  <sensor name="waist_imu_0" type="accelerometer">
    <parent link="torso_1"/>
    <origin xyz="0.0606 -0.00639428 0.01745" rpy="1.5708 -0.000105208 -1.5708"/>
  </sensor>
  <link name="base_link"/>
  <joint name="base_link_fixed_joint" type="fixed">
    <origin xyz="0 0 0" rpy="0 -0 0"/>
    <axis xyz="0 0 0"/>
    <parent link="root_link"/>
    <child link="base_link"/>
  </joint>
  <gazebo reference="r_arm_ft_sensor">
    <preserveFixedJoint>true</preserveFixedJoint>
    <!-- For compatibility with SDFormat < 4.4 -->
    <disableFixedJointLumping>true</disableFixedJointLumping>
  </gazebo>
  <gazebo reference="l_arm_ft_sensor">
    <preserveFixedJoint>true</preserveFixedJoint>
    <!-- For compatibility with SDFormat < 4.4 -->
    <disableFixedJointLumping>true</disableFixedJointLumping>
  </gazebo>
  <gazebo>
    <plugin name="gzyarp::ForceTorque" filename="gz-sim-yarp-forcetorque-system">
      <yarpConfigurationFile>model://ergoCub/conf/FT/gazebo_ergocub_left_arm_ft.ini</yarpConfigurationFile>
    </plugin>
  </gazebo>
  <gazebo>
    <plugin name="gzyarp::ForceTorque" filename="gz-sim-yarp-forcetorque-system">
      <yarpConfigurationFile>model://ergoCub/conf/FT/gazebo_ergocub_right_arm_ft.ini</yarpConfigurationFile>
    </plugin>
  </gazebo>
  <gazebo>
    <plugin name="gzyarp::Imu" filename="gz-sim-yarp-imu-system">
      <yarpConfigurationFile>model://ergoCub/conf/gazebo_ergocub_l_arm_ft_sensor_inertial.ini</yarpConfigurationFile>
    </plugin>
  </gazebo>
  <gazebo>
    <plugin name="gzyarp::Imu" filename="gz-sim-yarp-imu-system">
      <yarpConfigurationFile>model://ergoCub/conf/gazebo_ergocub_r_arm_ft_sensor_inertial.ini</yarpConfigurationFile>
    </plugin>
  </gazebo>
  <gazebo>
    <plugin name="controlboard_torso" filename="libgazebo_yarp_controlboard.so">
      <yarpConfigurationFile>model://ergoCub/conf/gazebo_ergocub_torso.ini</yarpConfigurationFile>
    </plugin>
  </gazebo>
  <gazebo>
    <plugin name="gzyarp::ControlBoard" filename="gz-sim-yarp-controlboard-system">
      <yarpConfigurationFile>model://ergoCub/conf/gazebo_ergocub_torso.ini</yarpConfigurationFile>
    </plugin>
  </gazebo>
  <gazebo reference="torso_pitch">
    <implicitSpringDamper>1</implicitSpringDamper>
  </gazebo>
  <gazebo reference="torso_roll">
    <implicitSpringDamper>1</implicitSpringDamper>
  </gazebo>
  <gazebo reference="torso_yaw">
    <implicitSpringDamper>1</implicitSpringDamper>
  </gazebo>
  <gazebo reference="r_shoulder_pitch">
    <implicitSpringDamper>1</implicitSpringDamper>
  </gazebo>
  <gazebo reference="r_shoulder_roll">
    <implicitSpringDamper>1</implicitSpringDamper>
  </gazebo>
  <gazebo reference="r_shoulder_yaw">
    <implicitSpringDamper>1</implicitSpringDamper>
  </gazebo>
  <gazebo reference="l_shoulder_pitch">
    <implicitSpringDamper>1</implicitSpringDamper>
  </gazebo>
  <gazebo reference="l_shoulder_roll">
    <implicitSpringDamper>1</implicitSpringDamper>
  </gazebo>
  <gazebo reference="l_shoulder_yaw">
    <implicitSpringDamper>1</implicitSpringDamper>
  </gazebo>
  <gazebo reference="realsense">
    <sensor name="realsense_head_rgbd" type="rgbd_camera">
      <always_on>1</always_on>
      <update_rate>30.000000</update_rate>
      <pose>0.00751548 -0.0115 1.73521e-08 0 0 0 </pose>
      <camera name="intel_realsense_rgbd_camera">
        <pose>0 0 0 -1.57079 -1.57079 3.14159</pose>
        <horizontal_fov>1.2217</horizontal_fov>
        <distortion>
          <k1>0</k1>
          <k2>0</k2>
          <k3>0</k3>
          <p1>0</p1>
          <p2>0</p2>
          <center>319.5 239.5</center>
        </distortion>
        <image>
          <width>640</width>
          <height>480</height>
          <format>R8G8B8</format>
        </image>
        <clip>
          <near>0.175</near>
          <far>3000</far>
        </clip>
      </camera>
      <visualize>false</visualize>
    </sensor>
  </gazebo>
  <sensor name="realsense_head_rgbd" type="rgbd_camera">
    <parent link="realsense"/>
    <origin rpy="-1.5708 3.75968e-16 -1.5708 " xyz="0.00751548 -0.0115 1.73521e-08"/>
  </sensor>
  <gazebo reference="l_leg_ft_sensor">
    <preserveFixedJoint>true</preserveFixedJoint>
    <!-- For compatibility with SDFormat < 4.4 -->
    <disableFixedJointLumping>true</disableFixedJointLumping>
  </gazebo>
  <gazebo reference="l_foot_front_ft_sensor">
    <preserveFixedJoint>true</preserveFixedJoint>
    <!-- For compatibility with SDFormat < 4.4 -->
    <disableFixedJointLumping>true</disableFixedJointLumping>
  </gazebo>
  <gazebo reference="l_foot_rear_ft_sensor">
    <preserveFixedJoint>true</preserveFixedJoint>
    <!-- For compatibility with SDFormat < 4.4 -->
    <disableFixedJointLumping>true</disableFixedJointLumping>
  </gazebo>
  <gazebo reference="l_foot_front">
    <collision>
      <surface>
        <bounce>
          <restitution_coefficient>0</restitution_coefficient>
          <threshold>100000</threshold>
        </bounce>
      </surface>
    </collision>
    <maxContacts>4</maxContacts>
    <kp>18000000</kp>
    <kd>100</kd>
    <maxVel>100</maxVel>
    <minDepth>0.0001</minDepth>
    <mu1>1</mu1>
    <mu2>1</mu2>
    <fdir1>0 0 0</fdir1>
  </gazebo>
  <gazebo reference="l_foot_rear">
    <collision>
      <surface>
        <bounce>
          <restitution_coefficient>0</restitution_coefficient>
          <threshold>100000</threshold>
        </bounce>
      </surface>
    </collision>
    <maxContacts>4</maxContacts>
    <kp>18000000</kp>
    <kd>100</kd>
    <maxVel>100</maxVel>
    <minDepth>0.0001</minDepth>
    <mu1>1</mu1>
    <mu2>1</mu2>
    <fdir1>0 0 0</fdir1>
  </gazebo>
  <gazebo>
    <plugin name="gzyarp::ForceTorque" filename="gz-sim-yarp-forcetorque-system">
      <yarpConfigurationFile>model://ergoCub/conf/FT/gazebo_ergocub_left_leg_ft.ini</yarpConfigurationFile>
    </plugin>
  </gazebo>
  <gazebo>
    <plugin name="gzyarp::ForceTorque" filename="gz-sim-yarp-forcetorque-system">
      <yarpConfigurationFile>model://ergoCub/conf/FT/gazebo_ergocub_left_foot_front_ft.ini</yarpConfigurationFile>
    </plugin>
  </gazebo>
  <gazebo>
    <plugin name="gzyarp::ForceTorque" filename="gz-sim-yarp-forcetorque-system">
      <yarpConfigurationFile>model://ergoCub/conf/FT/gazebo_ergocub_left_foot_rear_ft.ini</yarpConfigurationFile>
    </plugin>
  </gazebo>
  <gazebo>
    <plugin name="gzyarp::Imu" filename="gz-sim-yarp-imu-system">
      <yarpConfigurationFile>model://ergoCub/conf/gazebo_ergocub_l_foot_front_ft_sensor_inertial.ini</yarpConfigurationFile>
    </plugin>
  </gazebo>
  <gazebo>
    <plugin name="gzyarp::Imu" filename="gz-sim-yarp-imu-system">
      <yarpConfigurationFile>model://ergoCub/conf/gazebo_ergocub_l_foot_rear_ft_sensor_inertial.ini</yarpConfigurationFile>
    </plugin>
  </gazebo>
  <gazebo>
    <plugin name="gzyarp::Imu" filename="gz-sim-yarp-imu-system">
      <yarpConfigurationFile>model://ergoCub/conf/gazebo_ergocub_l_leg_ft_sensor_inertial.ini</yarpConfigurationFile>
    </plugin>
  </gazebo>
  <gazebo>
    <plugin name="controlboard_left_leg" filename="libgazebo_yarp_controlboard.so">
      <yarpConfigurationFile>model://ergoCub/conf/gazebo_ergocub_left_leg.ini</yarpConfigurationFile>
    </plugin>
  </gazebo>
  <gazebo>
    <plugin name="gzyarp::ControlBoard" filename="gz-sim-yarp-controlboard-system">
      <yarpConfigurationFile>model://ergoCub/conf/gazebo_ergocub_left_leg.ini</yarpConfigurationFile>
    </plugin>
  </gazebo>
  <gazebo reference="l_hip_pitch">
    <implicitSpringDamper>1</implicitSpringDamper>
  </gazebo>
  <gazebo reference="l_hip_roll">
    <implicitSpringDamper>1</implicitSpringDamper>
  </gazebo>
  <gazebo reference="l_hip_yaw">
    <implicitSpringDamper>1</implicitSpringDamper>
  </gazebo>
  <gazebo reference="l_knee">
    <implicitSpringDamper>1</implicitSpringDamper>
  </gazebo>
  <gazebo reference="l_ankle_pitch">
    <implicitSpringDamper>1</implicitSpringDamper>
  </gazebo>
  <gazebo reference="l_ankle_roll">
    <implicitSpringDamper>1</implicitSpringDamper>
  </gazebo>
  <gazebo reference="r_leg_ft_sensor">
    <preserveFixedJoint>true</preserveFixedJoint>
    <!-- For compatibility with SDFormat < 4.4 -->
    <disableFixedJointLumping>true</disableFixedJointLumping>
  </gazebo>
  <gazebo reference="r_foot_front_ft_sensor">
    <preserveFixedJoint>true</preserveFixedJoint>
    <!-- For compatibility with SDFormat < 4.4 -->
    <disableFixedJointLumping>true</disableFixedJointLumping>
  </gazebo>
  <gazebo reference="r_foot_rear_ft_sensor">
    <preserveFixedJoint>true</preserveFixedJoint>
    <!-- For compatibility with SDFormat < 4.4 -->
    <disableFixedJointLumping>true</disableFixedJointLumping>
  </gazebo>
  <gazebo reference="r_foot_front">
    <collision>
      <surface>
        <bounce>
          <restitution_coefficient>0</restitution_coefficient>
          <threshold>100000</threshold>
        </bounce>
      </surface>
    </collision>
    <maxContacts>4</maxContacts>
    <kp>18000000</kp>
    <kd>100</kd>
    <maxVel>100</maxVel>
    <minDepth>0.0001</minDepth>
    <mu1>1</mu1>
    <mu2>1</mu2>
    <fdir1>0 0 0</fdir1>
  </gazebo>
  <gazebo reference="r_foot_rear">
    <collision>
      <surface>
        <bounce>
          <restitution_coefficient>0</restitution_coefficient>
          <threshold>100000</threshold>
        </bounce>
      </surface>
    </collision>
    <maxContacts>4</maxContacts>
    <kp>18000000</kp>
    <kd>100</kd>
    <maxVel>100</maxVel>
    <minDepth>0.0001</minDepth>
    <mu1>1</mu1>
    <mu2>1</mu2>
    <fdir1>0 0 0</fdir1>
  </gazebo>
  <gazebo>
    <plugin name="gzyarp::ForceTorque" filename="gz-sim-yarp-forcetorque-system">
      <yarpConfigurationFile>model://ergoCub/conf/FT/gazebo_ergocub_right_leg_ft.ini</yarpConfigurationFile>
    </plugin>
  </gazebo>
  <gazebo>
    <plugin name="gzyarp::ForceTorque" filename="gz-sim-yarp-forcetorque-system">
      <yarpConfigurationFile>model://ergoCub/conf/FT/gazebo_ergocub_right_foot_front_ft.ini</yarpConfigurationFile>
    </plugin>
  </gazebo>
  <gazebo>
    <plugin name="gzyarp::ForceTorque" filename="gz-sim-yarp-forcetorque-system">
      <yarpConfigurationFile>model://ergoCub/conf/FT/gazebo_ergocub_right_foot_rear_ft.ini</yarpConfigurationFile>
    </plugin>
  </gazebo>
  <gazebo>
    <plugin name="gzyarp::Imu" filename="gz-sim-yarp-imu-system">
      <yarpConfigurationFile>model://ergoCub/conf/gazebo_ergocub_r_foot_front_ft_sensor_inertial.ini</yarpConfigurationFile>
    </plugin>
  </gazebo>
  <gazebo>
    <plugin name="gzyarp::Imu" filename="gz-sim-yarp-imu-system">
      <yarpConfigurationFile>model://ergoCub/conf/gazebo_ergocub_r_foot_rear_ft_sensor_inertial.ini</yarpConfigurationFile>
    </plugin>
  </gazebo>
  <gazebo>
    <plugin name="gzyarp::Imu" filename="gz-sim-yarp-imu-system">
      <yarpConfigurationFile>model://ergoCub/conf/gazebo_ergocub_r_leg_ft_sensor_inertial.ini</yarpConfigurationFile>
    </plugin>
  </gazebo>
  <gazebo>
    <plugin name="controlboard_right_leg" filename="libgazebo_yarp_controlboard.so">
      <yarpConfigurationFile>model://ergoCub/conf/gazebo_ergocub_right_leg.ini</yarpConfigurationFile>
    </plugin>
  </gazebo>
  <gazebo>
    <plugin name="gzyarp::ControlBoard" filename="gz-sim-yarp-controlboard-system">
      <yarpConfigurationFile>model://ergoCub/conf/gazebo_ergocub_right_leg.ini</yarpConfigurationFile>
    </plugin>
  </gazebo>
  <gazebo reference="r_hip_pitch">
    <implicitSpringDamper>1</implicitSpringDamper>
  </gazebo>
  <gazebo reference="r_hip_roll">
    <implicitSpringDamper>1</implicitSpringDamper>
  </gazebo>
  <gazebo reference="r_hip_yaw">
    <implicitSpringDamper>1</implicitSpringDamper>
  </gazebo>
  <gazebo reference="r_knee">
    <implicitSpringDamper>1</implicitSpringDamper>
  </gazebo>
  <gazebo reference="r_ankle_pitch">
    <implicitSpringDamper>1</implicitSpringDamper>
  </gazebo>
  <gazebo reference="r_ankle_roll">
    <implicitSpringDamper>1</implicitSpringDamper>
  </gazebo>
  <gazebo>
    <plugin name="gzyarp::Imu" filename="gz-sim-yarp-imu-system">
      <yarpConfigurationFile>model://ergoCub/conf/gazebo_ergocub_inertial.ini</yarpConfigurationFile>
    </plugin>
  </gazebo>
  <gazebo>
    <plugin name="gzyarp::Imu" filename="gz-sim-yarp-imu-system">
      <yarpConfigurationFile>model://ergoCub/conf/gazebo_ergocub_realsense_inertial.ini</yarpConfigurationFile>
    </plugin>
  </gazebo>
  <gazebo>
    <plugin name="gzyarp::Laser" filename="gz-sim-yarp-laser-system">
      <yarpConfigurationFile>model://ergoCub/conf/sensors/gazebo_ergocub_lidar.ini</yarpConfigurationFile>
    </plugin>
  </gazebo>
  <gazebo>
    <plugin name="controlboard_head" filename="libgazebo_yarp_controlboard.so">
      <yarpConfigurationFile>model://ergoCub/conf/gazebo_ergocub_head.ini</yarpConfigurationFile>
    </plugin>
  </gazebo>
  <gazebo>
    <plugin name="gzyarp::DepthCamera" filename="gz-sim-yarp-depthcamera-system">
      <yarpConfigurationFile>model://ergoCub/conf/sensors/gz_sim_ergocub_rgbd_camera.ini</yarpConfigurationFile>
    </plugin>
  </gazebo>
  <gazebo>
    <plugin name="gzyarp::ControlBoard" filename="gz-sim-yarp-controlboard-system">
      <yarpConfigurationFile>model://ergoCub/conf/gazebo_ergocub_head.ini</yarpConfigurationFile>
    </plugin>
  </gazebo>
  <gazebo reference="neck_pitch">
    <implicitSpringDamper>1</implicitSpringDamper>
  </gazebo>
  <gazebo reference="neck_roll">
    <implicitSpringDamper>1</implicitSpringDamper>
  </gazebo>
  <gazebo reference="neck_yaw">
    <implicitSpringDamper>1</implicitSpringDamper>
  </gazebo>
  <gazebo>
    <plugin name="controlboard_left_arm_no_hand" filename="libgazebo_yarp_controlboard.so">
      <yarpConfigurationFile>model://ergoCub/conf/gazebo_ergocub_left_arm_wrist_mk2_1.ini</yarpConfigurationFile>
      <initialConfiguration>-0.52 0.52 0 0.785 0 0 0.0</initialConfiguration>
    </plugin>
  </gazebo>
  <gazebo>
    <plugin name="gzyarp::ControlBoard" filename="gz-sim-yarp-controlboard-system">
      <yarpConfigurationFile>model://ergoCub/conf/gazebo_ergocub_left_arm_wrist_mk2_1.ini</yarpConfigurationFile>
      <initialConfiguration>-0.52 0.52 0 0.785 0 0 0.0</initialConfiguration>
    </plugin>
  </gazebo>
  <gazebo reference="l_shoulder_pitch">
    <implicitSpringDamper>1</implicitSpringDamper>
  </gazebo>
  <gazebo reference="l_shoulder_roll">
    <implicitSpringDamper>1</implicitSpringDamper>
  </gazebo>
  <gazebo reference="l_shoulder_yaw">
    <implicitSpringDamper>1</implicitSpringDamper>
  </gazebo>
  <gazebo reference="l_elbow">
    <implicitSpringDamper>1</implicitSpringDamper>
  </gazebo>
  <gazebo reference="l_wrist_roll">
    <implicitSpringDamper>1</implicitSpringDamper>
  </gazebo>
  <gazebo reference="l_wrist_pitch">
    <implicitSpringDamper>1</implicitSpringDamper>
  </gazebo>
  <gazebo reference="l_wrist_yaw">
    <implicitSpringDamper>1</implicitSpringDamper>
  </gazebo>
  <gazebo>
    <plugin name="controlboard_right_arm_no_hand" filename="libgazebo_yarp_controlboard.so">
      <yarpConfigurationFile>model://ergoCub/conf/gazebo_ergocub_right_arm_wrist_mk2_1.ini</yarpConfigurationFile>
      <initialConfiguration>-0.52 0.52 0 0.785 0 0 0.0</initialConfiguration>
    </plugin>
  </gazebo>
  <gazebo>
    <plugin name="gzyarp::ControlBoard" filename="gz-sim-yarp-controlboard-system">
      <yarpConfigurationFile>model://ergoCub/conf/gazebo_ergocub_right_arm_wrist_mk2_1.ini</yarpConfigurationFile>
      <initialConfiguration>-0.52 0.52 0 0.785 0 0 0.0</initialConfiguration>
    </plugin>
  </gazebo>
  <gazebo reference="r_shoulder_pitch">
    <implicitSpringDamper>1</implicitSpringDamper>
  </gazebo>
  <gazebo reference="r_shoulder_roll">
    <implicitSpringDamper>1</implicitSpringDamper>
  </gazebo>
  <gazebo reference="r_shoulder_yaw">
    <implicitSpringDamper>1</implicitSpringDamper>
  </gazebo>
  <gazebo reference="r_elbow">
    <implicitSpringDamper>1</implicitSpringDamper>
  </gazebo>
  <gazebo reference="r_wrist_roll">
    <implicitSpringDamper>1</implicitSpringDamper>
  </gazebo>
  <gazebo reference="r_wrist_pitch">
    <implicitSpringDamper>1</implicitSpringDamper>
  </gazebo>
  <gazebo reference="r_wrist_yaw">
    <implicitSpringDamper>1</implicitSpringDamper>
  </gazebo>
  <gazebo>
    <plugin name="robotinterface" filename="libgazebo_yarp_robotinterface.so">
      <yarpRobotInterfaceConfigurationFile>model://ergoCub/conf/ergocub.xml</yarpRobotInterfaceConfigurationFile>
    </plugin>
  </gazebo>
  <gazebo>
    <plugin name="gzyarp::RobotInterface" filename="gz-sim-yarp-robotinterface-system">
      <yarpRobotInterfaceConfigurationFile>model://ergoCub/conf/ergocub.xml</yarpRobotInterfaceConfigurationFile>
    </plugin>
  </gazebo>
  <gazebo>
    <pose>0.000000 0.000000 0.800000 0.000000 0.000000 0.000000</pose>
  </gazebo>
</robot>
